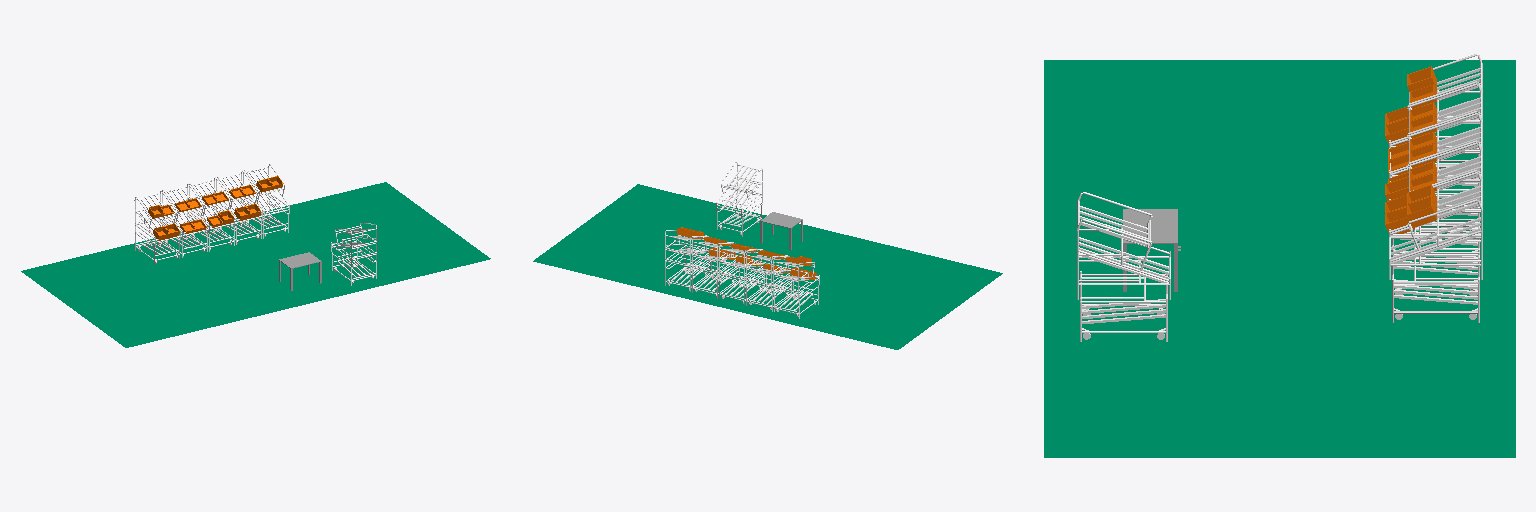
--- What the picture shows (computed from the rendered views, not written in the file) ---
3 views of the same robot in one strip: view 1: azimuth 30°, elevation 25°; view 2: azimuth 150°, elevation 25°; view 3: azimuth 270°, elevation 25° (orthographic).
Model nedo3_demo with 282 links and 281 joints (12 revolute, 269 fixed), rooted at world, posed all joints at 0.
Visible links, largest first — view 1: demo_floor_link, rack_t5, rack_t4, rack_t0; view 2: demo_floor_link, rack_t5, rack_t0; view 3: demo_floor_link, rack_t5, rack_t4, rack_b4, rack_b5, arm_table_top, rack_t3, rack_t1, rack_t2, rack_t0, rack_b3.
Link boxes in pixels (box(x1,y1,x2,y2)): demo_floor_link: box(21, 182, 490, 347); rack_t5: box(331, 223, 376, 266); rack_t4: box(243, 164, 289, 219); rack_t0: box(134, 190, 180, 246); demo_floor_link: box(533, 184, 1002, 349); rack_t5: box(716, 162, 762, 217); rack_t0: box(773, 256, 819, 299); demo_floor_link: box(1044, 60, 1515, 457); rack_t5: box(1077, 192, 1170, 299); rack_t4: box(1389, 172, 1482, 279); rack_b4: box(1392, 252, 1479, 322); rack_b5: box(1080, 271, 1167, 341); arm_table_top: box(1123, 209, 1177, 243); rack_t3: box(1389, 142, 1482, 235); rack_t1: box(1389, 83, 1482, 176); rack_t2: box(1389, 113, 1482, 200); rack_t0: box(1389, 54, 1482, 147); rack_b3: box(1392, 222, 1479, 289).
Bounding box of the posed robot: 12 × 6 × 1.73 m (x, y, z).
Meshes: 15 distinct files referenced, 12 mesh visuals loaded (2 binary STL); not drawn: 17 (reference not matched to a file when rendering).

URDF robot description (nedo3_demo):
<?xml version="1.0" ?>
<!-- =================================================================================== -->
<!-- |    This document was autogenerated by xacro from /root/noetic/catkin_ws/src/nedo3_demo/nedo3_description/urdf/nedo3_demo.urdf.xacro | -->
<!-- |    EDITING THIS FILE BY HAND IS NOT RECOMMENDED                                 | -->
<!-- =================================================================================== -->
<robot name="nedo3_demo">
    <!-- Root frame -->
    <link name="world" />
    <!-- Main workspace -->
    <link name="ground" />
    <joint name="world_ground_joint" type="fixed">
        <parent link="world" />
        <child link="ground" />
        <origin rpy="0 0 0" xyz="-4 0 0" />
    </joint>
    <joint name="demo_floor_joint" type="fixed">
        <parent link="world" />
        <child link="demo_floor_link" />
        <origin rpy="0 0 0" xyz="0 0 -0.001" />
    </joint>
    <link name="demo_floor_link">
        <visual>
            <origin rpy="0 0 0" xyz="0 0 0.0" />
            <geometry>
                <box size="12.0 6.0 0" />
            </geometry>
            <material name="demo_floor">
                <texture filename="package://nedo3_description/media/materials/textures/demo_floor.png" />
            </material>
        </visual>
        <collision>
            <origin rpy="0 0 0" xyz="0 0 0.0" />
            <geometry>
                <box size="12.0 6.0 0" />
            </geometry>
        </collision>
        <!-- <inertial> -->
        <!-- 	<mass value="1.0"/> -->
        <!-- 	<inertia ixx="1.0" ixy="0.0" ixz="0.0" iyy="1.0" iyz="0.0" izz="1.0"/> -->
        <!-- </inertial> -->
        <inertial>
            <mass value="0.1" />
            <origin xyz="0 0 0" rpy="0 0 0" />
            <inertia ixx="0.03" iyy="0.03" izz="0.03" ixy="0.0" ixz="0.0" iyz="0.0" />
        </inertial>
    </link>
    <!-- For Gazebo, material of AR marker is defined in -->
    <!--      aist_gazebo/media/material. You also need to export -->
    <!--      gazebo_media_path in package.xml. -->
    <!-- <gazebo reference="floor_link"> -->
    <!--   <material>Showcase/floor</material> -->
    <!-- </gazebo> -->
    <link name="rack_b0">
        <visual>
            <origin rpy="0 0 0" xyz="0 0.050 0" />
            <geometry>
                <mesh filename="package://nedo3_description/meshes/visual/rack_b.stl" scale="0.001 0.001 0.001" />
            </geometry>
            <material name="white">
                <color rgba="1 1 1 1" />
            </material>
        </visual>
        <collision>
            <origin rpy="0 0 0" xyz="0 0.050 0" />
            <geometry>
                <mesh filename="package://nedo3_description/meshes/collision/rack_b.stl" scale="0.001 0.001 0.001" />
            </geometry>
        </collision>
        <!-- Required for Gazebo -->
        <inertial>
            <mass value="20.0" />
            <origin rpy="0 0 0" xyz="0.425 0.75 0.25" />
            <inertia ixx="0.0" ixy="0.0" ixz="0.0" iyy="0.0" iyz="0.0" izz="0.0" />
        </inertial>
    </link>
    <joint name="rack_b0_joint" type="fixed">
        <parent link="ground" />
        <child link="rack_b0" />
        <origin rpy="0 0 0" xyz="1.5 1.435 0" />
    </joint>
    <link name="rack_b0_lower" />
    <joint name="rack_b0_lower_joint" type="fixed">
        <parent link="rack_b0" />
        <child link="rack_b0_lower" />
        <origin rpy="-0.08726646259971647 0 0" xyz="0.020 0.020 0.294" />
    </joint>
    <gazebo reference="rack_b0">
        <material>Gazebo/White</material>
        <selfCollide>True</selfCollide>
        <plugin name="gazebo_ros_control" filename="libgazebo_ros_control.so">
            <robotNamespace>/</robotNamespace>
        </plugin>
    </gazebo>
    <link name="rack_t0">
        <visual>
            <origin rpy="0 0 0" xyz="0 0 0" />
            <geometry>
                <mesh filename="package://nedo3_description/meshes/visual/rack_t.stl" scale="0.001 0.001 0.001" />
            </geometry>
            <material name="white">
                <color rgba="1 1 1 1" />
            </material>
        </visual>
        <collision>
            <origin rpy="0 0 0" xyz="0 0 0" />
            <geometry>
                <mesh filename="package://nedo3_description/meshes/collision/rack_t.stl" scale="0.001 0.001 0.001" />
            </geometry>
        </collision>
        <!-- Required for Gazebo -->
        <inertial>
            <mass value="20.0" />
            <origin rpy="0 0 0" xyz="0.425 0.75 0.4" />
            <inertia ixx="0.0" ixy="0.0" ixz="0.0" iyy="0.0" iyz="0.0" izz="0.0" />
        </inertial>
    </link>
    <joint name="rack_t0_joint" type="fixed">
        <parent link="rack_b0" />
        <child link="rack_t0" />
        <origin rpy="0 0 0" xyz="0 -0.05 0.595" />
    </joint>
    <link name="rack_t0_lower" />
    <joint name="rack_t0_lower_joint" type="fixed">
        <parent link="rack_t0" />
        <child link="rack_t0_lower" />
        <origin rpy="0.3490658503988659 0 0" xyz="0.020 0.020 0.150" />
    </joint>
    <link name="rack_t0_upper" />
    <joint name="rack_t0_upper_joint" type="fixed">
        <parent link="rack_t0" />
        <child link="rack_t0_upper" />
        <origin rpy="0.3490658503988659 0 0" xyz="0.020 0.300 0.700" />
    </joint>
    <gazebo reference="rack_t0">
        <material>Gazebo/White</material>
        <selfCollide>True</selfCollide>
    </gazebo>
    <link name="rack_b1">
        <visual>
            <origin rpy="0 0 0" xyz="0 0.050 0" />
            <geometry>
                <mesh filename="package://nedo3_description/meshes/visual/rack_b.stl" scale="0.001 0.001 0.001" />
            </geometry>
            <material name="white">
                <color rgba="1 1 1 1" />
            </material>
        </visual>
        <collision>
            <origin rpy="0 0 0" xyz="0 0.050 0" />
            <geometry>
                <mesh filename="package://nedo3_description/meshes/collision/rack_b.stl" scale="0.001 0.001 0.001" />
            </geometry>
        </collision>
        <!-- Required for Gazebo -->
        <inertial>
            <mass value="20.0" />
            <origin rpy="0 0 0" xyz="0.425 0.75 0.25" />
            <inertia ixx="0.0" ixy="0.0" ixz="0.0" iyy="0.0" iyz="0.0" izz="0.0" />
        </inertial>
    </link>
    <joint name="rack_b1_joint" type="fixed">
        <parent link="rack_b0" />
        <child link="rack_b1" />
        <origin rpy="0 0 0" xyz="0.89 0 0" />
    </joint>
    <link name="rack_b1_lower" />
    <joint name="rack_b1_lower_joint" type="fixed">
        <parent link="rack_b1" />
        <child link="rack_b1_lower" />
        <origin rpy="-0.08726646259971647 0 0" xyz="0.020 0.020 0.294" />
    </joint>
    <gazebo reference="rack_b1">
        <material>Gazebo/White</material>
        <selfCollide>True</selfCollide>
    </gazebo>
    <link name="rack_t1">
        <visual>
            <origin rpy="0 0 0" xyz="0 0 0" />
            <geometry>
                <mesh filename="package://nedo3_description/meshes/visual/rack_t.stl" scale="0.001 0.001 0.001" />
            </geometry>
            <material name="white">
                <color rgba="1 1 1 1" />
            </material>
        </visual>
        <collision>
            <origin rpy="0 0 0" xyz="0 0 0" />
            <geometry>
                <mesh filename="package://nedo3_description/meshes/collision/rack_t.stl" scale="0.001 0.001 0.001" />
            </geometry>
        </collision>
        <!-- Required for Gazebo -->
        <inertial>
            <mass value="20.0" />
            <origin rpy="0 0 0" xyz="0.425 0.75 0.4" />
            <inertia ixx="0.0" ixy="0.0" ixz="0.0" iyy="0.0" iyz="0.0" izz="0.0" />
        </inertial>
    </link>
    <joint name="rack_t1_joint" type="fixed">
        <parent link="rack_b1" />
        <child link="rack_t1" />
        <origin rpy="0 0 0" xyz="0 -0.05 0.595" />
    </joint>
    <link name="rack_t1_lower" />
    <joint name="rack_t1_lower_joint" type="fixed">
        <parent link="rack_t1" />
        <child link="rack_t1_lower" />
        <origin rpy="0.3490658503988659 0 0" xyz="0.020 0.020 0.150" />
    </joint>
    <link name="rack_t1_upper" />
    <joint name="rack_t1_upper_joint" type="fixed">
        <parent link="rack_t1" />
        <child link="rack_t1_upper" />
        <origin rpy="0.3490658503988659 0 0" xyz="0.020 0.300 0.700" />
    </joint>
    <gazebo reference="rack_t1">
        <material>Gazebo/White</material>
        <selfCollide>True</selfCollide>
    </gazebo>
    <link name="rack_b2">
        <visual>
            <origin rpy="0 0 0" xyz="0 0.050 0" />
            <geometry>
                <mesh filename="package://nedo3_description/meshes/visual/rack_b.stl" scale="0.001 0.001 0.001" />
            </geometry>
            <material name="white">
                <color rgba="1 1 1 1" />
            </material>
        </visual>
        <collision>
            <origin rpy="0 0 0" xyz="0 0.050 0" />
            <geometry>
                <mesh filename="package://nedo3_description/meshes/collision/rack_b.stl" scale="0.001 0.001 0.001" />
            </geometry>
        </collision>
        <!-- Required for Gazebo -->
        <inertial>
            <mass value="20.0" />
            <origin rpy="0 0 0" xyz="0.425 0.75 0.25" />
            <inertia ixx="0.0" ixy="0.0" ixz="0.0" iyy="0.0" iyz="0.0" izz="0.0" />
        </inertial>
    </link>
    <joint name="rack_b2_joint" type="fixed">
        <parent link="rack_b1" />
        <child link="rack_b2" />
        <origin rpy="0 0 0" xyz="0.89 0 0" />
    </joint>
    <link name="rack_b2_lower" />
    <joint name="rack_b2_lower_joint" type="fixed">
        <parent link="rack_b2" />
        <child link="rack_b2_lower" />
        <origin rpy="-0.08726646259971647 0 0" xyz="0.020 0.020 0.294" />
    </joint>
    <gazebo reference="rack_b2">
        <material>Gazebo/White</material>
        <selfCollide>True</selfCollide>
    </gazebo>
    <link name="rack_t2">
        <visual>
            <origin rpy="0 0 0" xyz="0 0 0" />
            <geometry>
                <mesh filename="package://nedo3_description/meshes/visual/rack_t.stl" scale="0.001 0.001 0.001" />
            </geometry>
            <material name="white">
                <color rgba="1 1 1 1" />
            </material>
        </visual>
        <collision>
            <origin rpy="0 0 0" xyz="0 0 0" />
            <geometry>
                <mesh filename="package://nedo3_description/meshes/collision/rack_t.stl" scale="0.001 0.001 0.001" />
            </geometry>
        </collision>
        <!-- Required for Gazebo -->
        <inertial>
            <mass value="20.0" />
            <origin rpy="0 0 0" xyz="0.425 0.75 0.4" />
            <inertia ixx="0.0" ixy="0.0" ixz="0.0" iyy="0.0" iyz="0.0" izz="0.0" />
        </inertial>
    </link>
    <joint name="rack_t2_joint" type="fixed">
        <parent link="rack_b2" />
        <child link="rack_t2" />
        <origin rpy="0 0 0" xyz="0 -0.05 0.595" />
    </joint>
    <link name="rack_t2_lower" />
    <joint name="rack_t2_lower_joint" type="fixed">
        <parent link="rack_t2" />
        <child link="rack_t2_lower" />
        <origin rpy="0.3490658503988659 0 0" xyz="0.020 0.020 0.150" />
    </joint>
    <link name="rack_t2_upper" />
    <joint name="rack_t2_upper_joint" type="fixed">
        <parent link="rack_t2" />
        <child link="rack_t2_upper" />
        <origin rpy="0.3490658503988659 0 0" xyz="0.020 0.300 0.700" />
    </joint>
    <gazebo reference="rack_t2">
        <material>Gazebo/White</material>
        <selfCollide>True</selfCollide>
    </gazebo>
    <link name="rack_b3">
        <visual>
            <origin rpy="0 0 0" xyz="0 0.050 0" />
            <geometry>
                <mesh filename="package://nedo3_description/meshes/visual/rack_b.stl" scale="0.001 0.001 0.001" />
            </geometry>
            <material name="white">
                <color rgba="1 1 1 1" />
            </material>
        </visual>
        <collision>
            <origin rpy="0 0 0" xyz="0 0.050 0" />
            <geometry>
                <mesh filename="package://nedo3_description/meshes/collision/rack_b.stl" scale="0.001 0.001 0.001" />
            </geometry>
        </collision>
        <!-- Required for Gazebo -->
        <inertial>
            <mass value="20.0" />
            <origin rpy="0 0 0" xyz="0.425 0.75 0.25" />
            <inertia ixx="0.0" ixy="0.0" ixz="0.0" iyy="0.0" iyz="0.0" izz="0.0" />
        </inertial>
    </link>
    <joint name="rack_b3_joint" type="fixed">
        <parent link="rack_b2" />
        <child link="rack_b3" />
        <origin rpy="0 0 0" xyz="0.89 0 0" />
    </joint>
    <link name="rack_b3_lower" />
    <joint name="rack_b3_lower_joint" type="fixed">
        <parent link="rack_b3" />
        <child link="rack_b3_lower" />
        <origin rpy="-0.08726646259971647 0 0" xyz="0.020 0.020 0.294" />
    </joint>
    <gazebo reference="rack_b3">
        <material>Gazebo/White</material>
        <selfCollide>True</selfCollide>
    </gazebo>
    <link name="rack_t3">
        <visual>
            <origin rpy="0 0 0" xyz="0 0 0" />
            <geometry>
                <mesh filename="package://nedo3_description/meshes/visual/rack_t.stl" scale="0.001 0.001 0.001" />
            </geometry>
            <material name="white">
                <color rgba="1 1 1 1" />
            </material>
        </visual>
        <collision>
            <origin rpy="0 0 0" xyz="0 0 0" />
            <geometry>
                <mesh filename="package://nedo3_description/meshes/collision/rack_t.stl" scale="0.001 0.001 0.001" />
            </geometry>
        </collision>
        <!-- Required for Gazebo -->
        <inertial>
            <mass value="20.0" />
            <origin rpy="0 0 0" xyz="0.425 0.75 0.4" />
            <inertia ixx="0.0" ixy="0.0" ixz="0.0" iyy="0.0" iyz="0.0" izz="0.0" />
        </inertial>
    </link>
    <joint name="rack_t3_joint" type="fixed">
        <parent link="rack_b3" />
        <child link="rack_t3" />
        <origin rpy="0 0 0" xyz="0 -0.05 0.595" />
    </joint>
    <link name="rack_t3_lower" />
    <joint name="rack_t3_lower_joint" type="fixed">
        <parent link="rack_t3" />
        <child link="rack_t3_lower" />
        <origin rpy="0.3490658503988659 0 0" xyz="0.020 0.020 0.150" />
    </joint>
    <link name="rack_t3_upper" />
    <joint name="rack_t3_upper_joint" type="fixed">
        <parent link="rack_t3" />
        <child link="rack_t3_upper" />
        <origin rpy="0.3490658503988659 0 0" xyz="0.020 0.300 0.700" />
    </joint>
    <gazebo reference="rack_t3">
        <material>Gazebo/White</material>
        <selfCollide>True</selfCollide>
    </gazebo>
    <link name="rack_b4">
        <visual>
            <origin rpy="0 0 0" xyz="0 0.050 0" />
            <geometry>
                <mesh filename="package://nedo3_description/meshes/visual/rack_b.stl" scale="0.001 0.001 0.001" />
            </geometry>
            <material name="white">
                <color rgba="1 1 1 1" />
            </material>
        </visual>
        <collision>
            <origin rpy="0 0 0" xyz="0 0.050 0" />
            <geometry>
                <mesh filename="package://nedo3_description/meshes/collision/rack_b.stl" scale="0.001 0.001 0.001" />
            </geometry>
        </collision>
        <!-- Required for Gazebo -->
        <inertial>
            <mass value="20.0" />
            <origin rpy="0 0 0" xyz="0.425 0.75 0.25" />
            <inertia ixx="0.0" ixy="0.0" ixz="0.0" iyy="0.0" iyz="0.0" izz="0.0" />
        </inertial>
    </link>
    <joint name="rack_b4_joint" type="fixed">
        <parent link="rack_b3" />
        <child link="rack_b4" />
        <origin rpy="0 0 0" xyz="0.89 0 0" />
    </joint>
    <link name="rack_b4_lower" />
    <joint name="rack_b4_lower_joint" type="fixed">
        <parent link="rack_b4" />
        <child link="rack_b4_lower" />
        <origin rpy="-0.08726646259971647 0 0" xyz="0.020 0.020 0.294" />
    </joint>
    <gazebo reference="rack_b4">
        <material>Gazebo/White</material>
        <selfCollide>True</selfCollide>
    </gazebo>
    <link name="rack_t4">
        <visual>
            <origin rpy="0 0 0" xyz="0 0 0" />
            <geometry>
                <mesh filename="package://nedo3_description/meshes/visual/rack_t.stl" scale="0.001 0.001 0.001" />
            </geometry>
            <material name="white">
                <color rgba="1 1 1 1" />
            </material>
        </visual>
        <collision>
            <origin rpy="0 0 0" xyz="0 0 0" />
            <geometry>
                <mesh filename="package://nedo3_description/meshes/collision/rack_t.stl" scale="0.001 0.001 0.001" />
            </geometry>
        </collision>
        <!-- Required for Gazebo -->
        <inertial>
            <mass value="20.0" />
            <origin rpy="0 0 0" xyz="0.425 0.75 0.4" />
            <inertia ixx="0.0" ixy="0.0" ixz="0.0" iyy="0.0" iyz="0.0" izz="0.0" />
        </inertial>
    </link>
    <joint name="rack_t4_joint" type="fixed">
        <parent link="rack_b4" />
        <child link="rack_t4" />
        <origin rpy="0 0 0" xyz="0 -0.05 0.595" />
    </joint>
    <link name="rack_t4_lower" />
    <joint name="rack_t4_lower_joint" type="fixed">
        <parent link="rack_t4" />
        <child link="rack_t4_lower" />
        <origin rpy="0.3490658503988659 0 0" xyz="0.020 0.020 0.150" />
    </joint>
    <link name="rack_t4_upper" />
    <joint name="rack_t4_upper_joint" type="fixed">
        <parent link="rack_t4" />
        <child link="rack_t4_upper" />
        <origin rpy="0.3490658503988659 0 0" xyz="0.020 0.300 0.700" />
    </joint>
    <gazebo reference="rack_t4">
        <material>Gazebo/White</material>
        <selfCollide>True</selfCollide>
    </gazebo>
    <link name="rack_b5">
        <visual>
            <origin rpy="0 0 0" xyz="0 0.050 0" />
            <geometry>
                <mesh filename="package://nedo3_description/meshes/visual/rack_b.stl" scale="0.001 0.001 0.001" />
            </geometry>
            <material name="white">
                <color rgba="1 1 1 1" />
            </material>
        </visual>
        <collision>
            <origin rpy="0 0 0" xyz="0 0.050 0" />
            <geometry>
                <mesh filename="package://nedo3_description/meshes/collision/rack_b.stl" scale="0.001 0.001 0.001" />
            </geometry>
        </collision>
        <!-- Required for Gazebo -->
        <inertial>
            <mass value="20.0" />
            <origin rpy="0 0 0" xyz="0.425 0.75 0.25" />
            <inertia ixx="0.0" ixy="0.0" ixz="0.0" iyy="0.0" iyz="0.0" izz="0.0" />
        </inertial>
    </link>
    <joint name="rack_b5_joint" type="fixed">
        <parent link="ground" />
        <child link="rack_b5" />
        <origin rpy="0 0 3.141592653589793" xyz="6.5 -1.435 0" />
    </joint>
    <link name="rack_b5_lower" />
    <joint name="rack_b5_lower_joint" type="fixed">
        <parent link="rack_b5" />
        <child link="rack_b5_lower" />
        <origin rpy="-0.08726646259971647 0 0" xyz="0.020 0.020 0.294" />
    </joint>
    <gazebo reference="rack_b5">
        <material>Gazebo/White</material>
        <selfCollide>True</selfCollide>
    </gazebo>
    <link name="rack_t5">
        <visual>
            <origin rpy="0 0 0" xyz="0 0 0" />
            <geometry>
                <mesh filename="package://nedo3_description/meshes/visual/rack_t.stl" scale="0.001 0.001 0.001" />
            </geometry>
            <material name="white">
                <color rgba="1 1 1 1" />
            </material>
        </visual>
        <collision>
            <origin rpy="0 0 0" xyz="0 0 0" />
            <geometry>
                <mesh filename="package://nedo3_description/meshes/collision/rack_t.stl" scale="0.001 0.001 0.001" />
            </geometry>
        </collision>
        <!-- Required for Gazebo -->
        <inertial>
            <mass value="20.0" />
            <origin rpy="0 0 0" xyz="0.425 0.75 0.4" />
            <inertia ixx="0.0" ixy="0.0" ixz="0.0" iyy="0.0" iyz="0.0" izz="0.0" />
        </inertial>
    </link>
    <joint name="rack_t5_joint" type="fixed">
        <parent link="rack_b5" />
        <child link="rack_t5" />
        <origin rpy="0 0 0" xyz="0 -0.05 0.595" />
    </joint>
    <link name="rack_t5_lower" />
    <joint name="rack_t5_lower_joint" type="fixed">
        <parent link="rack_t5" />
        <child link="rack_t5_lower" />
        <origin rpy="0.3490658503988659 0 0" xyz="0.020 0.020 0.150" />
    </joint>
    <link name="rack_t5_upper" />
    <joint name="rack_t5_upper_joint" type="fixed">
        <parent link="rack_t5" />
        <child link="rack_t5_upper" />
        <origin rpy="0.3490658503988659 0 0" xyz="0.020 0.300 0.700" />
    </joint>
    <gazebo reference="rack_t5">
        <material>Gazebo/White</material>
        <selfCollide>True</selfCollide>
    </gazebo>
    <link name="box_20">
        <!-- w is in x, l is in y, h is in z -->
        <visual>
            <origin rpy="0 0 0" xyz="0.1675 0.1675 0.0065" />
            <geometry>
                <box size="0.335 0.335 0.013" />
            </geometry>
            <material name="orange">
                <color rgba="1 0.5088 0.0468 1" />
            </material>
        </visual>
        <collision>
            <origin rpy="0 0 0" xyz="0.1675 0.1675 0.0065" />
            <geometry>
                <box size="0.335 0.335 0.013" />
            </geometry>
        </collision>
        <!-- This is required for Gazebo. -->
        <inertial>
            <mass value="1.0" />
            <origin rpy="0 0 0" xyz="0.1675 0.335 0.0065" />
            <inertia ixx="0.0" ixy="0.0" ixz="0.0" iyy="0.0" iyz="0.0" izz="0.0" />
        </inertial>
    </link>
    <gazebo reference="box_20">
        <material>Gazebo/Orange</material>
    </gazebo>
    <joint name="box_20" type="fixed">
        <parent link="rack_t4_upper" />
        <child link="box_20" />
        <axis xyz="0 0 1" />
        <origin rpy="0 0 0" xyz="0.08499999999999996 0 0" />
    </joint>
    <link name="box_20_frontside">
        <!-- w is in x, l is in y, h is in z -->
        <visual>
            <origin rpy="0 0 0" xyz="0.1675 0.0085 0.091" />
            <geometry>
                <box size="0.335 0.017 0.182" />
            </geometry>
            <material name="orange">
                <color rgba="1 0.5088 0.0468 1" />
            </material>
        </visual>
        <collision>
            <origin rpy="0 0 0" xyz="0.1675 0.0085 0.091" />
            <geometry>
                <box size="0.335 0.017 0.182" />
            </geometry>
        </collision>
        <!-- This is required for Gazebo. -->
        <inertial>
            <mass value="1.0" />
            <origin rpy="0 0 0" xyz="0.1675 0.017 0.091" />
            <inertia ixx="0.0" ixy="0.0" ixz="0.0" iyy="0.0" iyz="0.0" izz="0.0" />
        </inertial>
    </link>
    <gazebo reference="box_20_frontside">
        <material>Gazebo/Orange</material>
    </gazebo>
    <joint name="box_20_frontside" type="fixed">
        <parent link="box_20" />
        <child link="box_20_frontside" />
        <axis xyz="0 0 1" />
        <origin rpy="0 0 0" xyz="0 0 0.013" />
    </joint>
    <link name="box_20_backside">
        <!-- w is in x, l is in y, h is in z -->
        <visual>
            <origin rpy="0 0 0" xyz="0.1675 0.0085 0.091" />
            <geometry>
                <box size="0.335 0.017 0.182" />
            </geometry>
            <material name="orange">
                <color rgba="1 0.5088 0.0468 1" />
            </material>
        </visual>
        <collision>
            <origin rpy="0 0 0" xyz="0.1675 0.0085 0.091" />
            <geometry>
                <box size="0.335 0.017 0.182" />
            </geometry>
        </collision>
        <!-- This is required for Gazebo. -->
        <inertial>
            <mass value="1.0" />
            <origin rpy="0 0 0" xyz="0.1675 0.017 0.091" />
            <inertia ixx="0.0" ixy="0.0" ixz="0.0" iyy="0.0" iyz="0.0" izz="0.0" />
        </inertial>
    </link>
    <gazebo reference="box_20_backside">
        <material>Gazebo/Orange</material>
    </gazebo>
    <joint name="box_20_backside" type="fixed">
        <parent link="box_20" />
        <child link="box_20_backside" />
        <axis xyz="0 0 1" />
        <origin rpy="0 0 0" xyz="0 0.318 0.013" />
    </joint>
    <link name="box_20_leftside">
        <!-- w is in x, l is in y, h is in z -->
        <visual>
            <origin rpy="0 0 0" xyz="0.0085 0.15050000000000002 0.091" />
            <geometry>
                <box size="0.017 0.30100000000000005 0.182" />
            </geometry>
            <material name="orange">
                <color rgba="1 0.5088 0.0468 1" />
            </material>
        </visual>
        <collision>
            <origin rpy="0 0 0" xyz="0.0085 0.15050000000000002 0.091" />
            <geometry>
                <box size="0.017 0.30100000000000005 0.182" />
            </geometry>
        </collision>
        <!-- This is required for Gazebo. -->
        <inertial>
            <mass value="1.0" />
            <origin rpy="0 0 0" xyz="0.0085 0.30100000000000005 0.091" />
            <inertia ixx="0.0" ixy="0.0" ixz="0.0" iyy="0.0" iyz="0.0" izz="0.0" />
        </inertial>
    </link>
    <gazebo reference="box_20_leftside">
        <material>Gazebo/Orange</material>
    </gazebo>
    <joint name="box_20_leftside" type="fixed">
        <parent link="box_20" />
        <child link="box_20_leftside" />
        <axis xyz="0 0 1" />
        <origin rpy="0 0 0" xyz="0 0.017  0.013" />
    </joint>
    <link name="box_20_rightside">
        <!-- w is in x, l is in y, h is in z -->
        <visual>
            <origin rpy="0 0 0" xyz="0.0085 0.15050000000000002 0.091" />
            <geometry>
                <box size="0.017 0.30100000000000005 0.182" />
            </geometry>
            <material name="orange">
                <color rgba="1 0.5088 0.0468 1" />
            </material>
        </visual>
        <collision>
            <origin rpy="0 0 0" xyz="0.0085 0.15050000000000002 0.091" />
            <geometry>
                <box size="0.017 0.30100000000000005 0.182" />
            </geometry>
        </collision>
        <!-- This is required for Gazebo. -->
        <inertial>
            <mass value="1.0" />
            <origin rpy="0 0 0" xyz="0.0085 0.30100000000000005 0.091" />
            <inertia ixx="0.0" ixy="0.0" ixz="0.0" iyy="0.0" iyz="0.0" izz="0.0" />
        </inertial>
    </link>
    <gazebo reference="box_20_rightside">
        <material>Gazebo/Orange</material>
    </gazebo>
    <joint name="box_20_rightside" type="fixed">
        <parent link="box_20" />
        <child link="box_20_rightside" />
        <axis xyz="0 0 1" />
        <origin rpy="0 0 0" xyz="0.318      0.017      0.013" />
    </joint>
    <link name="box_20_bottom" />
    <joint name="box_20_bottom_joint" type="fixed">
        <parent link="box_20" />
        <child link="box_20_bottom" />
        <origin rpy="0 0 0" xyz="0.017 0.017 0.013" />
    </joint>
    <link name="box_20_center_bottom" />
    <joint name="box_20_center_bottom_joint" type="fixed">
        <parent link="box_20" />
        <child link="box_20_center_bottom" />
        <origin rpy="0 0 0" xyz="0.1675 0.1675 0.013" />
    </joint>
    <link name="box_20_lower_left_top" />
    <joint name="box_20_lower_left_top_joint" type="fixed">
        <parent link="box_20" />
        <child link="box_20_lower_left_top" />
        <origin rpy="0 0 0" xyz="0 0 0.195" />
    </joint>
    <link name="box_20_lower_right_top" />
    <joint name="box_20_lower_right_top_joint" type="fixed">
        <parent link="box_20" />
        <child link="box_20_lower_right_top" />
        <origin rpy="0 0 0" xyz="0.335 0 0.195" />
    </joint>
    <link name="box_20_upper_left_top" />
    <joint name="box_20_upper_left_top_joint" type="fixed">
        <parent link="box_20" />
        <child link="box_20_upper_left_top" />
        <origin rpy="0 0 0" xyz="0 0.335 0.195" />
    </joint>
    <link name="box_20_upper_right_top" />
    <joint name="box_20_upper_right_top_joint" type="fixed">
        <parent link="box_20" />
        <child link="box_20_upper_right_top" />
        <origin rpy="0 0 0" xyz="0.335 0.335 0.195" />
    </joint>
    <link name="box_20_center_top" />
    <joint name="box_20_center_top_joint" type="fixed">
        <parent link="box_20" />
        <child link="box_20_center_top" />
        <origin rpy="0 0 0" xyz="0.1675 0.1675 0.225" />
    </joint>
    <link name="box_21">
        <!-- w is in x, l is in y, h is in z -->
        <visual>
            <origin rpy="0 0 0" xyz="0.1675 0.1675 0.0065" />
            <geometry>
                <box size="0.335 0.335 0.013" />
            </geometry>
            <material name="orange">
                <color rgba="1 0.5088 0.0468 1" />
            </material>
        </visual>
        <collision>
            <origin rpy="0 0 0" xyz="0.1675 0.1675 0.0065" />
            <geometry>
                <box size="0.335 0.335 0.013" />
            </geometry>
        </collision>
        <!-- This is required for Gazebo. -->
        <inertial>
            <mass value="1.0" />
            <origin rpy="0 0 0" xyz="0.1675 0.335 0.0065" />
            <inertia ixx="0.0" ixy="0.0" ixz="0.0" iyy="0.0" iyz="0.0" izz="0.0" />
        </inertial>
    </link>
    <gazebo reference="box_21">
        <material>Gazebo/Orange</material>
    </gazebo>
    <joint name="box_21" type="fixed">
        <parent link="rack_t4_upper" />
        <child link="box_21" />
        <axis xyz="0 0 1" />
        <origin rpy="0 0 0" xyz="0.43 0 0" />
    </joint>
    <link name="box_21_frontside">
        <!-- w is in x, l is in y, h is in z -->
        <visual>
            <origin rpy="0 0 0" xyz="0.1675 0.0085 0.091" />
            <geometry>
                <box size="0.335 0.017 0.182" />
            </geometry>
            <material name="orange">
                <color rgba="1 0.5088 0.0468 1" />
            </material>
        </visual>
        <collision>
            <origin rpy="0 0 0" xyz="0.1675 0.0085 0.091" />
            <geometry>
                <box size="0.335 0.017 0.182" />
            </geometry>
        </collision>
        <!-- This is required for Gazebo. -->
        <inertial>
            <mass value="1.0" />
            <origin rpy="0 0 0" xyz="0.1675 0.017 0.091" />
            <inertia ixx="0.0" ixy="0.0" ixz="0.0" iyy="0.0" iyz="0.0" izz="0.0" />
        </inertial>
    </link>
    <gazebo reference="box_21_frontside">
        <material>Gazebo/Orange</material>
    </gazebo>
    <joint name="box_21_frontside" type="fixed">
        <parent link="box_21" />
        <child link="box_21_frontside" />
        <axis xyz="0 0 1" />
        <origin rpy="0 0 0" xyz="0 0 0.013" />
    </joint>
    <link name="box_21_backside">
        <!-- w is in x, l is in y, h is in z -->
        <visual>
            <origin rpy="0 0 0" xyz="0.1675 0.0085 0.091" />
            <geometry>
                <box size="0.335 0.017 0.182" />
            </geometry>
            <material name="orange">
                <color rgba="1 0.5088 0.0468 1" />
            </material>
        </visual>
        <collision>
            <origin rpy="0 0 0" xyz="0.1675 0.0085 0.091" />
            <geometry>
                <box size="0.335 0.017 0.182" />
            </geometry>
        </collision>
        <!-- This is required for Gazebo. -->
        <inertial>
            <mass value="1.0" />
            <origin rpy="0 0 0" xyz="0.1675 0.017 0.091" />
            <inertia ixx="0.0" ixy="0.0" ixz="0.0" iyy="0.0" iyz="0.0" izz="0.0" />
        </inertial>
    </link>
    <gazebo reference="box_21_backside">
        <material>Gazebo/Orange</material>
    </gazebo>
    <joint name="box_21_backside" type="fixed">
        <parent link="box_21" />
        <child link="box_21_backside" />
        <axis xyz="0 0 1" />
        <origin rpy="0 0 0" xyz="0 0.318 0.013" />
    </joint>
    <link name="box_21_leftside">
        <!-- w is in x, l is in y, h is in z -->
        <visual>
            <origin rpy="0 0 0" xyz="0.0085 0.15050000000000002 0.091" />
            <geometry>
                <box size="0.017 0.30100000000000005 0.182" />
            </geometry>
            <material name="orange">
                <color rgba="1 0.5088 0.0468 1" />
            </material>
        </visual>
        <collision>
            <origin rpy="0 0 0" xyz="0.0085 0.15050000000000002 0.091" />
            <geometry>
                <box size="0.017 0.30100000000000005 0.182" />
            </geometry>
        </collision>
        <!-- This is required for Gazebo. -->
        <inertial>
            <mass value="1.0" />
            <origin rpy="0 0 0" xyz="0.0085 0.30100000000000005 0.091" />
            <inertia ixx="0.0" ixy="0.0" ixz="0.0" iyy="0.0" iyz="0.0" izz="0.0" />
        </inertial>
    </link>
    <gazebo reference="box_21_leftside">
        <material>Gazebo/Orange</material>
    </gazebo>
    <joint name="box_21_leftside" type="fixed">
        <parent link="box_21" />
        <child link="box_21_leftside" />
        <axis xyz="0 0 1" />
        <origin rpy="0 0 0" xyz="0 0.017  0.013" />
    </joint>
    <link name="box_21_rightside">
        <!-- w is in x, l is in y, h is in z -->
        <visual>
            <origin rpy="0 0 0" xyz="0.0085 0.15050000000000002 0.091" />
            <geometry>
                <box size="0.017 0.30100000000000005 0.182" />
            </geometry>
            <material name="orange">
                <color rgba="1 0.5088 0.0468 1" />
            </material>
        </visual>
        <collision>
            <origin rpy="0 0 0" xyz="0.0085 0.15050000000000002 0.091" />
            <geometry>
                <box size="0.017 0.30100000000000005 0.182" />
            </geometry>
        </collision>
        <!-- This is required for Gazebo. -->
        <inertial>
            <mass value="1.0" />
            <origin rpy="0 0 0" xyz="0.0085 0.30100000000000005 0.091" />
            <inertia ixx="0.0" ixy="0.0" ixz="0.0" iyy="0.0" iyz="0.0" izz="0.0" />
        </inertial>
    </link>
    <gazebo reference="box_21_rightside">
        <material>Gazebo/Orange</material>
    </gazebo>
    <joint name="box_21_rightside" type="fixed">
        <parent link="box_21" />
        <child link="box_21_rightside" />
        <axis xyz="0 0 1" />
        <origin rpy="0 0 0" xyz="0.318      0.017      0.013" />
    </joint>
    <link name="box_21_bottom" />
    <joint name="box_21_bottom_joint" type="fixed">
        <parent link="box_21" />
        <child link="box_21_bottom" />
        <origin rpy="0 0 0" xyz="0.017 0.017 0.013" />
    </joint>
    <link name="box_21_center_bottom" />
    <joint name="box_21_center_bottom_joint" type="fixed">
        <parent link="box_21" />
        <child link="box_21_center_bottom" />
        <origin rpy="0 0 0" xyz="0.1675 0.1675 0.013" />
    </joint>
    <link name="box_21_lower_left_top" />
    <joint name="box_21_lower_left_top_joint" type="fixed">
        <parent link="box_21" />
        <child link="box_21_lower_left_top" />
        <origin rpy="0 0 0" xyz="0 0 0.195" />
    </joint>
    <link name="box_21_lower_right_top" />
    <joint name="box_21_lower_right_top_joint" type="fixed">
        <parent link="box_21" />
        <child link="box_21_lower_right_top" />
        <origin rpy="0 0 0" xyz="0.335 0 0.195" />
    </joint>
    <link name="box_21_upper_left_top" />
    <joint name="box_21_upper_left_top_joint" type="fixed">
        <parent link="box_21" />
        <child link="box_21_upper_left_top" />
        <origin rpy="0 0 0" xyz="0 0.335 0.195" />
    </joint>
    <link name="box_21_upper_right_top" />
    <joint name="box_21_upper_right_top_joint" type="fixed">
        <parent link="box_21" />
        <child link="box_21_upper_right_top" />
        <origin rpy="0 0 0" xyz="0.335 0.335 0.195" />
    </joint>
    <link name="box_21_center_top" />
    <joint name="box_21_center_top_joint" type="fixed">
        <parent link="box_21" />
        <child link="box_21_center_top" />
        <origin rpy="0 0 0" xyz="0.1675 0.1675 0.225" />
    </joint>
    <link name="box_18">
        <!-- w is in x, l is in y, h is in z -->
        <visual>
            <origin rpy="0 0 0" xyz="0.1675 0.1675 0.0065" />
            <geometry>
                <box size="0.335 0.335 0.013" />
            </geometry>
            <material name="orange">
                <color rgba="1 0.5088 0.0468 1" />
            </material>
        </visual>
        <collision>
            <origin rpy="0 0 0" xyz="0.1675 0.1675 0.0065" />
            <geometry>
                <box size="0.335 0.335 0.013" />
            </geometry>
        </collision>
        <!-- This is required for Gazebo. -->
        <inertial>
            <mass value="1.0" />
            <origin rpy="0 0 0" xyz="0.1675 0.335 0.0065" />
            <inertia ixx="0.0" ixy="0.0" ixz="0.0" iyy="0.0" iyz="0.0" izz="0.0" />
        </inertial>
    </link>
    <gazebo reference="box_18">
        <material>Gazebo/Orange</material>
    </gazebo>
    <joint name="box_18" type="fixed">
        <parent link="rack_t3_upper" />
        <child link="box_18" />
        <axis xyz="0 0 1" />
        <origin rpy="0 0 0" xyz="0.08499999999999996 0 0" />
    </joint>
    <link name="box_18_frontside">
        <!-- w is in x, l is in y, h is in z -->
        <visual>
            <origin rpy="0 0 0" xyz="0.1675 0.0085 0.045" />
            <geometry>
                <box size="0.335 0.017 0.09" />
            </geometry>
            <material name="orange">
                <color rgba="1 0.5088 0.0468 1" />
            </material>
        </visual>
        <collision>
            <origin rpy="0 0 0" xyz="0.1675 0.0085 0.045" />
            <geometry>
                <box size="0.335 0.017 0.09" />
            </geometry>
        </collision>
        <!-- This is required for Gazebo. -->
        <inertial>
            <mass value="1.0" />
            <origin rpy="0 0 0" xyz="0.1675 0.017 0.045" />
            <inertia ixx="0.0" ixy="0.0" ixz="0.0" iyy="0.0" iyz="0.0" izz="0.0" />
        </inertial>
    </link>
    <gazebo reference="box_18_frontside">
        <material>Gazebo/Orange</material>
    </gazebo>
    <joint name="box_18_frontside" type="fixed">
        <parent link="box_18" />
        <child link="box_18_frontside" />
        <axis xyz="0 0 1" />
        <origin rpy="0 0 0" xyz="0 0 0.013" />
    </joint>
    <link name="box_18_backside">
        <!-- w is in x, l is in y, h is in z -->
        <visual>
            <origin rpy="0 0 0" xyz="0.1675 0.0085 0.045" />
            <geometry>
                <box size="0.335 0.017 0.09" />
            </geometry>
            <material name="orange">
                <color rgba="1 0.5088 0.0468 1" />
            </material>
        </visual>
        <collision>
            <origin rpy="0 0 0" xyz="0.1675 0.0085 0.045" />
            <geometry>
                <box size="0.335 0.017 0.09" />
            </geometry>
        </collision>
        <!-- This is required for Gazebo. -->
        <inertial>
            <mass value="1.0" />
            <origin rpy="0 0 0" xyz="0.1675 0.017 0.045" />
            <inertia ixx="0.0" ixy="0.0" ixz="0.0" iyy="0.0" iyz="0.0" izz="0.0" />
        </inertial>
    </link>
    <gazebo reference="box_18_backside">
        <material>Gazebo/Orange</material>
    </gazebo>
    <joint name="box_18_backside" type="fixed">
        <parent link="box_18" />
        <child link="box_18_backside" />
        <axis xyz="0 0 1" />
        <origin rpy="0 0 0" xyz="0 0.318 0.013" />
    </joint>
    <link name="box_18_leftside">
        <!-- w is in x, l is in y, h is in z -->
        <visual>
            <origin rpy="0 0 0" xyz="0.0085 0.15050000000000002 0.045" />
            <geometry>
                <box size="0.017 0.30100000000000005 0.09" />
            </geometry>
            <material name="orange">
                <color rgba="1 0.5088 0.0468 1" />
            </material>
        </visual>
        <collision>
            <origin rpy="0 0 0" xyz="0.0085 0.15050000000000002 0.045" />
            <geometry>
                <box size="0.017 0.30100000000000005 0.09" />
            </geometry>
        </collision>
        <!-- This is required for Gazebo. -->
        <inertial>
            <mass value="1.0" />
            <origin rpy="0 0 0" xyz="0.0085 0.30100000000000005 0.045" />
            <inertia ixx="0.0" ixy="0.0" ixz="0.0" iyy="0.0" iyz="0.0" izz="0.0" />
        </inertial>
    </link>
    <gazebo reference="box_18_leftside">
        <material>Gazebo/Orange</material>
    </gazebo>
    <joint name="box_18_leftside" type="fixed">
        <parent link="box_18" />
        <child link="box_18_leftside" />
        <axis xyz="0 0 1" />
        <origin rpy="0 0 0" xyz="0 0.017  0.013" />
    </joint>
    <link name="box_18_rightside">
        <!-- w is in x, l is in y, h is in z -->
        <visual>
            <origin rpy="0 0 0" xyz="0.0085 0.15050000000000002 0.045" />
            <geometry>
                <box size="0.017 0.30100000000000005 0.09" />
            </geometry>
            <material name="orange">
                <color rgba="1 0.5088 0.0468 1" />
            </material>
        </visual>
        <collision>
            <origin rpy="0 0 0" xyz="0.0085 0.15050000000000002 0.045" />
            <geometry>
                <box size="0.017 0.30100000000000005 0.09" />
            </geometry>
        </collision>
        <!-- This is required for Gazebo. -->
        <inertial>
            <mass value="1.0" />
            <origin rpy="0 0 0" xyz="0.0085 0.30100000000000005 0.045" />
            <inertia ixx="0.0" ixy="0.0" ixz="0.0" iyy="0.0" iyz="0.0" izz="0.0" />
        </inertial>
    </link>
    <gazebo reference="box_18_rightside">
        <material>Gazebo/Orange</material>
    </gazebo>
    <joint name="box_18_rightside" type="fixed">
        <parent link="box_18" />
        <child link="box_18_rightside" />
        <axis xyz="0 0 1" />
        <origin rpy="0 0 0" xyz="0.318      0.017      0.013" />
    </joint>
    <link name="box_18_bottom" />
    <joint name="box_18_bottom_joint" type="fixed">
        <parent link="box_18" />
        <child link="box_18_bottom" />
        <origin rpy="0 0 0" xyz="0.017 0.017 0.013" />
    </joint>
    <link name="box_18_center_bottom" />
    <joint name="box_18_center_bottom_joint" type="fixed">
        <parent link="box_18" />
        <child link="box_18_center_bottom" />
        <origin rpy="0 0 0" xyz="0.1675 0.1675 0.013" />
    </joint>
    <link name="box_18_lower_left_top" />
    <joint name="box_18_lower_left_top_joint" type="fixed">
        <parent link="box_18" />
        <child link="box_18_lower_left_top" />
        <origin rpy="0 0 0" xyz="0 0 0.103" />
    </joint>
    <link name="box_18_lower_right_top" />
    <joint name="box_18_lower_right_top_joint" type="fixed">
        <parent link="box_18" />
        <child link="box_18_lower_right_top" />
        <origin rpy="0 0 0" xyz="0.335 0 0.103" />
    </joint>
    <link name="box_18_upper_left_top" />
    <joint name="box_18_upper_left_top_joint" type="fixed">
        <parent link="box_18" />
        <child link="box_18_upper_left_top" />
        <origin rpy="0 0 0" xyz="0 0.335 0.103" />
    </joint>
    <link name="box_18_upper_right_top" />
    <joint name="box_18_upper_right_top_joint" type="fixed">
        <parent link="box_18" />
        <child link="box_18_upper_right_top" />
        <origin rpy="0 0 0" xyz="0.335 0.335 0.103" />
    </joint>
    <link name="box_18_center_top" />
    <joint name="box_18_center_top_joint" type="fixed">
        <parent link="box_18" />
        <child link="box_18_center_top" />
        <origin rpy="0 0 0" xyz="0.1675 0.1675 0.133" />
    </joint>
    <link name="box_19">
        <!-- w is in x, l is in y, h is in z -->
        <visual>
            <origin rpy="0 0 0" xyz="0.1675 0.1675 0.0065" />
            <geometry>
                <box size="0.335 0.335 0.013" />
            </geometry>
            <material name="orange">
                <color rgba="1 0.5088 0.0468 1" />
            </material>
        </visual>
        <collision>
            <origin rpy="0 0 0" xyz="0.1675 0.1675 0.0065" />
            <geometry>
                <box size="0.335 0.335 0.013" />
            </geometry>
        </collision>
        <!-- This is required for Gazebo. -->
        <inertial>
            <mass value="1.0" />
            <origin rpy="0 0 0" xyz="0.1675 0.335 0.0065" />
            <inertia ixx="0.0" ixy="0.0" ixz="0.0" iyy="0.0" iyz="0.0" izz="0.0" />
        </inertial>
    </link>
    <gazebo reference="box_19">
        <material>Gazebo/Orange</material>
    </gazebo>
    <joint name="box_19" type="fixed">
        <parent link="rack_t3_upper" />
        <child link="box_19" />
        <axis xyz="0 0 1" />
        <origin rpy="0 0 0" xyz="0.43 0 0" />
    </joint>
    <link name="box_19_frontside">
        <!-- w is in x, l is in y, h is in z -->
        <visual>
            <origin rpy="0 0 0" xyz="0.1675 0.0085 0.045" />
            <geometry>
                <box size="0.335 0.017 0.09" />
            </geometry>
            <material name="orange">
                <color rgba="1 0.5088 0.0468 1" />
            </material>
        </visual>
        <collision>
            <origin rpy="0 0 0" xyz="0.1675 0.0085 0.045" />
            <geometry>
                <box size="0.335 0.017 0.09" />
            </geometry>
        </collision>
        <!-- This is required for Gazebo. -->
        <inertial>
            <mass value="1.0" />
            <origin rpy="0 0 0" xyz="0.1675 0.017 0.045" />
            <inertia ixx="0.0" ixy="0.0" ixz="0.0" iyy="0.0" iyz="0.0" izz="0.0" />
        </inertial>
    </link>
    <gazebo reference="box_19_frontside">
        <material>Gazebo/Orange</material>
    </gazebo>
    <joint name="box_19_frontside" type="fixed">
        <parent link="box_19" />
        <child link="box_19_frontside" />
        <axis xyz="0 0 1" />
        <origin rpy="0 0 0" xyz="0 0 0.013" />
    </joint>
    <link name="box_19_backside">
        <!-- w is in x, l is in y, h is in z -->
        <visual>
            <origin rpy="0 0 0" xyz="0.1675 0.0085 0.045" />
            <geometry>
                <box size="0.335 0.017 0.09" />
            </geometry>
            <material name="orange">
                <color rgba="1 0.5088 0.0468 1" />
            </material>
        </visual>
        <collision>
            <origin rpy="0 0 0" xyz="0.1675 0.0085 0.045" />
            <geometry>
                <box size="0.335 0.017 0.09" />
            </geometry>
        </collision>
        <!-- This is required for Gazebo. -->
        <inertial>
            <mass value="1.0" />
            <origin rpy="0 0 0" xyz="0.1675 0.017 0.045" />
            <inertia ixx="0.0" ixy="0.0" ixz="0.0" iyy="0.0" iyz="0.0" izz="0.0" />
        </inertial>
    </link>
    <gazebo reference="box_19_backside">
        <material>Gazebo/Orange</material>
    </gazebo>
    <joint name="box_19_backside" type="fixed">
        <parent link="box_19" />
        <child link="box_19_backside" />
        <axis xyz="0 0 1" />
        <origin rpy="0 0 0" xyz="0 0.318 0.013" />
    </joint>
    <link name="box_19_leftside">
        <!-- w is in x, l is in y, h is in z -->
        <visual>
            <origin rpy="0 0 0" xyz="0.0085 0.15050000000000002 0.045" />
            <geometry>
                <box size="0.017 0.30100000000000005 0.09" />
            </geometry>
            <material name="orange">
                <color rgba="1 0.5088 0.0468 1" />
            </material>
        </visual>
        <collision>
            <origin rpy="0 0 0" xyz="0.0085 0.15050000000000002 0.045" />
            <geometry>
                <box size="0.017 0.30100000000000005 0.09" />
            </geometry>
        </collision>
        <!-- This is required for Gazebo. -->
        <inertial>
            <mass value="1.0" />
            <origin rpy="0 0 0" xyz="0.0085 0.30100000000000005 0.045" />
            <inertia ixx="0.0" ixy="0.0" ixz="0.0" iyy="0.0" iyz="0.0" izz="0.0" />
        </inertial>
    </link>
    <gazebo reference="box_19_leftside">
        <material>Gazebo/Orange</material>
    </gazebo>
    <joint name="box_19_leftside" type="fixed">
        <parent link="box_19" />
        <child link="box_19_leftside" />
        <axis xyz="0 0 1" />
        <origin rpy="0 0 0" xyz="0 0.017  0.013" />
    </joint>
    <link name="box_19_rightside">
        <!-- w is in x, l is in y, h is in z -->
        <visual>
            <origin rpy="0 0 0" xyz="0.0085 0.15050000000000002 0.045" />
            <geometry>
                <box size="0.017 0.30100000000000005 0.09" />
            </geometry>
            <material name="orange">
                <color rgba="1 0.5088 0.0468 1" />
            </material>
        </visual>
        <collision>
            <origin rpy="0 0 0" xyz="0.0085 0.15050000000000002 0.045" />
            <geometry>
                <box size="0.017 0.30100000000000005 0.09" />
            </geometry>
        </collision>
        <!-- This is required for Gazebo. -->
        <inertial>
            <mass value="1.0" />
            <origin rpy="0 0 0" xyz="0.0085 0.30100000000000005 0.045" />
            <inertia ixx="0.0" ixy="0.0" ixz="0.0" iyy="0.0" iyz="0.0" izz="0.0" />
        </inertial>
    </link>
    <gazebo reference="box_19_rightside">
        <material>Gazebo/Orange</material>
    </gazebo>
    <joint name="box_19_rightside" type="fixed">
        <parent link="box_19" />
        <child link="box_19_rightside" />
        <axis xyz="0 0 1" />
        <origin rpy="0 0 0" xyz="0.318      0.017      0.013" />
    </joint>
    <link name="box_19_bottom" />
    <joint name="box_19_bottom_joint" type="fixed">
        <parent link="box_19" />
        <child link="box_19_bottom" />
        <origin rpy="0 0 0" xyz="0.017 0.017 0.013" />
    </joint>
    <link name="box_19_center_bottom" />
    <joint name="box_19_center_bottom_joint" type="fixed">
        <parent link="box_19" />
        <child link="box_19_center_bottom" />
        <origin rpy="0 0 0" xyz="0.1675 0.1675 0.013" />
    </joint>
    <link name="box_19_lower_left_top" />
    <joint name="box_19_lower_left_top_joint" type="fixed">
        <parent link="box_19" />
        <child link="box_19_lower_left_top" />
        <origin rpy="0 0 0" xyz="0 0 0.103" />
    </joint>
    <link name="box_19_lower_right_top" />
    <joint name="box_19_lower_right_top_joint" type="fixed">
        <parent link="box_19" />
        <child link="box_19_lower_right_top" />
        <origin rpy="0 0 0" xyz="0.335 0 0.103" />
    </joint>
    <link name="box_19_upper_left_top" />
    <joint name="box_19_upper_left_top_joint" type="fixed">
        <parent link="box_19" />
        <child link="box_19_upper_left_top" />
        <origin rpy="0 0 0" xyz="0 0.335 0.103" />
    </joint>
    <link name="box_19_upper_right_top" />
    <joint name="box_19_upper_right_top_joint" type="fixed">
        <parent link="box_19" />
        <child link="box_19_upper_right_top" />
        <origin rpy="0 0 0" xyz="0.335 0.335 0.103" />
    </joint>
    <link name="box_19_center_top" />
    <joint name="box_19_center_top_joint" type="fixed">
        <parent link="box_19" />
        <child link="box_19_center_top" />
        <origin rpy="0 0 0" xyz="0.1675 0.1675 0.133" />
    </joint>
    <link name="box_23">
        <!-- w is in x, l is in y, h is in z -->
        <visual>
            <origin rpy="0 0 0" xyz="0.1675 0.1675 0.0065" />
            <geometry>
                <box size="0.335 0.335 0.013" />
            </geometry>
            <material name="orange">
                <color rgba="1 0.5088 0.0468 1" />
            </material>
        </visual>
        <collision>
            <origin rpy="0 0 0" xyz="0.1675 0.1675 0.0065" />
            <geometry>
                <box size="0.335 0.335 0.013" />
            </geometry>
        </collision>
        <!-- This is required for Gazebo. -->
        <inertial>
            <mass value="1.0" />
            <origin rpy="0 0 0" xyz="0.1675 0.335 0.0065" />
            <inertia ixx="0.0" ixy="0.0" ixz="0.0" iyy="0.0" iyz="0.0" izz="0.0" />
        </inertial>
    </link>
    <gazebo reference="box_23">
        <material>Gazebo/Orange</material>
    </gazebo>
    <joint name="box_23" type="fixed">
        <parent link="rack_t3_lower" />
        <child link="box_23" />
        <axis xyz="0 0 1" />
        <origin rpy="0 0 0" xyz="0.08499999999999996 0 0" />
    </joint>
    <link name="box_23_frontside">
        <!-- w is in x, l is in y, h is in z -->
        <visual>
            <origin rpy="0 0 0" xyz="0.1675 0.0085 0.091" />
            <geometry>
                <box size="0.335 0.017 0.182" />
            </geometry>
            <material name="orange">
                <color rgba="1 0.5088 0.0468 1" />
            </material>
        </visual>
        <collision>
            <origin rpy="0 0 0" xyz="0.1675 0.0085 0.091" />
            <geometry>
                <box size="0.335 0.017 0.182" />
            </geometry>
        </collision>
        <!-- This is required for Gazebo. -->
        <inertial>
            <mass value="1.0" />
            <origin rpy="0 0 0" xyz="0.1675 0.017 0.091" />
            <inertia ixx="0.0" ixy="0.0" ixz="0.0" iyy="0.0" iyz="0.0" izz="0.0" />
        </inertial>
    </link>
    <gazebo reference="box_23_frontside">
        <material>Gazebo/Orange</material>
    </gazebo>
    <joint name="box_23_frontside" type="fixed">
        <parent link="box_23" />
        <child link="box_23_frontside" />
        <axis xyz="0 0 1" />
        <origin rpy="0 0 0" xyz="0 0 0.013" />
    </joint>
    <link name="box_23_backside">
        <!-- w is in x, l is in y, h is in z -->
        <visual>
            <origin rpy="0 0 0" xyz="0.1675 0.0085 0.091" />
            <geometry>
                <box size="0.335 0.017 0.182" />
            </geometry>
            <material name="orange">
                <color rgba="1 0.5088 0.0468 1" />
            </material>
        </visual>
        <collision>
            <origin rpy="0 0 0" xyz="0.1675 0.0085 0.091" />
            <geometry>
                <box size="0.335 0.017 0.182" />
            </geometry>
        </collision>
        <!-- This is required for Gazebo. -->
        <inertial>
            <mass value="1.0" />
            <origin rpy="0 0 0" xyz="0.1675 0.017 0.091" />
            <inertia ixx="0.0" ixy="0.0" ixz="0.0" iyy="0.0" iyz="0.0" izz="0.0" />
        </inertial>
    </link>
    <gazebo reference="box_23_backside">
        <material>Gazebo/Orange</material>
    </gazebo>
    <joint name="box_23_backside" type="fixed">
        <parent link="box_23" />
        <child link="box_23_backside" />
        <axis xyz="0 0 1" />
        <origin rpy="0 0 0" xyz="0 0.318 0.013" />
    </joint>
    <link name="box_23_leftside">
        <!-- w is in x, l is in y, h is in z -->
        <visual>
            <origin rpy="0 0 0" xyz="0.0085 0.15050000000000002 0.091" />
            <geometry>
                <box size="0.017 0.30100000000000005 0.182" />
            </geometry>
            <material name="orange">
                <color rgba="1 0.5088 0.0468 1" />
            </material>
        </visual>
        <collision>
            <origin rpy="0 0 0" xyz="0.0085 0.15050000000000002 0.091" />
            <geometry>
                <box size="0.017 0.30100000000000005 0.182" />
            </geometry>
        </collision>
        <!-- This is required for Gazebo. -->
        <inertial>
            <mass value="1.0" />
            <origin rpy="0 0 0" xyz="0.0085 0.30100000000000005 0.091" />
            <inertia ixx="0.0" ixy="0.0" ixz="0.0" iyy="0.0" iyz="0.0" izz="0.0" />
        </inertial>
    </link>
    <gazebo reference="box_23_leftside">
        <material>Gazebo/Orange</material>
    </gazebo>
    <joint name="box_23_leftside" type="fixed">
        <parent link="box_23" />
        <child link="box_23_leftside" />
        <axis xyz="0 0 1" />
        <origin rpy="0 0 0" xyz="0 0.017  0.013" />
    </joint>
    <link name="box_23_rightside">
        <!-- w is in x, l is in y, h is in z -->
        <visual>
            <origin rpy="0 0 0" xyz="0.0085 0.15050000000000002 0.091" />
            <geometry>
                <box size="0.017 0.30100000000000005 0.182" />
            </geometry>
            <material name="orange">
                <color rgba="1 0.5088 0.0468 1" />
            </material>
        </visual>
        <collision>
            <origin rpy="0 0 0" xyz="0.0085 0.15050000000000002 0.091" />
            <geometry>
                <box size="0.017 0.30100000000000005 0.182" />
            </geometry>
        </collision>
        <!-- This is required for Gazebo. -->
        <inertial>
            <mass value="1.0" />
            <origin rpy="0 0 0" xyz="0.0085 0.30100000000000005 0.091" />
            <inertia ixx="0.0" ixy="0.0" ixz="0.0" iyy="0.0" iyz="0.0" izz="0.0" />
        </inertial>
    </link>
    <gazebo reference="box_23_rightside">
        <material>Gazebo/Orange</material>
    </gazebo>
    <joint name="box_23_rightside" type="fixed">
        <parent link="box_23" />
        <child link="box_23_rightside" />
        <axis xyz="0 0 1" />
        <origin rpy="0 0 0" xyz="0.318      0.017      0.013" />
    </joint>
    <link name="box_23_bottom" />
    <joint name="box_23_bottom_joint" type="fixed">
        <parent link="box_23" />
        <child link="box_23_bottom" />
        <origin rpy="0 0 0" xyz="0.017 0.017 0.013" />
    </joint>
    <link name="box_23_center_bottom" />
    <joint name="box_23_center_bottom_joint" type="fixed">
        <parent link="box_23" />
        <child link="box_23_center_bottom" />
        <origin rpy="0 0 0" xyz="0.1675 0.1675 0.013" />
    </joint>
    <link name="box_23_lower_left_top" />
    <joint name="box_23_lower_left_top_joint" type="fixed">
        <parent link="box_23" />
        <child link="box_23_lower_left_top" />
        <origin rpy="0 0 0" xyz="0 0 0.195" />
    </joint>
    <link name="box_23_lower_right_top" />
    <joint name="box_23_lower_right_top_joint" type="fixed">
        <parent link="box_23" />
        <child link="box_23_lower_right_top" />
        <origin rpy="0 0 0" xyz="0.335 0 0.195" />
    </joint>
    <link name="box_23_upper_left_top" />
    <joint name="box_23_upper_left_top_joint" type="fixed">
        <parent link="box_23" />
        <child link="box_23_upper_left_top" />
        <origin rpy="0 0 0" xyz="0 0.335 0.195" />
    </joint>
    <link name="box_23_upper_right_top" />
    <joint name="box_23_upper_right_top_joint" type="fixed">
        <parent link="box_23" />
        <child link="box_23_upper_right_top" />
        <origin rpy="0 0 0" xyz="0.335 0.335 0.195" />
    </joint>
    <link name="box_23_center_top" />
    <joint name="box_23_center_top_joint" type="fixed">
        <parent link="box_23" />
        <child link="box_23_center_top" />
        <origin rpy="0 0 0" xyz="0.1675 0.1675 0.225" />
    </joint>
    <link name="box_26">
        <!-- w is in x, l is in y, h is in z -->
        <visual>
            <origin rpy="0 0 0" xyz="0.1675 0.1675 0.0065" />
            <geometry>
                <box size="0.335 0.335 0.013" />
            </geometry>
            <material name="orange">
                <color rgba="1 0.5088 0.0468 1" />
            </material>
        </visual>
        <collision>
            <origin rpy="0 0 0" xyz="0.1675 0.1675 0.0065" />
            <geometry>
                <box size="0.335 0.335 0.013" />
            </geometry>
        </collision>
        <!-- This is required for Gazebo. -->
        <inertial>
            <mass value="1.0" />
            <origin rpy="0 0 0" xyz="0.1675 0.335 0.0065" />
            <inertia ixx="0.0" ixy="0.0" ixz="0.0" iyy="0.0" iyz="0.0" izz="0.0" />
        </inertial>
    </link>
    <gazebo reference="box_26">
        <material>Gazebo/Orange</material>
    </gazebo>
    <joint name="box_26" type="fixed">
        <parent link="rack_t3_lower" />
        <child link="box_26" />
        <axis xyz="0 0 1" />
        <origin rpy="0 0 0" xyz="0.43 0 0" />
    </joint>
    <link name="box_26_frontside">
        <!-- w is in x, l is in y, h is in z -->
        <visual>
            <origin rpy="0 0 0" xyz="0.1675 0.0085 0.091" />
            <geometry>
                <box size="0.335 0.017 0.182" />
            </geometry>
            <material name="orange">
                <color rgba="1 0.5088 0.0468 1" />
            </material>
        </visual>
        <collision>
            <origin rpy="0 0 0" xyz="0.1675 0.0085 0.091" />
            <geometry>
                <box size="0.335 0.017 0.182" />
            </geometry>
        </collision>
        <!-- This is required for Gazebo. -->
        <inertial>
            <mass value="1.0" />
            <origin rpy="0 0 0" xyz="0.1675 0.017 0.091" />
            <inertia ixx="0.0" ixy="0.0" ixz="0.0" iyy="0.0" iyz="0.0" izz="0.0" />
        </inertial>
    </link>
    <gazebo reference="box_26_frontside">
        <material>Gazebo/Orange</material>
    </gazebo>
    <joint name="box_26_frontside" type="fixed">
        <parent link="box_26" />
        <child link="box_26_frontside" />
        <axis xyz="0 0 1" />
        <origin rpy="0 0 0" xyz="0 0 0.013" />
    </joint>
    <link name="box_26_backside">
        <!-- w is in x, l is in y, h is in z -->
        <visual>
            <origin rpy="0 0 0" xyz="0.1675 0.0085 0.091" />
            <geometry>
                <box size="0.335 0.017 0.182" />
            </geometry>
            <material name="orange">
                <color rgba="1 0.5088 0.0468 1" />
            </material>
        </visual>
        <collision>
            <origin rpy="0 0 0" xyz="0.1675 0.0085 0.091" />
            <geometry>
                <box size="0.335 0.017 0.182" />
            </geometry>
        </collision>
        <!-- This is required for Gazebo. -->
        <inertial>
            <mass value="1.0" />
            <origin rpy="0 0 0" xyz="0.1675 0.017 0.091" />
            <inertia ixx="0.0" ixy="0.0" ixz="0.0" iyy="0.0" iyz="0.0" izz="0.0" />
        </inertial>
    </link>
    <gazebo reference="box_26_backside">
        <material>Gazebo/Orange</material>
    </gazebo>
    <joint name="box_26_backside" type="fixed">
        <parent link="box_26" />
        <child link="box_26_backside" />
        <axis xyz="0 0 1" />
        <origin rpy="0 0 0" xyz="0 0.318 0.013" />
    </joint>
    <link name="box_26_leftside">
        <!-- w is in x, l is in y, h is in z -->
        <visual>
            <origin rpy="0 0 0" xyz="0.0085 0.15050000000000002 0.091" />
            <geometry>
                <box size="0.017 0.30100000000000005 0.182" />
            </geometry>
            <material name="orange">
                <color rgba="1 0.5088 0.0468 1" />
            </material>
        </visual>
        <collision>
            <origin rpy="0 0 0" xyz="0.0085 0.15050000000000002 0.091" />
            <geometry>
                <box size="0.017 0.30100000000000005 0.182" />
            </geometry>
        </collision>
        <!-- This is required for Gazebo. -->
        <inertial>
            <mass value="1.0" />
            <origin rpy="0 0 0" xyz="0.0085 0.30100000000000005 0.091" />
            <inertia ixx="0.0" ixy="0.0" ixz="0.0" iyy="0.0" iyz="0.0" izz="0.0" />
        </inertial>
    </link>
    <gazebo reference="box_26_leftside">
        <material>Gazebo/Orange</material>
    </gazebo>
    <joint name="box_26_leftside" type="fixed">
        <parent link="box_26" />
        <child link="box_26_leftside" />
        <axis xyz="0 0 1" />
        <origin rpy="0 0 0" xyz="0 0.017  0.013" />
    </joint>
    <link name="box_26_rightside">
        <!-- w is in x, l is in y, h is in z -->
        <visual>
            <origin rpy="0 0 0" xyz="0.0085 0.15050000000000002 0.091" />
            <geometry>
                <box size="0.017 0.30100000000000005 0.182" />
            </geometry>
            <material name="orange">
                <color rgba="1 0.5088 0.0468 1" />
            </material>
        </visual>
        <collision>
            <origin rpy="0 0 0" xyz="0.0085 0.15050000000000002 0.091" />
            <geometry>
                <box size="0.017 0.30100000000000005 0.182" />
            </geometry>
        </collision>
        <!-- This is required for Gazebo. -->
        <inertial>
            <mass value="1.0" />
            <origin rpy="0 0 0" xyz="0.0085 0.30100000000000005 0.091" />
            <inertia ixx="0.0" ixy="0.0" ixz="0.0" iyy="0.0" iyz="0.0" izz="0.0" />
        </inertial>
    </link>
    <gazebo reference="box_26_rightside">
        <material>Gazebo/Orange</material>
    </gazebo>
    <joint name="box_26_rightside" type="fixed">
        <parent link="box_26" />
        <child link="box_26_rightside" />
        <axis xyz="0 0 1" />
        <origin rpy="0 0 0" xyz="0.318      0.017      0.013" />
    </joint>
    <link name="box_26_bottom" />
    <joint name="box_26_bottom_joint" type="fixed">
        <parent link="box_26" />
        <child link="box_26_bottom" />
        <origin rpy="0 0 0" xyz="0.017 0.017 0.013" />
    </joint>
    <link name="box_26_center_bottom" />
    <joint name="box_26_center_bottom_joint" type="fixed">
        <parent link="box_26" />
        <child link="box_26_center_bottom" />
        <origin rpy="0 0 0" xyz="0.1675 0.1675 0.013" />
    </joint>
    <link name="box_26_lower_left_top" />
    <joint name="box_26_lower_left_top_joint" type="fixed">
        <parent link="box_26" />
        <child link="box_26_lower_left_top" />
        <origin rpy="0 0 0" xyz="0 0 0.195" />
    </joint>
    <link name="box_26_lower_right_top" />
    <joint name="box_26_lower_right_top_joint" type="fixed">
        <parent link="box_26" />
        <child link="box_26_lower_right_top" />
        <origin rpy="0 0 0" xyz="0.335 0 0.195" />
    </joint>
    <link name="box_26_upper_left_top" />
    <joint name="box_26_upper_left_top_joint" type="fixed">
        <parent link="box_26" />
        <child link="box_26_upper_left_top" />
        <origin rpy="0 0 0" xyz="0 0.335 0.195" />
    </joint>
    <link name="box_26_upper_right_top" />
    <joint name="box_26_upper_right_top_joint" type="fixed">
        <parent link="box_26" />
        <child link="box_26_upper_right_top" />
        <origin rpy="0 0 0" xyz="0.335 0.335 0.195" />
    </joint>
    <link name="box_26_center_top" />
    <joint name="box_26_center_top_joint" type="fixed">
        <parent link="box_26" />
        <child link="box_26_center_top" />
        <origin rpy="0 0 0" xyz="0.1675 0.1675 0.225" />
    </joint>
    <link name="box_42">
        <!-- w is in x, l is in y, h is in z -->
        <visual>
            <origin rpy="0 0 0" xyz="0.1675 0.1675 0.0065" />
            <geometry>
                <box size="0.335 0.335 0.013" />
            </geometry>
            <material name="orange">
                <color rgba="1 0.5088 0.0468 1" />
            </material>
        </visual>
        <collision>
            <origin rpy="0 0 0" xyz="0.1675 0.1675 0.0065" />
            <geometry>
                <box size="0.335 0.335 0.013" />
            </geometry>
        </collision>
        <!-- This is required for Gazebo. -->
        <inertial>
            <mass value="1.0" />
            <origin rpy="0 0 0" xyz="0.1675 0.335 0.0065" />
            <inertia ixx="0.0" ixy="0.0" ixz="0.0" iyy="0.0" iyz="0.0" izz="0.0" />
        </inertial>
    </link>
    <gazebo reference="box_42">
        <material>Gazebo/Orange</material>
    </gazebo>
    <joint name="box_42" type="fixed">
        <parent link="rack_t2_upper" />
        <child link="box_42" />
        <axis xyz="0 0 1" />
        <origin rpy="0 0 0" xyz="0.08499999999999996 0 0" />
    </joint>
    <link name="box_42_frontside">
        <!-- w is in x, l is in y, h is in z -->
        <visual>
            <origin rpy="0 0 0" xyz="0.1675 0.0085 0.045" />
            <geometry>
                <box size="0.335 0.017 0.09" />
            </geometry>
            <material name="orange">
                <color rgba="1 0.5088 0.0468 1" />
            </material>
        </visual>
        <collision>
            <origin rpy="0 0 0" xyz="0.1675 0.0085 0.045" />
            <geometry>
                <box size="0.335 0.017 0.09" />
            </geometry>
        </collision>
        <!-- This is required for Gazebo. -->
        <inertial>
            <mass value="1.0" />
            <origin rpy="0 0 0" xyz="0.1675 0.017 0.045" />
            <inertia ixx="0.0" ixy="0.0" ixz="0.0" iyy="0.0" iyz="0.0" izz="0.0" />
        </inertial>
    </link>
    <gazebo reference="box_42_frontside">
        <material>Gazebo/Orange</material>
    </gazebo>
    <joint name="box_42_frontside" type="fixed">
        <parent link="box_42" />
        <child link="box_42_frontside" />
        <axis xyz="0 0 1" />
        <origin rpy="0 0 0" xyz="0 0 0.013" />
    </joint>
    <link name="box_42_backside">
        <!-- w is in x, l is in y, h is in z -->
        <visual>
            <origin rpy="0 0 0" xyz="0.1675 0.0085 0.045" />
            <geometry>
                <box size="0.335 0.017 0.09" />
            </geometry>
            <material name="orange">
                <color rgba="1 0.5088 0.0468 1" />
            </material>
        </visual>
        <collision>
            <origin rpy="0 0 0" xyz="0.1675 0.0085 0.045" />
            <geometry>
                <box size="0.335 0.017 0.09" />
            </geometry>
        </collision>
        <!-- This is required for Gazebo. -->
        <inertial>
            <mass value="1.0" />
            <origin rpy="0 0 0" xyz="0.1675 0.017 0.045" />
            <inertia ixx="0.0" ixy="0.0" ixz="0.0" iyy="0.0" iyz="0.0" izz="0.0" />
        </inertial>
    </link>
    <gazebo reference="box_42_backside">
        <material>Gazebo/Orange</material>
    </gazebo>
    <joint name="box_42_backside" type="fixed">
        <parent link="box_42" />
        <child link="box_42_backside" />
        <axis xyz="0 0 1" />
        <origin rpy="0 0 0" xyz="0 0.318 0.013" />
    </joint>
    <link name="box_42_leftside">
        <!-- w is in x, l is in y, h is in z -->
        <visual>
            <origin rpy="0 0 0" xyz="0.0085 0.15050000000000002 0.045" />
            <geometry>
                <box size="0.017 0.30100000000000005 0.09" />
            </geometry>
            <material name="orange">
                <color rgba="1 0.5088 0.0468 1" />
            </material>
        </visual>
        <collision>
            <origin rpy="0 0 0" xyz="0.0085 0.15050000000000002 0.045" />
            <geometry>
                <box size="0.017 0.30100000000000005 0.09" />
            </geometry>
        </collision>
        <!-- This is required for Gazebo. -->
        <inertial>
            <mass value="1.0" />
            <origin rpy="0 0 0" xyz="0.0085 0.30100000000000005 0.045" />
            <inertia ixx="0.0" ixy="0.0" ixz="0.0" iyy="0.0" iyz="0.0" izz="0.0" />
        </inertial>
    </link>
    <gazebo reference="box_42_leftside">
        <material>Gazebo/Orange</material>
    </gazebo>
    <joint name="box_42_leftside" type="fixed">
        <parent link="box_42" />
        <child link="box_42_leftside" />
        <axis xyz="0 0 1" />
        <origin rpy="0 0 0" xyz="0 0.017  0.013" />
    </joint>
    <link name="box_42_rightside">
        <!-- w is in x, l is in y, h is in z -->
        <visual>
            <origin rpy="0 0 0" xyz="0.0085 0.15050000000000002 0.045" />
            <geometry>
                <box size="0.017 0.30100000000000005 0.09" />
            </geometry>
            <material name="orange">
                <color rgba="1 0.5088 0.0468 1" />
            </material>
        </visual>
        <collision>
            <origin rpy="0 0 0" xyz="0.0085 0.15050000000000002 0.045" />
            <geometry>
                <box size="0.017 0.30100000000000005 0.09" />
            </geometry>
        </collision>
        <!-- This is required for Gazebo. -->
        <inertial>
            <mass value="1.0" />
            <origin rpy="0 0 0" xyz="0.0085 0.30100000000000005 0.045" />
            <inertia ixx="0.0" ixy="0.0" ixz="0.0" iyy="0.0" iyz="0.0" izz="0.0" />
        </inertial>
    </link>
    <gazebo reference="box_42_rightside">
        <material>Gazebo/Orange</material>
    </gazebo>
    <joint name="box_42_rightside" type="fixed">
        <parent link="box_42" />
        <child link="box_42_rightside" />
        <axis xyz="0 0 1" />
        <origin rpy="0 0 0" xyz="0.318      0.017      0.013" />
    </joint>
    <link name="box_42_bottom" />
    <joint name="box_42_bottom_joint" type="fixed">
        <parent link="box_42" />
        <child link="box_42_bottom" />
        <origin rpy="0 0 0" xyz="0.017 0.017 0.013" />
    </joint>
    <link name="box_42_center_bottom" />
    <joint name="box_42_center_bottom_joint" type="fixed">
        <parent link="box_42" />
        <child link="box_42_center_bottom" />
        <origin rpy="0 0 0" xyz="0.1675 0.1675 0.013" />
    </joint>
    <link name="box_42_lower_left_top" />
    <joint name="box_42_lower_left_top_joint" type="fixed">
        <parent link="box_42" />
        <child link="box_42_lower_left_top" />
        <origin rpy="0 0 0" xyz="0 0 0.103" />
    </joint>
    <link name="box_42_lower_right_top" />
    <joint name="box_42_lower_right_top_joint" type="fixed">
        <parent link="box_42" />
        <child link="box_42_lower_right_top" />
        <origin rpy="0 0 0" xyz="0.335 0 0.103" />
    </joint>
    <link name="box_42_upper_left_top" />
    <joint name="box_42_upper_left_top_joint" type="fixed">
        <parent link="box_42" />
        <child link="box_42_upper_left_top" />
        <origin rpy="0 0 0" xyz="0 0.335 0.103" />
    </joint>
    <link name="box_42_upper_right_top" />
    <joint name="box_42_upper_right_top_joint" type="fixed">
        <parent link="box_42" />
        <child link="box_42_upper_right_top" />
        <origin rpy="0 0 0" xyz="0.335 0.335 0.103" />
    </joint>
    <link name="box_42_center_top" />
    <joint name="box_42_center_top_joint" type="fixed">
        <parent link="box_42" />
        <child link="box_42_center_top" />
        <origin rpy="0 0 0" xyz="0.1675 0.1675 0.133" />
    </joint>
    <link name="box_41">
        <!-- w is in x, l is in y, h is in z -->
        <visual>
            <origin rpy="0 0 0" xyz="0.1675 0.1675 0.0065" />
            <geometry>
                <box size="0.335 0.335 0.013" />
            </geometry>
            <material name="orange">
                <color rgba="1 0.5088 0.0468 1" />
            </material>
        </visual>
        <collision>
            <origin rpy="0 0 0" xyz="0.1675 0.1675 0.0065" />
            <geometry>
                <box size="0.335 0.335 0.013" />
            </geometry>
        </collision>
        <!-- This is required for Gazebo. -->
        <inertial>
            <mass value="1.0" />
            <origin rpy="0 0 0" xyz="0.1675 0.335 0.0065" />
            <inertia ixx="0.0" ixy="0.0" ixz="0.0" iyy="0.0" iyz="0.0" izz="0.0" />
        </inertial>
    </link>
    <gazebo reference="box_41">
        <material>Gazebo/Orange</material>
    </gazebo>
    <joint name="box_41" type="fixed">
        <parent link="rack_t2_upper" />
        <child link="box_41" />
        <axis xyz="0 0 1" />
        <origin rpy="0 0 0" xyz="0.43 0 0" />
    </joint>
    <link name="box_41_frontside">
        <!-- w is in x, l is in y, h is in z -->
        <visual>
            <origin rpy="0 0 0" xyz="0.1675 0.0085 0.045" />
            <geometry>
                <box size="0.335 0.017 0.09" />
            </geometry>
            <material name="orange">
                <color rgba="1 0.5088 0.0468 1" />
            </material>
        </visual>
        <collision>
            <origin rpy="0 0 0" xyz="0.1675 0.0085 0.045" />
            <geometry>
                <box size="0.335 0.017 0.09" />
            </geometry>
        </collision>
        <!-- This is required for Gazebo. -->
        <inertial>
            <mass value="1.0" />
            <origin rpy="0 0 0" xyz="0.1675 0.017 0.045" />
            <inertia ixx="0.0" ixy="0.0" ixz="0.0" iyy="0.0" iyz="0.0" izz="0.0" />
        </inertial>
    </link>
    <gazebo reference="box_41_frontside">
        <material>Gazebo/Orange</material>
    </gazebo>
    <joint name="box_41_frontside" type="fixed">
        <parent link="box_41" />
        <child link="box_41_frontside" />
        <axis xyz="0 0 1" />
        <origin rpy="0 0 0" xyz="0 0 0.013" />
    </joint>
    <link name="box_41_backside">
        <!-- w is in x, l is in y, h is in z -->
        <visual>
            <origin rpy="0 0 0" xyz="0.1675 0.0085 0.045" />
            <geometry>
                <box size="0.335 0.017 0.09" />
            </geometry>
            <material name="orange">
                <color rgba="1 0.5088 0.0468 1" />
            </material>
        </visual>
        <collision>
            <origin rpy="0 0 0" xyz="0.1675 0.0085 0.045" />
            <geometry>
                <box size="0.335 0.017 0.09" />
            </geometry>
        </collision>
        <!-- This is required for Gazebo. -->
        <inertial>
            <mass value="1.0" />
            <origin rpy="0 0 0" xyz="0.1675 0.017 0.045" />
            <inertia ixx="0.0" ixy="0.0" ixz="0.0" iyy="0.0" iyz="0.0" izz="0.0" />
        </inertial>
    </link>
    <gazebo reference="box_41_backside">
        <material>Gazebo/Orange</material>
    </gazebo>
    <joint name="box_41_backside" type="fixed">
        <parent link="box_41" />
        <child link="box_41_backside" />
        <axis xyz="0 0 1" />
        <origin rpy="0 0 0" xyz="0 0.318 0.013" />
    </joint>
    <link name="box_41_leftside">
        <!-- w is in x, l is in y, h is in z -->
        <visual>
            <origin rpy="0 0 0" xyz="0.0085 0.15050000000000002 0.045" />
            <geometry>
                <box size="0.017 0.30100000000000005 0.09" />
            </geometry>
            <material name="orange">
                <color rgba="1 0.5088 0.0468 1" />
            </material>
        </visual>
        <collision>
            <origin rpy="0 0 0" xyz="0.0085 0.15050000000000002 0.045" />
            <geometry>
                <box size="0.017 0.30100000000000005 0.09" />
            </geometry>
        </collision>
        <!-- This is required for Gazebo. -->
        <inertial>
            <mass value="1.0" />
            <origin rpy="0 0 0" xyz="0.0085 0.30100000000000005 0.045" />
            <inertia ixx="0.0" ixy="0.0" ixz="0.0" iyy="0.0" iyz="0.0" izz="0.0" />
        </inertial>
    </link>
    <gazebo reference="box_41_leftside">
        <material>Gazebo/Orange</material>
    </gazebo>
    <joint name="box_41_leftside" type="fixed">
        <parent link="box_41" />
        <child link="box_41_leftside" />
        <axis xyz="0 0 1" />
        <origin rpy="0 0 0" xyz="0 0.017  0.013" />
    </joint>
    <link name="box_41_rightside">
        <!-- w is in x, l is in y, h is in z -->
        <visual>
            <origin rpy="0 0 0" xyz="0.0085 0.15050000000000002 0.045" />
            <geometry>
                <box size="0.017 0.30100000000000005 0.09" />
            </geometry>
            <material name="orange">
                <color rgba="1 0.5088 0.0468 1" />
            </material>
        </visual>
        <collision>
            <origin rpy="0 0 0" xyz="0.0085 0.15050000000000002 0.045" />
            <geometry>
                <box size="0.017 0.30100000000000005 0.09" />
            </geometry>
        </collision>
        <!-- This is required for Gazebo. -->
        <inertial>
            <mass value="1.0" />
            <origin rpy="0 0 0" xyz="0.0085 0.30100000000000005 0.045" />
            <inertia ixx="0.0" ixy="0.0" ixz="0.0" iyy="0.0" iyz="0.0" izz="0.0" />
        </inertial>
    </link>
    <gazebo reference="box_41_rightside">
        <material>Gazebo/Orange</material>
    </gazebo>
    <joint name="box_41_rightside" type="fixed">
        <parent link="box_41" />
        <child link="box_41_rightside" />
        <axis xyz="0 0 1" />
        <origin rpy="0 0 0" xyz="0.318      0.017      0.013" />
    </joint>
    <link name="box_41_bottom" />
    <joint name="box_41_bottom_joint" type="fixed">
        <parent link="box_41" />
        <child link="box_41_bottom" />
        <origin rpy="0 0 0" xyz="0.017 0.017 0.013" />
    </joint>
    <link name="box_41_center_bottom" />
    <joint name="box_41_center_bottom_joint" type="fixed">
        <parent link="box_41" />
        <child link="box_41_center_bottom" />
        <origin rpy="0 0 0" xyz="0.1675 0.1675 0.013" />
    </joint>
    <link name="box_41_lower_left_top" />
    <joint name="box_41_lower_left_top_joint" type="fixed">
        <parent link="box_41" />
        <child link="box_41_lower_left_top" />
        <origin rpy="0 0 0" xyz="0 0 0.103" />
    </joint>
    <link name="box_41_lower_right_top" />
    <joint name="box_41_lower_right_top_joint" type="fixed">
        <parent link="box_41" />
        <child link="box_41_lower_right_top" />
        <origin rpy="0 0 0" xyz="0.335 0 0.103" />
    </joint>
    <link name="box_41_upper_left_top" />
    <joint name="box_41_upper_left_top_joint" type="fixed">
        <parent link="box_41" />
        <child link="box_41_upper_left_top" />
        <origin rpy="0 0 0" xyz="0 0.335 0.103" />
    </joint>
    <link name="box_41_upper_right_top" />
    <joint name="box_41_upper_right_top_joint" type="fixed">
        <parent link="box_41" />
        <child link="box_41_upper_right_top" />
        <origin rpy="0 0 0" xyz="0.335 0.335 0.103" />
    </joint>
    <link name="box_41_center_top" />
    <joint name="box_41_center_top_joint" type="fixed">
        <parent link="box_41" />
        <child link="box_41_center_top" />
        <origin rpy="0 0 0" xyz="0.1675 0.1675 0.133" />
    </joint>
    <link name="box_5">
        <!-- w is in x, l is in y, h is in z -->
        <visual>
            <origin rpy="0 0 0" xyz="0.1675 0.1675 0.0065" />
            <geometry>
                <box size="0.335 0.335 0.013" />
            </geometry>
            <material name="orange">
                <color rgba="1 0.5088 0.0468 1" />
            </material>
        </visual>
        <collision>
            <origin rpy="0 0 0" xyz="0.1675 0.1675 0.0065" />
            <geometry>
                <box size="0.335 0.335 0.013" />
            </geometry>
        </collision>
        <!-- This is required for Gazebo. -->
        <inertial>
            <mass value="1.0" />
            <origin rpy="0 0 0" xyz="0.1675 0.335 0.0065" />
            <inertia ixx="0.0" ixy="0.0" ixz="0.0" iyy="0.0" iyz="0.0" izz="0.0" />
        </inertial>
    </link>
    <gazebo reference="box_5">
        <material>Gazebo/Orange</material>
    </gazebo>
    <joint name="box_5" type="fixed">
        <parent link="rack_t2_lower" />
        <child link="box_5" />
        <axis xyz="0 0 1" />
        <origin rpy="0 0 0" xyz="0.08499999999999996 0 0" />
    </joint>
    <link name="box_5_frontside">
        <!-- w is in x, l is in y, h is in z -->
        <visual>
            <origin rpy="0 0 0" xyz="0.1675 0.0085 0.045" />
            <geometry>
                <box size="0.335 0.017 0.09" />
            </geometry>
            <material name="orange">
                <color rgba="1 0.5088 0.0468 1" />
            </material>
        </visual>
        <collision>
            <origin rpy="0 0 0" xyz="0.1675 0.0085 0.045" />
            <geometry>
                <box size="0.335 0.017 0.09" />
            </geometry>
        </collision>
        <!-- This is required for Gazebo. -->
        <inertial>
            <mass value="1.0" />
            <origin rpy="0 0 0" xyz="0.1675 0.017 0.045" />
            <inertia ixx="0.0" ixy="0.0" ixz="0.0" iyy="0.0" iyz="0.0" izz="0.0" />
        </inertial>
    </link>
    <gazebo reference="box_5_frontside">
        <material>Gazebo/Orange</material>
    </gazebo>
    <joint name="box_5_frontside" type="fixed">
        <parent link="box_5" />
        <child link="box_5_frontside" />
        <axis xyz="0 0 1" />
        <origin rpy="0 0 0" xyz="0 0 0.013" />
    </joint>
    <link name="box_5_backside">
        <!-- w is in x, l is in y, h is in z -->
        <visual>
            <origin rpy="0 0 0" xyz="0.1675 0.0085 0.045" />
            <geometry>
                <box size="0.335 0.017 0.09" />
            </geometry>
            <material name="orange">
                <color rgba="1 0.5088 0.0468 1" />
            </material>
        </visual>
        <collision>
            <origin rpy="0 0 0" xyz="0.1675 0.0085 0.045" />
            <geometry>
                <box size="0.335 0.017 0.09" />
            </geometry>
        </collision>
        <!-- This is required for Gazebo. -->
        <inertial>
            <mass value="1.0" />
            <origin rpy="0 0 0" xyz="0.1675 0.017 0.045" />
            <inertia ixx="0.0" ixy="0.0" ixz="0.0" iyy="0.0" iyz="0.0" izz="0.0" />
        </inertial>
    </link>
    <gazebo reference="box_5_backside">
        <material>Gazebo/Orange</material>
    </gazebo>
    <joint name="box_5_backside" type="fixed">
        <parent link="box_5" />
        <child link="box_5_backside" />
        <axis xyz="0 0 1" />
        <origin rpy="0 0 0" xyz="0 0.318 0.013" />
    </joint>
    <link name="box_5_leftside">
        <!-- w is in x, l is in y, h is in z -->
        <visual>
            <origin rpy="0 0 0" xyz="0.0085 0.15050000000000002 0.045" />
            <geometry>
                <box size="0.017 0.30100000000000005 0.09" />
            </geometry>
            <material name="orange">
                <color rgba="1 0.5088 0.0468 1" />
            </material>
        </visual>
        <collision>
            <origin rpy="0 0 0" xyz="0.0085 0.15050000000000002 0.045" />
            <geometry>
                <box size="0.017 0.30100000000000005 0.09" />
            </geometry>
        </collision>
        <!-- This is required for Gazebo. -->
        <inertial>
            <mass value="1.0" />
            <origin rpy="0 0 0" xyz="0.0085 0.30100000000000005 0.045" />
            <inertia ixx="0.0" ixy="0.0" ixz="0.0" iyy="0.0" iyz="0.0" izz="0.0" />
        </inertial>
    </link>
    <gazebo reference="box_5_leftside">
        <material>Gazebo/Orange</material>
    </gazebo>
    <joint name="box_5_leftside" type="fixed">
        <parent link="box_5" />
        <child link="box_5_leftside" />
        <axis xyz="0 0 1" />
        <origin rpy="0 0 0" xyz="0 0.017  0.013" />
    </joint>
    <link name="box_5_rightside">
        <!-- w is in x, l is in y, h is in z -->
        <visual>
            <origin rpy="0 0 0" xyz="0.0085 0.15050000000000002 0.045" />
            <geometry>
                <box size="0.017 0.30100000000000005 0.09" />
            </geometry>
            <material name="orange">
                <color rgba="1 0.5088 0.0468 1" />
            </material>
        </visual>
        <collision>
            <origin rpy="0 0 0" xyz="0.0085 0.15050000000000002 0.045" />
            <geometry>
                <box size="0.017 0.30100000000000005 0.09" />
            </geometry>
        </collision>
        <!-- This is required for Gazebo. -->
        <inertial>
            <mass value="1.0" />
            <origin rpy="0 0 0" xyz="0.0085 0.30100000000000005 0.045" />
            <inertia ixx="0.0" ixy="0.0" ixz="0.0" iyy="0.0" iyz="0.0" izz="0.0" />
        </inertial>
    </link>
    <gazebo reference="box_5_rightside">
        <material>Gazebo/Orange</material>
    </gazebo>
    <joint name="box_5_rightside" type="fixed">
        <parent link="box_5" />
        <child link="box_5_rightside" />
        <axis xyz="0 0 1" />
        <origin rpy="0 0 0" xyz="0.318      0.017      0.013" />
    </joint>
    <link name="box_5_bottom" />
    <joint name="box_5_bottom_joint" type="fixed">
        <parent link="box_5" />
        <child link="box_5_bottom" />
        <origin rpy="0 0 0" xyz="0.017 0.017 0.013" />
    </joint>
    <link name="box_5_center_bottom" />
    <joint name="box_5_center_bottom_joint" type="fixed">
        <parent link="box_5" />
        <child link="box_5_center_bottom" />
        <origin rpy="0 0 0" xyz="0.1675 0.1675 0.013" />
    </joint>
    <link name="box_5_lower_left_top" />
    <joint name="box_5_lower_left_top_joint" type="fixed">
        <parent link="box_5" />
        <child link="box_5_lower_left_top" />
        <origin rpy="0 0 0" xyz="0 0 0.103" />
    </joint>
    <link name="box_5_lower_right_top" />
    <joint name="box_5_lower_right_top_joint" type="fixed">
        <parent link="box_5" />
        <child link="box_5_lower_right_top" />
        <origin rpy="0 0 0" xyz="0.335 0 0.103" />
    </joint>
    <link name="box_5_upper_left_top" />
    <joint name="box_5_upper_left_top_joint" type="fixed">
        <parent link="box_5" />
        <child link="box_5_upper_left_top" />
        <origin rpy="0 0 0" xyz="0 0.335 0.103" />
    </joint>
    <link name="box_5_upper_right_top" />
    <joint name="box_5_upper_right_top_joint" type="fixed">
        <parent link="box_5" />
        <child link="box_5_upper_right_top" />
        <origin rpy="0 0 0" xyz="0.335 0.335 0.103" />
    </joint>
    <link name="box_5_center_top" />
    <joint name="box_5_center_top_joint" type="fixed">
        <parent link="box_5" />
        <child link="box_5_center_top" />
        <origin rpy="0 0 0" xyz="0.1675 0.1675 0.133" />
    </joint>
    <link name="box_9">
        <!-- w is in x, l is in y, h is in z -->
        <visual>
            <origin rpy="0 0 0" xyz="0.1675 0.1675 0.0065" />
            <geometry>
                <box size="0.335 0.335 0.013" />
            </geometry>
            <material name="orange">
                <color rgba="1 0.5088 0.0468 1" />
            </material>
        </visual>
        <collision>
            <origin rpy="0 0 0" xyz="0.1675 0.1675 0.0065" />
            <geometry>
                <box size="0.335 0.335 0.013" />
            </geometry>
        </collision>
        <!-- This is required for Gazebo. -->
        <inertial>
            <mass value="1.0" />
            <origin rpy="0 0 0" xyz="0.1675 0.335 0.0065" />
            <inertia ixx="0.0" ixy="0.0" ixz="0.0" iyy="0.0" iyz="0.0" izz="0.0" />
        </inertial>
    </link>
    <gazebo reference="box_9">
        <material>Gazebo/Orange</material>
    </gazebo>
    <joint name="box_9" type="fixed">
        <parent link="rack_t2_lower" />
        <child link="box_9" />
        <axis xyz="0 0 1" />
        <origin rpy="0 0 0" xyz="0.43 0 0" />
    </joint>
    <link name="box_9_frontside">
        <!-- w is in x, l is in y, h is in z -->
        <visual>
            <origin rpy="0 0 0" xyz="0.1675 0.0085 0.091" />
            <geometry>
                <box size="0.335 0.017 0.182" />
            </geometry>
            <material name="orange">
                <color rgba="1 0.5088 0.0468 1" />
            </material>
        </visual>
        <collision>
            <origin rpy="0 0 0" xyz="0.1675 0.0085 0.091" />
            <geometry>
                <box size="0.335 0.017 0.182" />
            </geometry>
        </collision>
        <!-- This is required for Gazebo. -->
        <inertial>
            <mass value="1.0" />
            <origin rpy="0 0 0" xyz="0.1675 0.017 0.091" />
            <inertia ixx="0.0" ixy="0.0" ixz="0.0" iyy="0.0" iyz="0.0" izz="0.0" />
        </inertial>
    </link>
    <gazebo reference="box_9_frontside">
        <material>Gazebo/Orange</material>
    </gazebo>
    <joint name="box_9_frontside" type="fixed">
        <parent link="box_9" />
        <child link="box_9_frontside" />
        <axis xyz="0 0 1" />
        <origin rpy="0 0 0" xyz="0 0 0.013" />
    </joint>
    <link name="box_9_backside">
        <!-- w is in x, l is in y, h is in z -->
        <visual>
            <origin rpy="0 0 0" xyz="0.1675 0.0085 0.091" />
            <geometry>
                <box size="0.335 0.017 0.182" />
            </geometry>
            <material name="orange">
                <color rgba="1 0.5088 0.0468 1" />
            </material>
        </visual>
        <collision>
            <origin rpy="0 0 0" xyz="0.1675 0.0085 0.091" />
            <geometry>
                <box size="0.335 0.017 0.182" />
            </geometry>
        </collision>
        <!-- This is required for Gazebo. -->
        <inertial>
            <mass value="1.0" />
            <origin rpy="0 0 0" xyz="0.1675 0.017 0.091" />
            <inertia ixx="0.0" ixy="0.0" ixz="0.0" iyy="0.0" iyz="0.0" izz="0.0" />
        </inertial>
    </link>
    <gazebo reference="box_9_backside">
        <material>Gazebo/Orange</material>
    </gazebo>
    <joint name="box_9_backside" type="fixed">
        <parent link="box_9" />
        <child link="box_9_backside" />
        <axis xyz="0 0 1" />
        <origin rpy="0 0 0" xyz="0 0.318 0.013" />
    </joint>
    <link name="box_9_leftside">
        <!-- w is in x, l is in y, h is in z -->
        <visual>
            <origin rpy="0 0 0" xyz="0.0085 0.15050000000000002 0.091" />
            <geometry>
                <box size="0.017 0.30100000000000005 0.182" />
            </geometry>
            <material name="orange">
                <color rgba="1 0.5088 0.0468 1" />
            </material>
        </visual>
        <collision>
            <origin rpy="0 0 0" xyz="0.0085 0.15050000000000002 0.091" />
            <geometry>
                <box size="0.017 0.30100000000000005 0.182" />
            </geometry>
        </collision>
        <!-- This is required for Gazebo. -->
        <inertial>
            <mass value="1.0" />
            <origin rpy="0 0 0" xyz="0.0085 0.30100000000000005 0.091" />
            <inertia ixx="0.0" ixy="0.0" ixz="0.0" iyy="0.0" iyz="0.0" izz="0.0" />
        </inertial>
    </link>
    <gazebo reference="box_9_leftside">
        <material>Gazebo/Orange</material>
    </gazebo>
    <joint name="box_9_leftside" type="fixed">
        <parent link="box_9" />
        <child link="box_9_leftside" />
        <axis xyz="0 0 1" />
        <origin rpy="0 0 0" xyz="0 0.017  0.013" />
    </joint>
    <link name="box_9_rightside">
        <!-- w is in x, l is in y, h is in z -->
        <visual>
            <origin rpy="0 0 0" xyz="0.0085 0.15050000000000002 0.091" />
            <geometry>
                <box size="0.017 0.30100000000000005 0.182" />
            </geometry>
            <material name="orange">
                <color rgba="1 0.5088 0.0468 1" />
            </material>
        </visual>
        <collision>
            <origin rpy="0 0 0" xyz="0.0085 0.15050000000000002 0.091" />
            <geometry>
                <box size="0.017 0.30100000000000005 0.182" />
            </geometry>
        </collision>
        <!-- This is required for Gazebo. -->
        <inertial>
            <mass value="1.0" />
            <origin rpy="0 0 0" xyz="0.0085 0.30100000000000005 0.091" />
            <inertia ixx="0.0" ixy="0.0" ixz="0.0" iyy="0.0" iyz="0.0" izz="0.0" />
        </inertial>
    </link>
    <gazebo reference="box_9_rightside">
        <material>Gazebo/Orange</material>
    </gazebo>
    <joint name="box_9_rightside" type="fixed">
        <parent link="box_9" />
        <child link="box_9_rightside" />
        <axis xyz="0 0 1" />
        <origin rpy="0 0 0" xyz="0.318      0.017      0.013" />
    </joint>
    <link name="box_9_bottom" />
    <joint name="box_9_bottom_joint" type="fixed">
        <parent link="box_9" />
        <child link="box_9_bottom" />
        <origin rpy="0 0 0" xyz="0.017 0.017 0.013" />
    </joint>
    <link name="box_9_center_bottom" />
    <joint name="box_9_center_bottom_joint" type="fixed">
        <parent link="box_9" />
        <child link="box_9_center_bottom" />
        <origin rpy="0 0 0" xyz="0.1675 0.1675 0.013" />
    </joint>
    <link name="box_9_lower_left_top" />
    <joint name="box_9_lower_left_top_joint" type="fixed">
        <parent link="box_9" />
        <child link="box_9_lower_left_top" />
        <origin rpy="0 0 0" xyz="0 0 0.195" />
    </joint>
    <link name="box_9_lower_right_top" />
    <joint name="box_9_lower_right_top_joint" type="fixed">
        <parent link="box_9" />
        <child link="box_9_lower_right_top" />
        <origin rpy="0 0 0" xyz="0.335 0 0.195" />
    </joint>
    <link name="box_9_upper_left_top" />
    <joint name="box_9_upper_left_top_joint" type="fixed">
        <parent link="box_9" />
        <child link="box_9_upper_left_top" />
        <origin rpy="0 0 0" xyz="0 0.335 0.195" />
    </joint>
    <link name="box_9_upper_right_top" />
    <joint name="box_9_upper_right_top_joint" type="fixed">
        <parent link="box_9" />
        <child link="box_9_upper_right_top" />
        <origin rpy="0 0 0" xyz="0.335 0.335 0.195" />
    </joint>
    <link name="box_9_center_top" />
    <joint name="box_9_center_top_joint" type="fixed">
        <parent link="box_9" />
        <child link="box_9_center_top" />
        <origin rpy="0 0 0" xyz="0.1675 0.1675 0.225" />
    </joint>
    <link name="box_44">
        <!-- w is in x, l is in y, h is in z -->
        <visual>
            <origin rpy="0 0 0" xyz="0.1675 0.1675 0.0065" />
            <geometry>
                <box size="0.335 0.335 0.013" />
            </geometry>
            <material name="orange">
                <color rgba="1 0.5088 0.0468 1" />
            </material>
        </visual>
        <collision>
            <origin rpy="0 0 0" xyz="0.1675 0.1675 0.0065" />
            <geometry>
                <box size="0.335 0.335 0.013" />
            </geometry>
        </collision>
        <!-- This is required for Gazebo. -->
        <inertial>
            <mass value="1.0" />
            <origin rpy="0 0 0" xyz="0.1675 0.335 0.0065" />
            <inertia ixx="0.0" ixy="0.0" ixz="0.0" iyy="0.0" iyz="0.0" izz="0.0" />
        </inertial>
    </link>
    <gazebo reference="box_44">
        <material>Gazebo/Orange</material>
    </gazebo>
    <joint name="box_44" type="fixed">
        <parent link="rack_t1_upper" />
        <child link="box_44" />
        <axis xyz="0 0 1" />
        <origin rpy="0 0 0" xyz="0.08499999999999996 0 0" />
    </joint>
    <link name="box_44_frontside">
        <!-- w is in x, l is in y, h is in z -->
        <visual>
            <origin rpy="0 0 0" xyz="0.1675 0.0085 0.045" />
            <geometry>
                <box size="0.335 0.017 0.09" />
            </geometry>
            <material name="orange">
                <color rgba="1 0.5088 0.0468 1" />
            </material>
        </visual>
        <collision>
            <origin rpy="0 0 0" xyz="0.1675 0.0085 0.045" />
            <geometry>
                <box size="0.335 0.017 0.09" />
            </geometry>
        </collision>
        <!-- This is required for Gazebo. -->
        <inertial>
            <mass value="1.0" />
            <origin rpy="0 0 0" xyz="0.1675 0.017 0.045" />
            <inertia ixx="0.0" ixy="0.0" ixz="0.0" iyy="0.0" iyz="0.0" izz="0.0" />
        </inertial>
    </link>
    <gazebo reference="box_44_frontside">
        <material>Gazebo/Orange</material>
    </gazebo>
    <joint name="box_44_frontside" type="fixed">
        <parent link="box_44" />
        <child link="box_44_frontside" />
        <axis xyz="0 0 1" />
        <origin rpy="0 0 0" xyz="0 0 0.013" />
    </joint>
    <link name="box_44_backside">
        <!-- w is in x, l is in y, h is in z -->
        <visual>
            <origin rpy="0 0 0" xyz="0.1675 0.0085 0.045" />
            <geometry>
                <box size="0.335 0.017 0.09" />
            </geometry>
            <material name="orange">
                <color rgba="1 0.5088 0.0468 1" />
            </material>
        </visual>
        <collision>
            <origin rpy="0 0 0" xyz="0.1675 0.0085 0.045" />
            <geometry>
                <box size="0.335 0.017 0.09" />
            </geometry>
        </collision>
        <!-- This is required for Gazebo. -->
        <inertial>
            <mass value="1.0" />
            <origin rpy="0 0 0" xyz="0.1675 0.017 0.045" />
            <inertia ixx="0.0" ixy="0.0" ixz="0.0" iyy="0.0" iyz="0.0" izz="0.0" />
        </inertial>
    </link>
    <gazebo reference="box_44_backside">
        <material>Gazebo/Orange</material>
    </gazebo>
    <joint name="box_44_backside" type="fixed">
        <parent link="box_44" />
        <child link="box_44_backside" />
        <axis xyz="0 0 1" />
        <origin rpy="0 0 0" xyz="0 0.318 0.013" />
    </joint>
    <link name="box_44_leftside">
        <!-- w is in x, l is in y, h is in z -->
        <visual>
            <origin rpy="0 0 0" xyz="0.0085 0.15050000000000002 0.045" />
            <geometry>
                <box size="0.017 0.30100000000000005 0.09" />
            </geometry>
            <material name="orange">
                <color rgba="1 0.5088 0.0468 1" />
            </material>
        </visual>
        <collision>
            <origin rpy="0 0 0" xyz="0.0085 0.15050000000000002 0.045" />
            <geometry>
                <box size="0.017 0.30100000000000005 0.09" />
            </geometry>
        </collision>
        <!-- This is required for Gazebo. -->
        <inertial>
            <mass value="1.0" />
            <origin rpy="0 0 0" xyz="0.0085 0.30100000000000005 0.045" />
            <inertia ixx="0.0" ixy="0.0" ixz="0.0" iyy="0.0" iyz="0.0" izz="0.0" />
        </inertial>
    </link>
    <gazebo reference="box_44_leftside">
        <material>Gazebo/Orange</material>
    </gazebo>
    <joint name="box_44_leftside" type="fixed">
        <parent link="box_44" />
        <child link="box_44_leftside" />
        <axis xyz="0 0 1" />
        <origin rpy="0 0 0" xyz="0 0.017  0.013" />
    </joint>
    <link name="box_44_rightside">
        <!-- w is in x, l is in y, h is in z -->
        <visual>
            <origin rpy="0 0 0" xyz="0.0085 0.15050000000000002 0.045" />
            <geometry>
                <box size="0.017 0.30100000000000005 0.09" />
            </geometry>
            <material name="orange">
                <color rgba="1 0.5088 0.0468 1" />
            </material>
        </visual>
        <collision>
            <origin rpy="0 0 0" xyz="0.0085 0.15050000000000002 0.045" />
            <geometry>
                <box size="0.017 0.30100000000000005 0.09" />
            </geometry>
        </collision>
        <!-- This is required for Gazebo. -->
        <inertial>
            <mass value="1.0" />
            <origin rpy="0 0 0" xyz="0.0085 0.30100000000000005 0.045" />
            <inertia ixx="0.0" ixy="0.0" ixz="0.0" iyy="0.0" iyz="0.0" izz="0.0" />
        </inertial>
    </link>
    <gazebo reference="box_44_rightside">
        <material>Gazebo/Orange</material>
    </gazebo>
    <joint name="box_44_rightside" type="fixed">
        <parent link="box_44" />
        <child link="box_44_rightside" />
        <axis xyz="0 0 1" />
        <origin rpy="0 0 0" xyz="0.318      0.017      0.013" />
    </joint>
    <link name="box_44_bottom" />
    <joint name="box_44_bottom_joint" type="fixed">
        <parent link="box_44" />
        <child link="box_44_bottom" />
        <origin rpy="0 0 0" xyz="0.017 0.017 0.013" />
    </joint>
    <link name="box_44_center_bottom" />
    <joint name="box_44_center_bottom_joint" type="fixed">
        <parent link="box_44" />
        <child link="box_44_center_bottom" />
        <origin rpy="0 0 0" xyz="0.1675 0.1675 0.013" />
    </joint>
    <link name="box_44_lower_left_top" />
    <joint name="box_44_lower_left_top_joint" type="fixed">
        <parent link="box_44" />
        <child link="box_44_lower_left_top" />
        <origin rpy="0 0 0" xyz="0 0 0.103" />
    </joint>
    <link name="box_44_lower_right_top" />
    <joint name="box_44_lower_right_top_joint" type="fixed">
        <parent link="box_44" />
        <child link="box_44_lower_right_top" />
        <origin rpy="0 0 0" xyz="0.335 0 0.103" />
    </joint>
    <link name="box_44_upper_left_top" />
    <joint name="box_44_upper_left_top_joint" type="fixed">
        <parent link="box_44" />
        <child link="box_44_upper_left_top" />
        <origin rpy="0 0 0" xyz="0 0.335 0.103" />
    </joint>
    <link name="box_44_upper_right_top" />
    <joint name="box_44_upper_right_top_joint" type="fixed">
        <parent link="box_44" />
        <child link="box_44_upper_right_top" />
        <origin rpy="0 0 0" xyz="0.335 0.335 0.103" />
    </joint>
    <link name="box_44_center_top" />
    <joint name="box_44_center_top_joint" type="fixed">
        <parent link="box_44" />
        <child link="box_44_center_top" />
        <origin rpy="0 0 0" xyz="0.1675 0.1675 0.133" />
    </joint>
    <link name="box_43">
        <!-- w is in x, l is in y, h is in z -->
        <visual>
            <origin rpy="0 0 0" xyz="0.1675 0.1675 0.0065" />
            <geometry>
                <box size="0.335 0.335 0.013" />
            </geometry>
            <material name="orange">
                <color rgba="1 0.5088 0.0468 1" />
            </material>
        </visual>
        <collision>
            <origin rpy="0 0 0" xyz="0.1675 0.1675 0.0065" />
            <geometry>
                <box size="0.335 0.335 0.013" />
            </geometry>
        </collision>
        <!-- This is required for Gazebo. -->
        <inertial>
            <mass value="1.0" />
            <origin rpy="0 0 0" xyz="0.1675 0.335 0.0065" />
            <inertia ixx="0.0" ixy="0.0" ixz="0.0" iyy="0.0" iyz="0.0" izz="0.0" />
        </inertial>
    </link>
    <gazebo reference="box_43">
        <material>Gazebo/Orange</material>
    </gazebo>
    <joint name="box_43" type="fixed">
        <parent link="rack_t1_upper" />
        <child link="box_43" />
        <axis xyz="0 0 1" />
        <origin rpy="0 0 0" xyz="0.43 0 0" />
    </joint>
    <link name="box_43_frontside">
        <!-- w is in x, l is in y, h is in z -->
        <visual>
            <origin rpy="0 0 0" xyz="0.1675 0.0085 0.045" />
            <geometry>
                <box size="0.335 0.017 0.09" />
            </geometry>
            <material name="orange">
                <color rgba="1 0.5088 0.0468 1" />
            </material>
        </visual>
        <collision>
            <origin rpy="0 0 0" xyz="0.1675 0.0085 0.045" />
            <geometry>
                <box size="0.335 0.017 0.09" />
            </geometry>
        </collision>
        <!-- This is required for Gazebo. -->
        <inertial>
            <mass value="1.0" />
            <origin rpy="0 0 0" xyz="0.1675 0.017 0.045" />
            <inertia ixx="0.0" ixy="0.0" ixz="0.0" iyy="0.0" iyz="0.0" izz="0.0" />
        </inertial>
    </link>
    <gazebo reference="box_43_frontside">
        <material>Gazebo/Orange</material>
    </gazebo>
    <joint name="box_43_frontside" type="fixed">
        <parent link="box_43" />
        <child link="box_43_frontside" />
        <axis xyz="0 0 1" />
        <origin rpy="0 0 0" xyz="0 0 0.013" />
    </joint>
    <link name="box_43_backside">
        <!-- w is in x, l is in y, h is in z -->
        <visual>
            <origin rpy="0 0 0" xyz="0.1675 0.0085 0.045" />
            <geometry>
                <box size="0.335 0.017 0.09" />
            </geometry>
            <material name="orange">
                <color rgba="1 0.5088 0.0468 1" />
            </material>
        </visual>
        <collision>
            <origin rpy="0 0 0" xyz="0.1675 0.0085 0.045" />
            <geometry>
                <box size="0.335 0.017 0.09" />
            </geometry>
        </collision>
        <!-- This is required for Gazebo. -->
        <inertial>
            <mass value="1.0" />
            <origin rpy="0 0 0" xyz="0.1675 0.017 0.045" />
            <inertia ixx="0.0" ixy="0.0" ixz="0.0" iyy="0.0" iyz="0.0" izz="0.0" />
        </inertial>
    </link>
    <gazebo reference="box_43_backside">
        <material>Gazebo/Orange</material>
    </gazebo>
    <joint name="box_43_backside" type="fixed">
        <parent link="box_43" />
        <child link="box_43_backside" />
        <axis xyz="0 0 1" />
        <origin rpy="0 0 0" xyz="0 0.318 0.013" />
    </joint>
    <link name="box_43_leftside">
        <!-- w is in x, l is in y, h is in z -->
        <visual>
            <origin rpy="0 0 0" xyz="0.0085 0.15050000000000002 0.045" />
            <geometry>
                <box size="0.017 0.30100000000000005 0.09" />
            </geometry>
            <material name="orange">
                <color rgba="1 0.5088 0.0468 1" />
            </material>
        </visual>
        <collision>
            <origin rpy="0 0 0" xyz="0.0085 0.15050000000000002 0.045" />
            <geometry>
                <box size="0.017 0.30100000000000005 0.09" />
            </geometry>
        </collision>
        <!-- This is required for Gazebo. -->
        <inertial>
            <mass value="1.0" />
            <origin rpy="0 0 0" xyz="0.0085 0.30100000000000005 0.045" />
            <inertia ixx="0.0" ixy="0.0" ixz="0.0" iyy="0.0" iyz="0.0" izz="0.0" />
        </inertial>
    </link>
    <gazebo reference="box_43_leftside">
        <material>Gazebo/Orange</material>
    </gazebo>
    <joint name="box_43_leftside" type="fixed">
        <parent link="box_43" />
        <child link="box_43_leftside" />
        <axis xyz="0 0 1" />
        <origin rpy="0 0 0" xyz="0 0.017  0.013" />
    </joint>
    <link name="box_43_rightside">
        <!-- w is in x, l is in y, h is in z -->
        <visual>
            <origin rpy="0 0 0" xyz="0.0085 0.15050000000000002 0.045" />
            <geometry>
                <box size="0.017 0.30100000000000005 0.09" />
            </geometry>
            <material name="orange">
                <color rgba="1 0.5088 0.0468 1" />
            </material>
        </visual>
        <collision>
            <origin rpy="0 0 0" xyz="0.0085 0.15050000000000002 0.045" />
            <geometry>
                <box size="0.017 0.30100000000000005 0.09" />
            </geometry>
        </collision>
        <!-- This is required for Gazebo. -->
        <inertial>
            <mass value="1.0" />
            <origin rpy="0 0 0" xyz="0.0085 0.30100000000000005 0.045" />
            <inertia ixx="0.0" ixy="0.0" ixz="0.0" iyy="0.0" iyz="0.0" izz="0.0" />
        </inertial>
    </link>
    <gazebo reference="box_43_rightside">
        <material>Gazebo/Orange</material>
    </gazebo>
    <joint name="box_43_rightside" type="fixed">
        <parent link="box_43" />
        <child link="box_43_rightside" />
        <axis xyz="0 0 1" />
        <origin rpy="0 0 0" xyz="0.318      0.017      0.013" />
    </joint>
    <link name="box_43_bottom" />
    <joint name="box_43_bottom_joint" type="fixed">
        <parent link="box_43" />
        <child link="box_43_bottom" />
        <origin rpy="0 0 0" xyz="0.017 0.017 0.013" />
    </joint>
    <link name="box_43_center_bottom" />
    <joint name="box_43_center_bottom_joint" type="fixed">
        <parent link="box_43" />
        <child link="box_43_center_bottom" />
        <origin rpy="0 0 0" xyz="0.1675 0.1675 0.013" />
    </joint>
    <link name="box_43_lower_left_top" />
    <joint name="box_43_lower_left_top_joint" type="fixed">
        <parent link="box_43" />
        <child link="box_43_lower_left_top" />
        <origin rpy="0 0 0" xyz="0 0 0.103" />
    </joint>
    <link name="box_43_lower_right_top" />
    <joint name="box_43_lower_right_top_joint" type="fixed">
        <parent link="box_43" />
        <child link="box_43_lower_right_top" />
        <origin rpy="0 0 0" xyz="0.335 0 0.103" />
    </joint>
    <link name="box_43_upper_left_top" />
    <joint name="box_43_upper_left_top_joint" type="fixed">
        <parent link="box_43" />
        <child link="box_43_upper_left_top" />
        <origin rpy="0 0 0" xyz="0 0.335 0.103" />
    </joint>
    <link name="box_43_upper_right_top" />
    <joint name="box_43_upper_right_top_joint" type="fixed">
        <parent link="box_43" />
        <child link="box_43_upper_right_top" />
        <origin rpy="0 0 0" xyz="0.335 0.335 0.103" />
    </joint>
    <link name="box_43_center_top" />
    <joint name="box_43_center_top_joint" type="fixed">
        <parent link="box_43" />
        <child link="box_43_center_top" />
        <origin rpy="0 0 0" xyz="0.1675 0.1675 0.133" />
    </joint>
    <link name="box_3">
        <!-- w is in x, l is in y, h is in z -->
        <visual>
            <origin rpy="0 0 0" xyz="0.1675 0.1675 0.0065" />
            <geometry>
                <box size="0.335 0.335 0.013" />
            </geometry>
            <material name="orange">
                <color rgba="1 0.5088 0.0468 1" />
            </material>
        </visual>
        <collision>
            <origin rpy="0 0 0" xyz="0.1675 0.1675 0.0065" />
            <geometry>
                <box size="0.335 0.335 0.013" />
            </geometry>
        </collision>
        <!-- This is required for Gazebo. -->
        <inertial>
            <mass value="1.0" />
            <origin rpy="0 0 0" xyz="0.1675 0.335 0.0065" />
            <inertia ixx="0.0" ixy="0.0" ixz="0.0" iyy="0.0" iyz="0.0" izz="0.0" />
        </inertial>
    </link>
    <gazebo reference="box_3">
        <material>Gazebo/Orange</material>
    </gazebo>
    <joint name="box_3" type="fixed">
        <parent link="rack_t1_lower" />
        <child link="box_3" />
        <axis xyz="0 0 1" />
        <origin rpy="0 0 0" xyz="0.08499999999999996 0 0" />
    </joint>
    <link name="box_3_frontside">
        <!-- w is in x, l is in y, h is in z -->
        <visual>
            <origin rpy="0 0 0" xyz="0.1675 0.0085 0.045" />
            <geometry>
                <box size="0.335 0.017 0.09" />
            </geometry>
            <material name="orange">
                <color rgba="1 0.5088 0.0468 1" />
            </material>
        </visual>
        <collision>
            <origin rpy="0 0 0" xyz="0.1675 0.0085 0.045" />
            <geometry>
                <box size="0.335 0.017 0.09" />
            </geometry>
        </collision>
        <!-- This is required for Gazebo. -->
        <inertial>
            <mass value="1.0" />
            <origin rpy="0 0 0" xyz="0.1675 0.017 0.045" />
            <inertia ixx="0.0" ixy="0.0" ixz="0.0" iyy="0.0" iyz="0.0" izz="0.0" />
        </inertial>
    </link>
    <gazebo reference="box_3_frontside">
        <material>Gazebo/Orange</material>
    </gazebo>
    <joint name="box_3_frontside" type="fixed">
        <parent link="box_3" />
        <child link="box_3_frontside" />
        <axis xyz="0 0 1" />
        <origin rpy="0 0 0" xyz="0 0 0.013" />
    </joint>
    <link name="box_3_backside">
        <!-- w is in x, l is in y, h is in z -->
        <visual>
            <origin rpy="0 0 0" xyz="0.1675 0.0085 0.045" />
            <geometry>
                <box size="0.335 0.017 0.09" />
            </geometry>
            <material name="orange">
                <color rgba="1 0.5088 0.0468 1" />
            </material>
        </visual>
        <collision>
            <origin rpy="0 0 0" xyz="0.1675 0.0085 0.045" />
            <geometry>
                <box size="0.335 0.017 0.09" />
            </geometry>
        </collision>
        <!-- This is required for Gazebo. -->
        <inertial>
            <mass value="1.0" />
            <origin rpy="0 0 0" xyz="0.1675 0.017 0.045" />
            <inertia ixx="0.0" ixy="0.0" ixz="0.0" iyy="0.0" iyz="0.0" izz="0.0" />
        </inertial>
    </link>
    <gazebo reference="box_3_backside">
        <material>Gazebo/Orange</material>
    </gazebo>
    <joint name="box_3_backside" type="fixed">
        <parent link="box_3" />
        <child link="box_3_backside" />
        <axis xyz="0 0 1" />
        <origin rpy="0 0 0" xyz="0 0.318 0.013" />
    </joint>
    <link name="box_3_leftside">
        <!-- w is in x, l is in y, h is in z -->
        <visual>
            <origin rpy="0 0 0" xyz="0.0085 0.15050000000000002 0.045" />
            <geometry>
                <box size="0.017 0.30100000000000005 0.09" />
            </geometry>
            <material name="orange">
                <color rgba="1 0.5088 0.0468 1" />
            </material>
        </visual>
        <collision>
            <origin rpy="0 0 0" xyz="0.0085 0.15050000000000002 0.045" />
            <geometry>
                <box size="0.017 0.30100000000000005 0.09" />
            </geometry>
        </collision>
        <!-- This is required for Gazebo. -->
        <inertial>
            <mass value="1.0" />
            <origin rpy="0 0 0" xyz="0.0085 0.30100000000000005 0.045" />
            <inertia ixx="0.0" ixy="0.0" ixz="0.0" iyy="0.0" iyz="0.0" izz="0.0" />
        </inertial>
    </link>
    <gazebo reference="box_3_leftside">
        <material>Gazebo/Orange</material>
    </gazebo>
    <joint name="box_3_leftside" type="fixed">
        <parent link="box_3" />
        <child link="box_3_leftside" />
        <axis xyz="0 0 1" />
        <origin rpy="0 0 0" xyz="0 0.017  0.013" />
    </joint>
    <link name="box_3_rightside">
        <!-- w is in x, l is in y, h is in z -->
        <visual>
            <origin rpy="0 0 0" xyz="0.0085 0.15050000000000002 0.045" />
            <geometry>
                <box size="0.017 0.30100000000000005 0.09" />
            </geometry>
            <material name="orange">
                <color rgba="1 0.5088 0.0468 1" />
            </material>
        </visual>
        <collision>
            <origin rpy="0 0 0" xyz="0.0085 0.15050000000000002 0.045" />
            <geometry>
                <box size="0.017 0.30100000000000005 0.09" />
            </geometry>
        </collision>
        <!-- This is required for Gazebo. -->
        <inertial>
            <mass value="1.0" />
            <origin rpy="0 0 0" xyz="0.0085 0.30100000000000005 0.045" />
            <inertia ixx="0.0" ixy="0.0" ixz="0.0" iyy="0.0" iyz="0.0" izz="0.0" />
        </inertial>
    </link>
    <gazebo reference="box_3_rightside">
        <material>Gazebo/Orange</material>
    </gazebo>
    <joint name="box_3_rightside" type="fixed">
        <parent link="box_3" />
        <child link="box_3_rightside" />
        <axis xyz="0 0 1" />
        <origin rpy="0 0 0" xyz="0.318      0.017      0.013" />
    </joint>
    <link name="box_3_bottom" />
    <joint name="box_3_bottom_joint" type="fixed">
        <parent link="box_3" />
        <child link="box_3_bottom" />
        <origin rpy="0 0 0" xyz="0.017 0.017 0.013" />
    </joint>
    <link name="box_3_center_bottom" />
    <joint name="box_3_center_bottom_joint" type="fixed">
        <parent link="box_3" />
        <child link="box_3_center_bottom" />
        <origin rpy="0 0 0" xyz="0.1675 0.1675 0.013" />
    </joint>
    <link name="box_3_lower_left_top" />
    <joint name="box_3_lower_left_top_joint" type="fixed">
        <parent link="box_3" />
        <child link="box_3_lower_left_top" />
        <origin rpy="0 0 0" xyz="0 0 0.103" />
    </joint>
    <link name="box_3_lower_right_top" />
    <joint name="box_3_lower_right_top_joint" type="fixed">
        <parent link="box_3" />
        <child link="box_3_lower_right_top" />
        <origin rpy="0 0 0" xyz="0.335 0 0.103" />
    </joint>
    <link name="box_3_upper_left_top" />
    <joint name="box_3_upper_left_top_joint" type="fixed">
        <parent link="box_3" />
        <child link="box_3_upper_left_top" />
        <origin rpy="0 0 0" xyz="0 0.335 0.103" />
    </joint>
    <link name="box_3_upper_right_top" />
    <joint name="box_3_upper_right_top_joint" type="fixed">
        <parent link="box_3" />
        <child link="box_3_upper_right_top" />
        <origin rpy="0 0 0" xyz="0.335 0.335 0.103" />
    </joint>
    <link name="box_3_center_top" />
    <joint name="box_3_center_top_joint" type="fixed">
        <parent link="box_3" />
        <child link="box_3_center_top" />
        <origin rpy="0 0 0" xyz="0.1675 0.1675 0.133" />
    </joint>
    <link name="box_4">
        <!-- w is in x, l is in y, h is in z -->
        <visual>
            <origin rpy="0 0 0" xyz="0.1675 0.1675 0.0065" />
            <geometry>
                <box size="0.335 0.335 0.013" />
            </geometry>
            <material name="orange">
                <color rgba="1 0.5088 0.0468 1" />
            </material>
        </visual>
        <collision>
            <origin rpy="0 0 0" xyz="0.1675 0.1675 0.0065" />
            <geometry>
                <box size="0.335 0.335 0.013" />
            </geometry>
        </collision>
        <!-- This is required for Gazebo. -->
        <inertial>
            <mass value="1.0" />
            <origin rpy="0 0 0" xyz="0.1675 0.335 0.0065" />
            <inertia ixx="0.0" ixy="0.0" ixz="0.0" iyy="0.0" iyz="0.0" izz="0.0" />
        </inertial>
    </link>
    <gazebo reference="box_4">
        <material>Gazebo/Orange</material>
    </gazebo>
    <joint name="box_4" type="fixed">
        <parent link="rack_t1_lower" />
        <child link="box_4" />
        <axis xyz="0 0 1" />
        <origin rpy="0 0 0" xyz="0.43 0 0" />
    </joint>
    <link name="box_4_frontside">
        <!-- w is in x, l is in y, h is in z -->
        <visual>
            <origin rpy="0 0 0" xyz="0.1675 0.0085 0.045" />
            <geometry>
                <box size="0.335 0.017 0.09" />
            </geometry>
            <material name="orange">
                <color rgba="1 0.5088 0.0468 1" />
            </material>
        </visual>
        <collision>
            <origin rpy="0 0 0" xyz="0.1675 0.0085 0.045" />
            <geometry>
                <box size="0.335 0.017 0.09" />
            </geometry>
        </collision>
        <!-- This is required for Gazebo. -->
        <inertial>
            <mass value="1.0" />
            <origin rpy="0 0 0" xyz="0.1675 0.017 0.045" />
            <inertia ixx="0.0" ixy="0.0" ixz="0.0" iyy="0.0" iyz="0.0" izz="0.0" />
        </inertial>
    </link>
    <gazebo reference="box_4_frontside">
        <material>Gazebo/Orange</material>
    </gazebo>
    <joint name="box_4_frontside" type="fixed">
        <parent link="box_4" />
        <child link="box_4_frontside" />
        <axis xyz="0 0 1" />
        <origin rpy="0 0 0" xyz="0 0 0.013" />
    </joint>
    <link name="box_4_backside">
        <!-- w is in x, l is in y, h is in z -->
        <visual>
            <origin rpy="0 0 0" xyz="0.1675 0.0085 0.045" />
            <geometry>
                <box size="0.335 0.017 0.09" />
            </geometry>
            <material name="orange">
                <color rgba="1 0.5088 0.0468 1" />
            </material>
        </visual>
        <collision>
            <origin rpy="0 0 0" xyz="0.1675 0.0085 0.045" />
            <geometry>
                <box size="0.335 0.017 0.09" />
            </geometry>
        </collision>
        <!-- This is required for Gazebo. -->
        <inertial>
            <mass value="1.0" />
            <origin rpy="0 0 0" xyz="0.1675 0.017 0.045" />
            <inertia ixx="0.0" ixy="0.0" ixz="0.0" iyy="0.0" iyz="0.0" izz="0.0" />
        </inertial>
    </link>
    <gazebo reference="box_4_backside">
        <material>Gazebo/Orange</material>
    </gazebo>
    <joint name="box_4_backside" type="fixed">
        <parent link="box_4" />
        <child link="box_4_backside" />
        <axis xyz="0 0 1" />
        <origin rpy="0 0 0" xyz="0 0.318 0.013" />
    </joint>
    <link name="box_4_leftside">
        <!-- w is in x, l is in y, h is in z -->
        <visual>
            <origin rpy="0 0 0" xyz="0.0085 0.15050000000000002 0.045" />
            <geometry>
                <box size="0.017 0.30100000000000005 0.09" />
            </geometry>
            <material name="orange">
                <color rgba="1 0.5088 0.0468 1" />
            </material>
        </visual>
        <collision>
            <origin rpy="0 0 0" xyz="0.0085 0.15050000000000002 0.045" />
            <geometry>
                <box size="0.017 0.30100000000000005 0.09" />
            </geometry>
        </collision>
        <!-- This is required for Gazebo. -->
        <inertial>
            <mass value="1.0" />
            <origin rpy="0 0 0" xyz="0.0085 0.30100000000000005 0.045" />
            <inertia ixx="0.0" ixy="0.0" ixz="0.0" iyy="0.0" iyz="0.0" izz="0.0" />
        </inertial>
    </link>
    <gazebo reference="box_4_leftside">
        <material>Gazebo/Orange</material>
    </gazebo>
    <joint name="box_4_leftside" type="fixed">
        <parent link="box_4" />
        <child link="box_4_leftside" />
        <axis xyz="0 0 1" />
        <origin rpy="0 0 0" xyz="0 0.017  0.013" />
    </joint>
    <link name="box_4_rightside">
        <!-- w is in x, l is in y, h is in z -->
        <visual>
            <origin rpy="0 0 0" xyz="0.0085 0.15050000000000002 0.045" />
            <geometry>
                <box size="0.017 0.30100000000000005 0.09" />
            </geometry>
            <material name="orange">
                <color rgba="1 0.5088 0.0468 1" />
            </material>
        </visual>
        <collision>
            <origin rpy="0 0 0" xyz="0.0085 0.15050000000000002 0.045" />
            <geometry>
                <box size="0.017 0.30100000000000005 0.09" />
            </geometry>
        </collision>
        <!-- This is required for Gazebo. -->
        <inertial>
            <mass value="1.0" />
            <origin rpy="0 0 0" xyz="0.0085 0.30100000000000005 0.045" />
            <inertia ixx="0.0" ixy="0.0" ixz="0.0" iyy="0.0" iyz="0.0" izz="0.0" />
        </inertial>
    </link>
    <gazebo reference="box_4_rightside">
        <material>Gazebo/Orange</material>
    </gazebo>
    <joint name="box_4_rightside" type="fixed">
        <parent link="box_4" />
        <child link="box_4_rightside" />
        <axis xyz="0 0 1" />
        <origin rpy="0 0 0" xyz="0.318      0.017      0.013" />
    </joint>
    <link name="box_4_bottom" />
    <joint name="box_4_bottom_joint" type="fixed">
        <parent link="box_4" />
        <child link="box_4_bottom" />
        <origin rpy="0 0 0" xyz="0.017 0.017 0.013" />
    </joint>
    <link name="box_4_center_bottom" />
    <joint name="box_4_center_bottom_joint" type="fixed">
        <parent link="box_4" />
        <child link="box_4_center_bottom" />
        <origin rpy="0 0 0" xyz="0.1675 0.1675 0.013" />
    </joint>
    <link name="box_4_lower_left_top" />
    <joint name="box_4_lower_left_top_joint" type="fixed">
        <parent link="box_4" />
        <child link="box_4_lower_left_top" />
        <origin rpy="0 0 0" xyz="0 0 0.103" />
    </joint>
    <link name="box_4_lower_right_top" />
    <joint name="box_4_lower_right_top_joint" type="fixed">
        <parent link="box_4" />
        <child link="box_4_lower_right_top" />
        <origin rpy="0 0 0" xyz="0.335 0 0.103" />
    </joint>
    <link name="box_4_upper_left_top" />
    <joint name="box_4_upper_left_top_joint" type="fixed">
        <parent link="box_4" />
        <child link="box_4_upper_left_top" />
        <origin rpy="0 0 0" xyz="0 0.335 0.103" />
    </joint>
    <link name="box_4_upper_right_top" />
    <joint name="box_4_upper_right_top_joint" type="fixed">
        <parent link="box_4" />
        <child link="box_4_upper_right_top" />
        <origin rpy="0 0 0" xyz="0.335 0.335 0.103" />
    </joint>
    <link name="box_4_center_top" />
    <joint name="box_4_center_top_joint" type="fixed">
        <parent link="box_4" />
        <child link="box_4_center_top" />
        <origin rpy="0 0 0" xyz="0.1675 0.1675 0.133" />
    </joint>
    <link name="box_22">
        <!-- w is in x, l is in y, h is in z -->
        <visual>
            <origin rpy="0 0 0" xyz="0.1675 0.1675 0.0065" />
            <geometry>
                <box size="0.335 0.335 0.013" />
            </geometry>
            <material name="orange">
                <color rgba="1 0.5088 0.0468 1" />
            </material>
        </visual>
        <collision>
            <origin rpy="0 0 0" xyz="0.1675 0.1675 0.0065" />
            <geometry>
                <box size="0.335 0.335 0.013" />
            </geometry>
        </collision>
        <!-- This is required for Gazebo. -->
        <inertial>
            <mass value="1.0" />
            <origin rpy="0 0 0" xyz="0.1675 0.335 0.0065" />
            <inertia ixx="0.0" ixy="0.0" ixz="0.0" iyy="0.0" iyz="0.0" izz="0.0" />
        </inertial>
    </link>
    <gazebo reference="box_22">
        <material>Gazebo/Orange</material>
    </gazebo>
    <joint name="box_22" type="fixed">
        <parent link="rack_t0_upper" />
        <child link="box_22" />
        <axis xyz="0 0 1" />
        <origin rpy="0 0 0" xyz="0.08499999999999996 0 0" />
    </joint>
    <link name="box_22_frontside">
        <!-- w is in x, l is in y, h is in z -->
        <visual>
            <origin rpy="0 0 0" xyz="0.1675 0.0085 0.091" />
            <geometry>
                <box size="0.335 0.017 0.182" />
            </geometry>
            <material name="orange">
                <color rgba="1 0.5088 0.0468 1" />
            </material>
        </visual>
        <collision>
            <origin rpy="0 0 0" xyz="0.1675 0.0085 0.091" />
            <geometry>
                <box size="0.335 0.017 0.182" />
            </geometry>
        </collision>
        <!-- This is required for Gazebo. -->
        <inertial>
            <mass value="1.0" />
            <origin rpy="0 0 0" xyz="0.1675 0.017 0.091" />
            <inertia ixx="0.0" ixy="0.0" ixz="0.0" iyy="0.0" iyz="0.0" izz="0.0" />
        </inertial>
    </link>
    <gazebo reference="box_22_frontside">
        <material>Gazebo/Orange</material>
    </gazebo>
    <joint name="box_22_frontside" type="fixed">
        <parent link="box_22" />
        <child link="box_22_frontside" />
        <axis xyz="0 0 1" />
        <origin rpy="0 0 0" xyz="0 0 0.013" />
    </joint>
    <link name="box_22_backside">
        <!-- w is in x, l is in y, h is in z -->
        <visual>
            <origin rpy="0 0 0" xyz="0.1675 0.0085 0.091" />
            <geometry>
                <box size="0.335 0.017 0.182" />
            </geometry>
            <material name="orange">
                <color rgba="1 0.5088 0.0468 1" />
            </material>
        </visual>
        <collision>
            <origin rpy="0 0 0" xyz="0.1675 0.0085 0.091" />
            <geometry>
                <box size="0.335 0.017 0.182" />
            </geometry>
        </collision>
        <!-- This is required for Gazebo. -->
        <inertial>
            <mass value="1.0" />
            <origin rpy="0 0 0" xyz="0.1675 0.017 0.091" />
            <inertia ixx="0.0" ixy="0.0" ixz="0.0" iyy="0.0" iyz="0.0" izz="0.0" />
        </inertial>
    </link>
    <gazebo reference="box_22_backside">
        <material>Gazebo/Orange</material>
    </gazebo>
    <joint name="box_22_backside" type="fixed">
        <parent link="box_22" />
        <child link="box_22_backside" />
        <axis xyz="0 0 1" />
        <origin rpy="0 0 0" xyz="0 0.318 0.013" />
    </joint>
    <link name="box_22_leftside">
        <!-- w is in x, l is in y, h is in z -->
        <visual>
            <origin rpy="0 0 0" xyz="0.0085 0.15050000000000002 0.091" />
            <geometry>
                <box size="0.017 0.30100000000000005 0.182" />
            </geometry>
            <material name="orange">
                <color rgba="1 0.5088 0.0468 1" />
            </material>
        </visual>
        <collision>
            <origin rpy="0 0 0" xyz="0.0085 0.15050000000000002 0.091" />
            <geometry>
                <box size="0.017 0.30100000000000005 0.182" />
            </geometry>
        </collision>
        <!-- This is required for Gazebo. -->
        <inertial>
            <mass value="1.0" />
            <origin rpy="0 0 0" xyz="0.0085 0.30100000000000005 0.091" />
            <inertia ixx="0.0" ixy="0.0" ixz="0.0" iyy="0.0" iyz="0.0" izz="0.0" />
        </inertial>
    </link>
    <gazebo reference="box_22_leftside">
        <material>Gazebo/Orange</material>
    </gazebo>
    <joint name="box_22_leftside" type="fixed">
        <parent link="box_22" />
        <child link="box_22_leftside" />
        <axis xyz="0 0 1" />
        <origin rpy="0 0 0" xyz="0 0.017  0.013" />
    </joint>
    <link name="box_22_rightside">
        <!-- w is in x, l is in y, h is in z -->
        <visual>
            <origin rpy="0 0 0" xyz="0.0085 0.15050000000000002 0.091" />
            <geometry>
                <box size="0.017 0.30100000000000005 0.182" />
            </geometry>
            <material name="orange">
                <color rgba="1 0.5088 0.0468 1" />
            </material>
        </visual>
        <collision>
            <origin rpy="0 0 0" xyz="0.0085 0.15050000000000002 0.091" />
            <geometry>
                <box size="0.017 0.30100000000000005 0.182" />
            </geometry>
        </collision>
        <!-- This is required for Gazebo. -->
        <inertial>
            <mass value="1.0" />
            <origin rpy="0 0 0" xyz="0.0085 0.30100000000000005 0.091" />
            <inertia ixx="0.0" ixy="0.0" ixz="0.0" iyy="0.0" iyz="0.0" izz="0.0" />
        </inertial>
    </link>
    <gazebo reference="box_22_rightside">
        <material>Gazebo/Orange</material>
    </gazebo>
    <joint name="box_22_rightside" type="fixed">
        <parent link="box_22" />
        <child link="box_22_rightside" />
        <axis xyz="0 0 1" />
        <origin rpy="0 0 0" xyz="0.318      0.017      0.013" />
    </joint>
    <link name="box_22_bottom" />
    <joint name="box_22_bottom_joint" type="fixed">
        <parent link="box_22" />
        <child link="box_22_bottom" />
        <origin rpy="0 0 0" xyz="0.017 0.017 0.013" />
    </joint>
    <link name="box_22_center_bottom" />
    <joint name="box_22_center_bottom_joint" type="fixed">
        <parent link="box_22" />
        <child link="box_22_center_bottom" />
        <origin rpy="0 0 0" xyz="0.1675 0.1675 0.013" />
    </joint>
    <link name="box_22_lower_left_top" />
    <joint name="box_22_lower_left_top_joint" type="fixed">
        <parent link="box_22" />
        <child link="box_22_lower_left_top" />
        <origin rpy="0 0 0" xyz="0 0 0.195" />
    </joint>
    <link name="box_22_lower_right_top" />
    <joint name="box_22_lower_right_top_joint" type="fixed">
        <parent link="box_22" />
        <child link="box_22_lower_right_top" />
        <origin rpy="0 0 0" xyz="0.335 0 0.195" />
    </joint>
    <link name="box_22_upper_left_top" />
    <joint name="box_22_upper_left_top_joint" type="fixed">
        <parent link="box_22" />
        <child link="box_22_upper_left_top" />
        <origin rpy="0 0 0" xyz="0 0.335 0.195" />
    </joint>
    <link name="box_22_upper_right_top" />
    <joint name="box_22_upper_right_top_joint" type="fixed">
        <parent link="box_22" />
        <child link="box_22_upper_right_top" />
        <origin rpy="0 0 0" xyz="0.335 0.335 0.195" />
    </joint>
    <link name="box_22_center_top" />
    <joint name="box_22_center_top_joint" type="fixed">
        <parent link="box_22" />
        <child link="box_22_center_top" />
        <origin rpy="0 0 0" xyz="0.1675 0.1675 0.225" />
    </joint>
    <link name="box_8">
        <!-- w is in x, l is in y, h is in z -->
        <visual>
            <origin rpy="0 0 0" xyz="0.1675 0.1675 0.0065" />
            <geometry>
                <box size="0.335 0.335 0.013" />
            </geometry>
            <material name="orange">
                <color rgba="1 0.5088 0.0468 1" />
            </material>
        </visual>
        <collision>
            <origin rpy="0 0 0" xyz="0.1675 0.1675 0.0065" />
            <geometry>
                <box size="0.335 0.335 0.013" />
            </geometry>
        </collision>
        <!-- This is required for Gazebo. -->
        <inertial>
            <mass value="1.0" />
            <origin rpy="0 0 0" xyz="0.1675 0.335 0.0065" />
            <inertia ixx="0.0" ixy="0.0" ixz="0.0" iyy="0.0" iyz="0.0" izz="0.0" />
        </inertial>
    </link>
    <gazebo reference="box_8">
        <material>Gazebo/Orange</material>
    </gazebo>
    <joint name="box_8" type="fixed">
        <parent link="rack_t0_upper" />
        <child link="box_8" />
        <axis xyz="0 0 1" />
        <origin rpy="0 0 0" xyz="0.43 0 0" />
    </joint>
    <link name="box_8_frontside">
        <!-- w is in x, l is in y, h is in z -->
        <visual>
            <origin rpy="0 0 0" xyz="0.1675 0.0085 0.045" />
            <geometry>
                <box size="0.335 0.017 0.09" />
            </geometry>
            <material name="orange">
                <color rgba="1 0.5088 0.0468 1" />
            </material>
        </visual>
        <collision>
            <origin rpy="0 0 0" xyz="0.1675 0.0085 0.045" />
            <geometry>
                <box size="0.335 0.017 0.09" />
            </geometry>
        </collision>
        <!-- This is required for Gazebo. -->
        <inertial>
            <mass value="1.0" />
            <origin rpy="0 0 0" xyz="0.1675 0.017 0.045" />
            <inertia ixx="0.0" ixy="0.0" ixz="0.0" iyy="0.0" iyz="0.0" izz="0.0" />
        </inertial>
    </link>
    <gazebo reference="box_8_frontside">
        <material>Gazebo/Orange</material>
    </gazebo>
    <joint name="box_8_frontside" type="fixed">
        <parent link="box_8" />
        <child link="box_8_frontside" />
        <axis xyz="0 0 1" />
        <origin rpy="0 0 0" xyz="0 0 0.013" />
    </joint>
    <link name="box_8_backside">
        <!-- w is in x, l is in y, h is in z -->
        <visual>
            <origin rpy="0 0 0" xyz="0.1675 0.0085 0.045" />
            <geometry>
                <box size="0.335 0.017 0.09" />
            </geometry>
            <material name="orange">
                <color rgba="1 0.5088 0.0468 1" />
            </material>
        </visual>
        <collision>
            <origin rpy="0 0 0" xyz="0.1675 0.0085 0.045" />
            <geometry>
                <box size="0.335 0.017 0.09" />
            </geometry>
        </collision>
        <!-- This is required for Gazebo. -->
        <inertial>
            <mass value="1.0" />
            <origin rpy="0 0 0" xyz="0.1675 0.017 0.045" />
            <inertia ixx="0.0" ixy="0.0" ixz="0.0" iyy="0.0" iyz="0.0" izz="0.0" />
        </inertial>
    </link>
    <gazebo reference="box_8_backside">
        <material>Gazebo/Orange</material>
    </gazebo>
    <joint name="box_8_backside" type="fixed">
        <parent link="box_8" />
        <child link="box_8_backside" />
        <axis xyz="0 0 1" />
        <origin rpy="0 0 0" xyz="0 0.318 0.013" />
    </joint>
    <link name="box_8_leftside">
        <!-- w is in x, l is in y, h is in z -->
        <visual>
            <origin rpy="0 0 0" xyz="0.0085 0.15050000000000002 0.045" />
            <geometry>
                <box size="0.017 0.30100000000000005 0.09" />
            </geometry>
            <material name="orange">
                <color rgba="1 0.5088 0.0468 1" />
            </material>
        </visual>
        <collision>
            <origin rpy="0 0 0" xyz="0.0085 0.15050000000000002 0.045" />
            <geometry>
                <box size="0.017 0.30100000000000005 0.09" />
            </geometry>
        </collision>
        <!-- This is required for Gazebo. -->
        <inertial>
            <mass value="1.0" />
            <origin rpy="0 0 0" xyz="0.0085 0.30100000000000005 0.045" />
            <inertia ixx="0.0" ixy="0.0" ixz="0.0" iyy="0.0" iyz="0.0" izz="0.0" />
        </inertial>
    </link>
    <gazebo reference="box_8_leftside">
        <material>Gazebo/Orange</material>
    </gazebo>
    <joint name="box_8_leftside" type="fixed">
        <parent link="box_8" />
        <child link="box_8_leftside" />
        <axis xyz="0 0 1" />
        <origin rpy="0 0 0" xyz="0 0.017  0.013" />
    </joint>
    <link name="box_8_rightside">
        <!-- w is in x, l is in y, h is in z -->
        <visual>
            <origin rpy="0 0 0" xyz="0.0085 0.15050000000000002 0.045" />
            <geometry>
                <box size="0.017 0.30100000000000005 0.09" />
            </geometry>
            <material name="orange">
                <color rgba="1 0.5088 0.0468 1" />
            </material>
        </visual>
        <collision>
            <origin rpy="0 0 0" xyz="0.0085 0.15050000000000002 0.045" />
            <geometry>
                <box size="0.017 0.30100000000000005 0.09" />
            </geometry>
        </collision>
        <!-- This is required for Gazebo. -->
        <inertial>
            <mass value="1.0" />
            <origin rpy="0 0 0" xyz="0.0085 0.30100000000000005 0.045" />
            <inertia ixx="0.0" ixy="0.0" ixz="0.0" iyy="0.0" iyz="0.0" izz="0.0" />
        </inertial>
    </link>
    <gazebo reference="box_8_rightside">
        <material>Gazebo/Orange</material>
    </gazebo>
    <joint name="box_8_rightside" type="fixed">
        <parent link="box_8" />
        <child link="box_8_rightside" />
        <axis xyz="0 0 1" />
        <origin rpy="0 0 0" xyz="0.318      0.017      0.013" />
    </joint>
    <link name="box_8_bottom" />
    <joint name="box_8_bottom_joint" type="fixed">
        <parent link="box_8" />
        <child link="box_8_bottom" />
        <origin rpy="0 0 0" xyz="0.017 0.017 0.013" />
    </joint>
    <link name="box_8_center_bottom" />
    <joint name="box_8_center_bottom_joint" type="fixed">
        <parent link="box_8" />
        <child link="box_8_center_bottom" />
        <origin rpy="0 0 0" xyz="0.1675 0.1675 0.013" />
    </joint>
    <link name="box_8_lower_left_top" />
    <joint name="box_8_lower_left_top_joint" type="fixed">
        <parent link="box_8" />
        <child link="box_8_lower_left_top" />
        <origin rpy="0 0 0" xyz="0 0 0.103" />
    </joint>
    <link name="box_8_lower_right_top" />
    <joint name="box_8_lower_right_top_joint" type="fixed">
        <parent link="box_8" />
        <child link="box_8_lower_right_top" />
        <origin rpy="0 0 0" xyz="0.335 0 0.103" />
    </joint>
    <link name="box_8_upper_left_top" />
    <joint name="box_8_upper_left_top_joint" type="fixed">
        <parent link="box_8" />
        <child link="box_8_upper_left_top" />
        <origin rpy="0 0 0" xyz="0 0.335 0.103" />
    </joint>
    <link name="box_8_upper_right_top" />
    <joint name="box_8_upper_right_top_joint" type="fixed">
        <parent link="box_8" />
        <child link="box_8_upper_right_top" />
        <origin rpy="0 0 0" xyz="0.335 0.335 0.103" />
    </joint>
    <link name="box_8_center_top" />
    <joint name="box_8_center_top_joint" type="fixed">
        <parent link="box_8" />
        <child link="box_8_center_top" />
        <origin rpy="0 0 0" xyz="0.1675 0.1675 0.133" />
    </joint>
    <link name="box_1">
        <!-- w is in x, l is in y, h is in z -->
        <visual>
            <origin rpy="0 0 0" xyz="0.1675 0.1675 0.0065" />
            <geometry>
                <box size="0.335 0.335 0.013" />
            </geometry>
            <material name="orange">
                <color rgba="1 0.5088 0.0468 1" />
            </material>
        </visual>
        <collision>
            <origin rpy="0 0 0" xyz="0.1675 0.1675 0.0065" />
            <geometry>
                <box size="0.335 0.335 0.013" />
            </geometry>
        </collision>
        <!-- This is required for Gazebo. -->
        <inertial>
            <mass value="1.0" />
            <origin rpy="0 0 0" xyz="0.1675 0.335 0.0065" />
            <inertia ixx="0.0" ixy="0.0" ixz="0.0" iyy="0.0" iyz="0.0" izz="0.0" />
        </inertial>
    </link>
    <gazebo reference="box_1">
        <material>Gazebo/Orange</material>
    </gazebo>
    <joint name="box_1" type="fixed">
        <parent link="rack_t0_lower" />
        <child link="box_1" />
        <axis xyz="0 0 1" />
        <origin rpy="0 0 0" xyz="0.08499999999999996 0 0" />
    </joint>
    <link name="box_1_frontside">
        <!-- w is in x, l is in y, h is in z -->
        <visual>
            <origin rpy="0 0 0" xyz="0.1675 0.0085 0.091" />
            <geometry>
                <box size="0.335 0.017 0.182" />
            </geometry>
            <material name="orange">
                <color rgba="1 0.5088 0.0468 1" />
            </material>
        </visual>
        <collision>
            <origin rpy="0 0 0" xyz="0.1675 0.0085 0.091" />
            <geometry>
                <box size="0.335 0.017 0.182" />
            </geometry>
        </collision>
        <!-- This is required for Gazebo. -->
        <inertial>
            <mass value="1.0" />
            <origin rpy="0 0 0" xyz="0.1675 0.017 0.091" />
            <inertia ixx="0.0" ixy="0.0" ixz="0.0" iyy="0.0" iyz="0.0" izz="0.0" />
        </inertial>
    </link>
    <gazebo reference="box_1_frontside">
        <material>Gazebo/Orange</material>
    </gazebo>
    <joint name="box_1_frontside" type="fixed">
        <parent link="box_1" />
        <child link="box_1_frontside" />
        <axis xyz="0 0 1" />
        <origin rpy="0 0 0" xyz="0 0 0.013" />
    </joint>
    <link name="box_1_backside">
        <!-- w is in x, l is in y, h is in z -->
        <visual>
            <origin rpy="0 0 0" xyz="0.1675 0.0085 0.091" />
            <geometry>
                <box size="0.335 0.017 0.182" />
            </geometry>
            <material name="orange">
                <color rgba="1 0.5088 0.0468 1" />
            </material>
        </visual>
        <collision>
            <origin rpy="0 0 0" xyz="0.1675 0.0085 0.091" />
            <geometry>
                <box size="0.335 0.017 0.182" />
            </geometry>
        </collision>
        <!-- This is required for Gazebo. -->
        <inertial>
            <mass value="1.0" />
            <origin rpy="0 0 0" xyz="0.1675 0.017 0.091" />
            <inertia ixx="0.0" ixy="0.0" ixz="0.0" iyy="0.0" iyz="0.0" izz="0.0" />
        </inertial>
    </link>
    <gazebo reference="box_1_backside">
        <material>Gazebo/Orange</material>
    </gazebo>
    <joint name="box_1_backside" type="fixed">
        <parent link="box_1" />
        <child link="box_1_backside" />
        <axis xyz="0 0 1" />
        <origin rpy="0 0 0" xyz="0 0.318 0.013" />
    </joint>
    <link name="box_1_leftside">
        <!-- w is in x, l is in y, h is in z -->
        <visual>
            <origin rpy="0 0 0" xyz="0.0085 0.15050000000000002 0.091" />
            <geometry>
                <box size="0.017 0.30100000000000005 0.182" />
            </geometry>
            <material name="orange">
                <color rgba="1 0.5088 0.0468 1" />
            </material>
        </visual>
        <collision>
            <origin rpy="0 0 0" xyz="0.0085 0.15050000000000002 0.091" />
            <geometry>
                <box size="0.017 0.30100000000000005 0.182" />
            </geometry>
        </collision>
        <!-- This is required for Gazebo. -->
        <inertial>
            <mass value="1.0" />
            <origin rpy="0 0 0" xyz="0.0085 0.30100000000000005 0.091" />
            <inertia ixx="0.0" ixy="0.0" ixz="0.0" iyy="0.0" iyz="0.0" izz="0.0" />
        </inertial>
    </link>
    <gazebo reference="box_1_leftside">
        <material>Gazebo/Orange</material>
    </gazebo>
    <joint name="box_1_leftside" type="fixed">
        <parent link="box_1" />
        <child link="box_1_leftside" />
        <axis xyz="0 0 1" />
        <origin rpy="0 0 0" xyz="0 0.017  0.013" />
    </joint>
    <link name="box_1_rightside">
        <!-- w is in x, l is in y, h is in z -->
        <visual>
            <origin rpy="0 0 0" xyz="0.0085 0.15050000000000002 0.091" />
            <geometry>
                <box size="0.017 0.30100000000000005 0.182" />
            </geometry>
            <material name="orange">
                <color rgba="1 0.5088 0.0468 1" />
            </material>
        </visual>
        <collision>
            <origin rpy="0 0 0" xyz="0.0085 0.15050000000000002 0.091" />
            <geometry>
                <box size="0.017 0.30100000000000005 0.182" />
            </geometry>
        </collision>
        <!-- This is required for Gazebo. -->
        <inertial>
            <mass value="1.0" />
            <origin rpy="0 0 0" xyz="0.0085 0.30100000000000005 0.091" />
            <inertia ixx="0.0" ixy="0.0" ixz="0.0" iyy="0.0" iyz="0.0" izz="0.0" />
        </inertial>
    </link>
    <gazebo reference="box_1_rightside">
        <material>Gazebo/Orange</material>
    </gazebo>
    <joint name="box_1_rightside" type="fixed">
        <parent link="box_1" />
        <child link="box_1_rightside" />
        <axis xyz="0 0 1" />
        <origin rpy="0 0 0" xyz="0.318      0.017      0.013" />
    </joint>
    <link name="box_1_bottom" />
    <joint name="box_1_bottom_joint" type="fixed">
        <parent link="box_1" />
        <child link="box_1_bottom" />
        <origin rpy="0 0 0" xyz="0.017 0.017 0.013" />
    </joint>
    <link name="box_1_center_bottom" />
    <joint name="box_1_center_bottom_joint" type="fixed">
        <parent link="box_1" />
        <child link="box_1_center_bottom" />
        <origin rpy="0 0 0" xyz="0.1675 0.1675 0.013" />
    </joint>
    <link name="box_1_lower_left_top" />
    <joint name="box_1_lower_left_top_joint" type="fixed">
        <parent link="box_1" />
        <child link="box_1_lower_left_top" />
        <origin rpy="0 0 0" xyz="0 0 0.195" />
    </joint>
    <link name="box_1_lower_right_top" />
    <joint name="box_1_lower_right_top_joint" type="fixed">
        <parent link="box_1" />
        <child link="box_1_lower_right_top" />
        <origin rpy="0 0 0" xyz="0.335 0 0.195" />
    </joint>
    <link name="box_1_upper_left_top" />
    <joint name="box_1_upper_left_top_joint" type="fixed">
        <parent link="box_1" />
        <child link="box_1_upper_left_top" />
        <origin rpy="0 0 0" xyz="0 0.335 0.195" />
    </joint>
    <link name="box_1_upper_right_top" />
    <joint name="box_1_upper_right_top_joint" type="fixed">
        <parent link="box_1" />
        <child link="box_1_upper_right_top" />
        <origin rpy="0 0 0" xyz="0.335 0.335 0.195" />
    </joint>
    <link name="box_1_center_top" />
    <joint name="box_1_center_top_joint" type="fixed">
        <parent link="box_1" />
        <child link="box_1_center_top" />
        <origin rpy="0 0 0" xyz="0.1675 0.1675 0.225" />
    </joint>
    <link name="box_2">
        <!-- w is in x, l is in y, h is in z -->
        <visual>
            <origin rpy="0 0 0" xyz="0.1675 0.1675 0.0065" />
            <geometry>
                <box size="0.335 0.335 0.013" />
            </geometry>
            <material name="orange">
                <color rgba="1 0.5088 0.0468 1" />
            </material>
        </visual>
        <collision>
            <origin rpy="0 0 0" xyz="0.1675 0.1675 0.0065" />
            <geometry>
                <box size="0.335 0.335 0.013" />
            </geometry>
        </collision>
        <!-- This is required for Gazebo. -->
        <inertial>
            <mass value="1.0" />
            <origin rpy="0 0 0" xyz="0.1675 0.335 0.0065" />
            <inertia ixx="0.0" ixy="0.0" ixz="0.0" iyy="0.0" iyz="0.0" izz="0.0" />
        </inertial>
    </link>
    <gazebo reference="box_2">
        <material>Gazebo/Orange</material>
    </gazebo>
    <joint name="box_2" type="fixed">
        <parent link="rack_t0_lower" />
        <child link="box_2" />
        <axis xyz="0 0 1" />
        <origin rpy="0 0 0" xyz="0.43 0 0" />
    </joint>
    <link name="box_2_frontside">
        <!-- w is in x, l is in y, h is in z -->
        <visual>
            <origin rpy="0 0 0" xyz="0.1675 0.0085 0.091" />
            <geometry>
                <box size="0.335 0.017 0.182" />
            </geometry>
            <material name="orange">
                <color rgba="1 0.5088 0.0468 1" />
            </material>
        </visual>
        <collision>
            <origin rpy="0 0 0" xyz="0.1675 0.0085 0.091" />
            <geometry>
                <box size="0.335 0.017 0.182" />
            </geometry>
        </collision>
        <!-- This is required for Gazebo. -->
        <inertial>
            <mass value="1.0" />
            <origin rpy="0 0 0" xyz="0.1675 0.017 0.091" />
            <inertia ixx="0.0" ixy="0.0" ixz="0.0" iyy="0.0" iyz="0.0" izz="0.0" />
        </inertial>
    </link>
    <gazebo reference="box_2_frontside">
        <material>Gazebo/Orange</material>
    </gazebo>
    <joint name="box_2_frontside" type="fixed">
        <parent link="box_2" />
        <child link="box_2_frontside" />
        <axis xyz="0 0 1" />
        <origin rpy="0 0 0" xyz="0 0 0.013" />
    </joint>
    <link name="box_2_backside">
        <!-- w is in x, l is in y, h is in z -->
        <visual>
            <origin rpy="0 0 0" xyz="0.1675 0.0085 0.091" />
            <geometry>
                <box size="0.335 0.017 0.182" />
            </geometry>
            <material name="orange">
                <color rgba="1 0.5088 0.0468 1" />
            </material>
        </visual>
        <collision>
            <origin rpy="0 0 0" xyz="0.1675 0.0085 0.091" />
            <geometry>
                <box size="0.335 0.017 0.182" />
            </geometry>
        </collision>
        <!-- This is required for Gazebo. -->
        <inertial>
            <mass value="1.0" />
            <origin rpy="0 0 0" xyz="0.1675 0.017 0.091" />
            <inertia ixx="0.0" ixy="0.0" ixz="0.0" iyy="0.0" iyz="0.0" izz="0.0" />
        </inertial>
    </link>
    <gazebo reference="box_2_backside">
        <material>Gazebo/Orange</material>
    </gazebo>
    <joint name="box_2_backside" type="fixed">
        <parent link="box_2" />
        <child link="box_2_backside" />
        <axis xyz="0 0 1" />
        <origin rpy="0 0 0" xyz="0 0.318 0.013" />
    </joint>
    <link name="box_2_leftside">
        <!-- w is in x, l is in y, h is in z -->
        <visual>
            <origin rpy="0 0 0" xyz="0.0085 0.15050000000000002 0.091" />
            <geometry>
                <box size="0.017 0.30100000000000005 0.182" />
            </geometry>
            <material name="orange">
                <color rgba="1 0.5088 0.0468 1" />
            </material>
        </visual>
        <collision>
            <origin rpy="0 0 0" xyz="0.0085 0.15050000000000002 0.091" />
            <geometry>
                <box size="0.017 0.30100000000000005 0.182" />
            </geometry>
        </collision>
        <!-- This is required for Gazebo. -->
        <inertial>
            <mass value="1.0" />
            <origin rpy="0 0 0" xyz="0.0085 0.30100000000000005 0.091" />
            <inertia ixx="0.0" ixy="0.0" ixz="0.0" iyy="0.0" iyz="0.0" izz="0.0" />
        </inertial>
    </link>
    <gazebo reference="box_2_leftside">
        <material>Gazebo/Orange</material>
    </gazebo>
    <joint name="box_2_leftside" type="fixed">
        <parent link="box_2" />
        <child link="box_2_leftside" />
        <axis xyz="0 0 1" />
        <origin rpy="0 0 0" xyz="0 0.017  0.013" />
    </joint>
    <link name="box_2_rightside">
        <!-- w is in x, l is in y, h is in z -->
        <visual>
            <origin rpy="0 0 0" xyz="0.0085 0.15050000000000002 0.091" />
            <geometry>
                <box size="0.017 0.30100000000000005 0.182" />
            </geometry>
            <material name="orange">
                <color rgba="1 0.5088 0.0468 1" />
            </material>
        </visual>
        <collision>
            <origin rpy="0 0 0" xyz="0.0085 0.15050000000000002 0.091" />
            <geometry>
                <box size="0.017 0.30100000000000005 0.182" />
            </geometry>
        </collision>
        <!-- This is required for Gazebo. -->
        <inertial>
            <mass value="1.0" />
            <origin rpy="0 0 0" xyz="0.0085 0.30100000000000005 0.091" />
            <inertia ixx="0.0" ixy="0.0" ixz="0.0" iyy="0.0" iyz="0.0" izz="0.0" />
        </inertial>
    </link>
    <gazebo reference="box_2_rightside">
        <material>Gazebo/Orange</material>
    </gazebo>
    <joint name="box_2_rightside" type="fixed">
        <parent link="box_2" />
        <child link="box_2_rightside" />
        <axis xyz="0 0 1" />
        <origin rpy="0 0 0" xyz="0.318      0.017      0.013" />
    </joint>
    <link name="box_2_bottom" />
    <joint name="box_2_bottom_joint" type="fixed">
        <parent link="box_2" />
        <child link="box_2_bottom" />
        <origin rpy="0 0 0" xyz="0.017 0.017 0.013" />
    </joint>
    <link name="box_2_center_bottom" />
    <joint name="box_2_center_bottom_joint" type="fixed">
        <parent link="box_2" />
        <child link="box_2_center_bottom" />
        <origin rpy="0 0 0" xyz="0.1675 0.1675 0.013" />
    </joint>
    <link name="box_2_lower_left_top" />
    <joint name="box_2_lower_left_top_joint" type="fixed">
        <parent link="box_2" />
        <child link="box_2_lower_left_top" />
        <origin rpy="0 0 0" xyz="0 0 0.195" />
    </joint>
    <link name="box_2_lower_right_top" />
    <joint name="box_2_lower_right_top_joint" type="fixed">
        <parent link="box_2" />
        <child link="box_2_lower_right_top" />
        <origin rpy="0 0 0" xyz="0.335 0 0.195" />
    </joint>
    <link name="box_2_upper_left_top" />
    <joint name="box_2_upper_left_top_joint" type="fixed">
        <parent link="box_2" />
        <child link="box_2_upper_left_top" />
        <origin rpy="0 0 0" xyz="0 0.335 0.195" />
    </joint>
    <link name="box_2_upper_right_top" />
    <joint name="box_2_upper_right_top_joint" type="fixed">
        <parent link="box_2" />
        <child link="box_2_upper_right_top" />
        <origin rpy="0 0 0" xyz="0.335 0.335 0.195" />
    </joint>
    <link name="box_2_center_top" />
    <joint name="box_2_center_top_joint" type="fixed">
        <parent link="box_2" />
        <child link="box_2_center_top" />
        <origin rpy="0 0 0" xyz="0.1675 0.1675 0.225" />
    </joint>
    <!-- This creates a box with the origin in the bottom corner, fixed to the world link. -->
    <link name="arm_table_leg0">
        <visual>
            <origin rpy="0 0 0" xyz="0.025 0.025 0.33999999999999997" />
            <geometry>
                <box size="0.05 0.05 0.6799999999999999" />
            </geometry>
            <material name="Grey">
                <color rgba="0.7 0.7 0.7 1" />
            </material>
        </visual>
        <collision>
            <origin rpy="0 0 0" xyz="0.025 0.025 0.33999999999999997" />
            <geometry>
                <box size="0.05 0.05 0.6799999999999999" />
            </geometry>
        </collision>
        <!-- This is required for Gazebo. -->
        <inertial>
            <mass value="1.0" />
            <!-- <origin xyz="${size_x/2} ${size_y} ${size_z/2}" rpy="0 0 0"/> -->
            <inertia ixx="0.0" ixy="0.0" ixz="0.0" iyy="0.0" iyz="0.0" izz="0.0" />
            <origin xyz="0 0 0" rpy="0 0 0" />
        </inertial>
    </link>
    <gazebo reference="arm_table_leg0">
        <material>Gazebo/Grey</material>
    </gazebo>
    <joint name="arm_table_leg0" type="fixed">
        <parent link="ground" />
        <child link="arm_table_leg0" />
        <origin rpy="0 0 0" xyz="4.0 -2.0 0" />
    </joint>
    <!-- This creates a box with the origin in the bottom corner, fixed to the world link. -->
    <link name="arm_table_leg1">
        <visual>
            <origin rpy="0 0 0" xyz="0.025 0.025 0.33999999999999997" />
            <geometry>
                <box size="0.05 0.05 0.6799999999999999" />
            </geometry>
            <material name="Grey">
                <color rgba="0.7 0.7 0.7 1" />
            </material>
        </visual>
        <collision>
            <origin rpy="0 0 0" xyz="0.025 0.025 0.33999999999999997" />
            <geometry>
                <box size="0.05 0.05 0.6799999999999999" />
            </geometry>
        </collision>
        <!-- This is required for Gazebo. -->
        <inertial>
            <mass value="1.0" />
            <!-- <origin xyz="${size_x/2} ${size_y} ${size_z/2}" rpy="0 0 0"/> -->
            <inertia ixx="0.0" ixy="0.0" ixz="0.0" iyy="0.0" iyz="0.0" izz="0.0" />
            <origin xyz="0 0 0" rpy="0 0 0" />
        </inertial>
    </link>
    <gazebo reference="arm_table_leg1">
        <material>Gazebo/Grey</material>
    </gazebo>
    <joint name="arm_table_leg1" type="fixed">
        <parent link="arm_table_leg0" />
        <child link="arm_table_leg1" />
        <origin rpy="0 0 0" xyz="0.95 0 0" />
    </joint>
    <!-- This creates a box with the origin in the bottom corner, fixed to the world link. -->
    <link name="arm_table_leg2">
        <visual>
            <origin rpy="0 0 0" xyz="0.025 0.025 0.33999999999999997" />
            <geometry>
                <box size="0.05 0.05 0.6799999999999999" />
            </geometry>
            <material name="Grey">
                <color rgba="0.7 0.7 0.7 1" />
            </material>
        </visual>
        <collision>
            <origin rpy="0 0 0" xyz="0.025 0.025 0.33999999999999997" />
            <geometry>
                <box size="0.05 0.05 0.6799999999999999" />
            </geometry>
        </collision>
        <!-- This is required for Gazebo. -->
        <inertial>
            <mass value="1.0" />
            <!-- <origin xyz="${size_x/2} ${size_y} ${size_z/2}" rpy="0 0 0"/> -->
            <inertia ixx="0.0" ixy="0.0" ixz="0.0" iyy="0.0" iyz="0.0" izz="0.0" />
            <origin xyz="0 0 0" rpy="0 0 0" />
        </inertial>
    </link>
    <gazebo reference="arm_table_leg2">
        <material>Gazebo/Grey</material>
    </gazebo>
    <joint name="arm_table_leg2" type="fixed">
        <parent link="arm_table_leg0" />
        <child link="arm_table_leg2" />
        <origin rpy="0 0 0" xyz="0 0.6499999999999999 0" />
    </joint>
    <!-- This creates a box with the origin in the bottom corner, fixed to the world link. -->
    <link name="arm_table_leg3">
        <visual>
            <origin rpy="0 0 0" xyz="0.025 0.025 0.33999999999999997" />
            <geometry>
                <box size="0.05 0.05 0.6799999999999999" />
            </geometry>
            <material name="Grey">
                <color rgba="0.7 0.7 0.7 1" />
            </material>
        </visual>
        <collision>
            <origin rpy="0 0 0" xyz="0.025 0.025 0.33999999999999997" />
            <geometry>
                <box size="0.05 0.05 0.6799999999999999" />
            </geometry>
        </collision>
        <!-- This is required for Gazebo. -->
        <inertial>
            <mass value="1.0" />
            <!-- <origin xyz="${size_x/2} ${size_y} ${size_z/2}" rpy="0 0 0"/> -->
            <inertia ixx="0.0" ixy="0.0" ixz="0.0" iyy="0.0" iyz="0.0" izz="0.0" />
            <origin xyz="0 0 0" rpy="0 0 0" />
        </inertial>
    </link>
    <gazebo reference="arm_table_leg3">
        <material>Gazebo/Grey</material>
    </gazebo>
    <joint name="arm_table_leg3" type="fixed">
        <parent link="arm_table_leg0" />
        <child link="arm_table_leg3" />
        <origin rpy="0 0 0" xyz="0.95      0.6499999999999999      0" />
    </joint>
    <!-- This creates a box with the origin in the bottom corner, fixed to the world link. -->
    <link name="arm_table_top">
        <visual>
            <origin rpy="0 0 0" xyz="0.5 0.35 0.01" />
            <geometry>
                <box size="1.0 0.7 0.02" />
            </geometry>
            <material name="Grey">
                <color rgba="0.7 0.7 0.7 1" />
            </material>
        </visual>
        <collision>
            <origin rpy="0 0 0" xyz="0.5 0.35 0.01" />
            <geometry>
                <box size="1.0 0.7 0.02" />
            </geometry>
        </collision>
        <!-- This is required for Gazebo. -->
        <inertial>
            <mass value="1.0" />
            <!-- <origin xyz="${size_x/2} ${size_y} ${size_z/2}" rpy="0 0 0"/> -->
            <inertia ixx="0.0" ixy="0.0" ixz="0.0" iyy="0.0" iyz="0.0" izz="0.0" />
            <origin xyz="0 0 0" rpy="0 0 0" />
        </inertial>
    </link>
    <gazebo reference="arm_table_top">
        <material>Gazebo/Grey</material>
    </gazebo>
    <joint name="arm_table_top" type="fixed">
        <parent link="arm_table_leg0" />
        <child link="arm_table_top" />
        <origin rpy="0 0 0" xyz="0 0 0.6799999999999999" />
    </joint>
    <joint name="arm_table_top_origin" type="fixed">
        <parent link="arm_table_top" />
        <child link="arm_table_top_origin" />
        <origin rpy="0 0 0" xyz="0 0 0.02" />
    </joint>
    <link name="arm_table_top_origin" />
    <joint name="arm_table_top_origin_center" type="fixed">
        <parent link="arm_table_top_origin" />
        <child link="arm_table_top_origin_center" />
        <origin rpy="0 0 0" xyz="0.5 0.35 0" />
    </joint>
    <link name="arm_table_top_origin_center" />
    <!--
    Main xacro macro definition of the "Gazebo robot" model.

    This wraps the model of the real robot and adds all elements and parameters
    required by Gazebo.

    It also adds the gazebo_ros_control plugin.

    NOTE: this is NOT a URDF. It cannot directly be loaded by consumers
    expecting a flattened '.urdf' file. See the top-level '.xacro' for that
    (but note: that .xacro must still be processed by the xacro command).

    For use in '.launch' files: use one of the 'load_urX.launch' convenience
    launch files.

    NOTE: this Gazebo model makes use of the same set of parameter files as the
    main xacro macro (in ur_description). It is therefor possible to use the
    kinematic calibration exported from a REAL UR robot. Please refer to the
    ur_macro.xacro in ur_description for more information about this.

    Main author of the migration to yaml configs: Ludovic Delval.

    Contributors to previous versions (in no particular order):

     - Felix Messmer
     - Kelsey Hawkins
     - Shaun Edwards
     - Alexander Bubeck
     - Nadia Hammoudeh Garcia
     - G. vd. Hoorn
     - Dave Niewinski
     - Andy Zelenak
     - Miguel Prada
     - Mathias Luedtke
     - Hans-Joachim Krauch
     - Felix Exner
  -->
    <!--
    Base UR robot series xacro macro.

    NOTE: this is NOT a URDF. It cannot directly be loaded by consumers
    expecting a flattened '.urdf' file. See the top-level '.xacro' for that
    (but note: that .xacro must still be processed by the xacro command).

    For use in '.launch' files: use one of the 'load_urX.launch' convenience
    launch files.

    This file models the base kinematic chain of a UR robot, which then gets
    parameterised by various configuration files to convert it into a UR3(e),
    UR5(e), UR10(e), UR16e, UR20 or UR30.

    NOTE: the default kinematic parameters (ie: link lengths, frame locations,
    offets, etc) do not correspond to any particular robot. They are defaults
    only. There WILL be non-zero offsets between the Forward Kinematics results
    in TF (ie: robot_state_publisher) and the values reported by the Teach
    Pendant.

    For accurate (and robot-specific) transforms, the 'kinematics_parameters_file'
    parameter MUST point to a .yaml file containing the appropriate values for
    the targetted robot.

    If using the UniversalRobots/Universal_Robots_ROS_Driver, follow the steps
    described in the readme of that repository to extract the kinematic
    calibration from the controller and generate the required .yaml file.

    Main author of the migration to yaml configs: Ludovic Delval.

    Contributors to previous versions (in no particular order):

     - Felix Messmer
     - Kelsey Hawkins
     - Wim Meeussen
     - Shaun Edwards
     - Nadia Hammoudeh Garcia
     - Dave Hershberger
     - G. vd. Hoorn
     - Philip Long
     - Dave Coleman
     - Miguel Prada
     - Mathias Luedtke
     - Marcel Schnirring
     - Felix von Drigalski
     - Felix Exner
     - Jimmy Da Silva
     - Ajit Krisshna N L
     - Muhammad Asif Rana
  -->
    <!--
    NOTE: the macro defined in this file is NOT part of the public API of this
          package. Users CANNOT rely on this file being available, or stored in
          this location. Nor can they rely on the existence of the macro.
  -->
    <transmission name="arm_shoulder_pan_trans">
        <type>transmission_interface/SimpleTransmission</type>
        <joint name="arm_shoulder_pan_joint">
            <hardwareInterface>hardware_interface/PositionJointInterface</hardwareInterface>
        </joint>
        <actuator name="arm_shoulder_pan_motor">
            <mechanicalReduction>1</mechanicalReduction>
            <hardwareInterface>hardware_interface/EffortJointInterface</hardwareInterface>
        </actuator>
    </transmission>
    <transmission name="arm_shoulder_lift_trans">
        <type>transmission_interface/SimpleTransmission</type>
        <joint name="arm_shoulder_lift_joint">
            <hardwareInterface>hardware_interface/PositionJointInterface</hardwareInterface>
        </joint>
        <actuator name="arm_shoulder_lift_motor">
            <mechanicalReduction>1</mechanicalReduction>
            <hardwareInterface>hardware_interface/EffortJointInterface</hardwareInterface>
        </actuator>
    </transmission>
    <transmission name="arm_elbow_trans">
        <type>transmission_interface/SimpleTransmission</type>
        <joint name="arm_elbow_joint">
            <hardwareInterface>hardware_interface/PositionJointInterface</hardwareInterface>
        </joint>
        <actuator name="arm_elbow_motor">
            <mechanicalReduction>1</mechanicalReduction>
            <hardwareInterface>hardware_interface/EffortJointInterface</hardwareInterface>
        </actuator>
    </transmission>
    <transmission name="arm_wrist_1_trans">
        <type>transmission_interface/SimpleTransmission</type>
        <joint name="arm_wrist_1_joint">
            <hardwareInterface>hardware_interface/PositionJointInterface</hardwareInterface>
        </joint>
        <actuator name="arm_wrist_1_motor">
            <mechanicalReduction>1</mechanicalReduction>
            <hardwareInterface>hardware_interface/EffortJointInterface</hardwareInterface>
        </actuator>
    </transmission>
    <transmission name="arm_wrist_2_trans">
        <type>transmission_interface/SimpleTransmission</type>
        <joint name="arm_wrist_2_joint">
            <hardwareInterface>hardware_interface/PositionJointInterface</hardwareInterface>
        </joint>
        <actuator name="arm_wrist_2_motor">
            <mechanicalReduction>1</mechanicalReduction>
            <hardwareInterface>hardware_interface/EffortJointInterface</hardwareInterface>
        </actuator>
    </transmission>
    <transmission name="arm_wrist_3_trans">
        <type>transmission_interface/SimpleTransmission</type>
        <joint name="arm_wrist_3_joint">
            <hardwareInterface>hardware_interface/PositionJointInterface</hardwareInterface>
        </joint>
        <actuator name="arm_wrist_3_motor">
            <mechanicalReduction>1</mechanicalReduction>
            <hardwareInterface>hardware_interface/EffortJointInterface</hardwareInterface>
        </actuator>
    </transmission>
    <!-- links: main serial chain -->
    <link name="arm_base_link" />
    <link name="arm_base_link_inertia">
        <visual>
            <origin rpy="0 0 3.141592653589793" xyz="0 0 0" />
            <geometry>
                <mesh filename="package://ur_description/meshes/ur5e/visual/base.dae" />
            </geometry>
            <material name="LightGrey">
                <color rgba="0.7 0.7 0.7 1.0" />
            </material>
        </visual>
        <collision>
            <origin rpy="0 0 3.141592653589793" xyz="0 0 0" />
            <geometry>
                <mesh filename="package://ur_description/meshes/ur5e/collision/base.stl" />
            </geometry>
        </collision>
        <inertial>
            <mass value="4.0" />
            <origin rpy="0 0 0" xyz="0 0 0" />
            <inertia ixx="0.00443333156" ixy="0.0" ixz="0.0" iyy="0.00443333156" iyz="0.0" izz="0.0072" />
        </inertial>
    </link>
    <link name="arm_shoulder_link">
        <visual>
            <origin rpy="0 0 3.141592653589793" xyz="0 0 0" />
            <geometry>
                <mesh filename="package://ur_description/meshes/ur5e/visual/shoulder.dae" />
            </geometry>
            <material name="LightGrey">
                <color rgba="0.7 0.7 0.7 1.0" />
            </material>
        </visual>
        <collision>
            <origin rpy="0 0 3.141592653589793" xyz="0 0 0" />
            <geometry>
                <mesh filename="package://ur_description/meshes/ur5e/collision/shoulder.stl" />
            </geometry>
        </collision>
        <inertial>
            <mass value="3.7" />
            <origin rpy="0 0 0" xyz="0 0 0" />
            <inertia ixx="0.010267495893" ixy="0.0" ixz="0.0" iyy="0.010267495893" iyz="0.0" izz="0.00666" />
        </inertial>
    </link>
    <link name="arm_upper_arm_link">
        <visual>
            <origin rpy="1.5707963267948966 0 -1.5707963267948966" xyz="0 0 0.138" />
            <geometry>
                <mesh filename="package://ur_description/meshes/ur5e/visual/upperarm.dae" />
            </geometry>
            <material name="LightGrey">
                <color rgba="0.7 0.7 0.7 1.0" />
            </material>
        </visual>
        <collision>
            <origin rpy="1.5707963267948966 0 -1.5707963267948966" xyz="0 0 0.138" />
            <geometry>
                <mesh filename="package://ur_description/meshes/ur5e/collision/upperarm.stl" />
            </geometry>
        </collision>
        <inertial>
            <mass value="8.393" />
            <origin rpy="0 1.5707963267948966 0" xyz="-0.2125 0.0 0.138" />
            <inertia ixx="0.1338857818623325" ixy="0.0" ixz="0.0" iyy="0.1338857818623325" iyz="0.0" izz="0.0151074" />
        </inertial>
    </link>
    <link name="arm_forearm_link">
        <visual>
            <origin rpy="1.5707963267948966 0 -1.5707963267948966" xyz="0 0 0.007" />
            <geometry>
                <mesh filename="package://ur_description/meshes/ur5e/visual/forearm.dae" />
            </geometry>
            <material name="LightGrey">
                <color rgba="0.7 0.7 0.7 1.0" />
            </material>
        </visual>
        <collision>
            <origin rpy="1.5707963267948966 0 -1.5707963267948966" xyz="0 0 0.007" />
            <geometry>
                <mesh filename="package://ur_description/meshes/ur5e/collision/forearm.stl" />
            </geometry>
        </collision>
        <inertial>
            <mass value="2.275" />
            <origin rpy="0 1.5707963267948966 0" xyz="-0.1961 0.0 0.007" />
            <inertia ixx="0.031209355099586295" ixy="0.0" ixz="0.0" iyy="0.031209355099586295" iyz="0.0" izz="0.004095" />
        </inertial>
    </link>
    <link name="arm_wrist_1_link">
        <visual>
            <!-- TODO: Move this to a parameter -->
            <origin rpy="1.5707963267948966 0 0" xyz="0 0 -0.127" />
            <geometry>
                <mesh filename="package://ur_description/meshes/ur5e/visual/wrist1.dae" />
            </geometry>
            <material name="LightGrey">
                <color rgba="0.7 0.7 0.7 1.0" />
            </material>
        </visual>
        <collision>
            <origin rpy="1.5707963267948966 0 0" xyz="0 0 -0.127" />
            <geometry>
                <mesh filename="package://ur_description/meshes/ur5e/collision/wrist1.stl" />
            </geometry>
        </collision>
        <inertial>
            <mass value="1.219" />
            <origin rpy="0 0 0" xyz="0 0 0" />
            <inertia ixx="0.0025598989760400002" ixy="0.0" ixz="0.0" iyy="0.0025598989760400002" iyz="0.0" izz="0.0021942" />
        </inertial>
    </link>
    <link name="arm_wrist_2_link">
        <visual>
            <origin rpy="0 0 0" xyz="0 0 -0.0997" />
            <geometry>
                <mesh filename="package://ur_description/meshes/ur5e/visual/wrist2.dae" />
            </geometry>
            <material name="LightGrey">
                <color rgba="0.7 0.7 0.7 1.0" />
            </material>
        </visual>
        <collision>
            <origin rpy="0 0 0" xyz="0 0 -0.0997" />
            <geometry>
                <mesh filename="package://ur_description/meshes/ur5e/collision/wrist2.stl" />
            </geometry>
        </collision>
        <inertial>
            <mass value="1.219" />
            <origin rpy="0 0 0" xyz="0 0 0" />
            <inertia ixx="0.0025598989760400002" ixy="0.0" ixz="0.0" iyy="0.0025598989760400002" iyz="0.0" izz="0.0021942" />
        </inertial>
    </link>
    <link name="arm_wrist_3_link">
        <visual>
            <origin rpy="1.5707963267948966 0 0" xyz="0 0 -0.0989" />
            <geometry>
                <mesh filename="package://ur_description/meshes/ur5e/visual/wrist3.dae" />
            </geometry>
            <material name="LightGrey">
                <color rgba="0.7 0.7 0.7 1.0" />
            </material>
        </visual>
        <collision>
            <origin rpy="1.5707963267948966 0 0" xyz="0 0 -0.0989" />
            <geometry>
                <mesh filename="package://ur_description/meshes/ur5e/collision/wrist3.stl" />
            </geometry>
        </collision>
        <inertial>
            <mass value="0.1879" />
            <origin rpy="0 0 0" xyz="0.0 0.0 -0.0229" />
            <inertia ixx="9.890410052167731e-05" ixy="0.0" ixz="0.0" iyy="9.890410052167731e-05" iyz="0.0" izz="0.0001321171875" />
        </inertial>
    </link>
    <!-- joints: main serial chain -->
    <joint name="arm_base_link-base_link_inertia" type="fixed">
        <parent link="arm_base_link" />
        <child link="arm_base_link_inertia" />
        <!-- 'base_link' is REP-103 aligned (so X+ forward), while the internal
           frames of the robot/controller have X+ pointing backwards.
           Use the joint between 'base_link' and 'base_link_inertia' (a dummy
           link/frame) to introduce the necessary rotation over Z (of pi rad).
      -->
        <origin rpy="0 0 3.141592653589793" xyz="0 0 0" />
    </joint>
    <joint name="arm_shoulder_pan_joint" type="revolute">
        <parent link="arm_base_link_inertia" />
        <child link="arm_shoulder_link" />
        <origin rpy="0 0 0" xyz="0 0 0.1625" />
        <axis xyz="0 0 1" />
        <limit effort="150.0" lower="-6.283185307179586" upper="6.283185307179586" velocity="3.141592653589793" />
        <dynamics damping="0" friction="0" />
    </joint>
    <joint name="arm_shoulder_lift_joint" type="revolute">
        <parent link="arm_shoulder_link" />
        <child link="arm_upper_arm_link" />
        <origin rpy="1.570796327 0 0" xyz="0 0 0" />
        <axis xyz="0 0 1" />
        <limit effort="150.0" lower="-6.283185307179586" upper="6.283185307179586" velocity="3.141592653589793" />
        <dynamics damping="0" friction="0" />
    </joint>
    <joint name="arm_elbow_joint" type="revolute">
        <parent link="arm_upper_arm_link" />
        <child link="arm_forearm_link" />
        <origin rpy="0 0 0" xyz="-0.425 0 0" />
        <axis xyz="0 0 1" />
        <limit effort="150.0" lower="-3.141592653589793" upper="3.141592653589793" velocity="3.141592653589793" />
        <dynamics damping="0" friction="0" />
    </joint>
    <joint name="arm_wrist_1_joint" type="revolute">
        <parent link="arm_forearm_link" />
        <child link="arm_wrist_1_link" />
        <origin rpy="0 0 0" xyz="-0.3922 0 0.1333" />
        <axis xyz="0 0 1" />
        <limit effort="28.0" lower="-6.283185307179586" upper="6.283185307179586" velocity="3.141592653589793" />
        <dynamics damping="0" friction="0" />
    </joint>
    <joint name="arm_wrist_2_joint" type="revolute">
        <parent link="arm_wrist_1_link" />
        <child link="arm_wrist_2_link" />
        <origin rpy="1.570796327 0 0" xyz="0 -0.0997 -2.044881182297852e-11" />
        <axis xyz="0 0 1" />
        <limit effort="28.0" lower="-6.283185307179586" upper="6.283185307179586" velocity="3.141592653589793" />
        <dynamics damping="0" friction="0" />
    </joint>
    <joint name="arm_wrist_3_joint" type="revolute">
        <parent link="arm_wrist_2_link" />
        <child link="arm_wrist_3_link" />
        <origin rpy="1.570796326589793 3.141592653589793 3.141592653589793" xyz="0 0.0996 -2.042830148012698e-11" />
        <axis xyz="0 0 1" />
        <limit effort="28.0" lower="-6.283185307179586" upper="6.283185307179586" velocity="3.141592653589793" />
        <dynamics damping="0" friction="0" />
    </joint>
    <!-- ROS-Industrial 'base' frame: base_link to UR 'Base' Coordinates transform -->
    <link name="arm_base" />
    <joint name="arm_base_link-base_fixed_joint" type="fixed">
        <!-- Note the rotation over Z of pi radians: as base_link is REP-103
           aligned (ie: has X+ forward, Y+ left and Z+ up), this is needed
           to correctly align 'base' with the 'Base' coordinate system of
           the UR controller.
      -->
        <origin rpy="0 0 3.141592653589793" xyz="0 0 0" />
        <parent link="arm_base_link" />
        <child link="arm_base" />
    </joint>
    <!-- ROS-Industrial 'flange' frame: attachment point for EEF models -->
    <link name="arm_flange" />
    <joint name="arm_wrist_3-flange" type="fixed">
        <parent link="arm_wrist_3_link" />
        <child link="arm_flange" />
        <origin rpy="0 -1.5707963267948966 -1.5707963267948966" xyz="0 0 0" />
    </joint>
    <!-- ROS-Industrial 'tool0' frame: all-zeros tool frame -->
    <link name="arm_tool0" />
    <joint name="arm_flange-tool0" type="fixed">
        <!-- default toolframe: X+ left, Y+ up, Z+ front -->
        <origin rpy="1.5707963267948966 0 1.5707963267948966" xyz="0 0 0" />
        <parent link="arm_flange" />
        <child link="arm_tool0" />
    </joint>
    <!-- Configure self collision properties per link -->
    <gazebo reference="arm_shoulder_link">
        <selfCollide>true</selfCollide>
    </gazebo>
    <gazebo reference="arm_upper_arm_link">
        <selfCollide>true</selfCollide>
    </gazebo>
    <gazebo reference="arm_forearm_link">
        <selfCollide>true</selfCollide>
    </gazebo>
    <gazebo reference="arm_wrist_1_link">
        <selfCollide>true</selfCollide>
    </gazebo>
    <gazebo reference="arm_wrist_3_link">
        <selfCollide>true</selfCollide>
    </gazebo>
    <gazebo reference="arm_wrist_2_link">
        <selfCollide>true</selfCollide>
    </gazebo>
    <gazebo reference="arm_ee_link">
        <selfCollide>true</selfCollide>
    </gazebo>
    <!--
      Inject Gazebo ROS Control plugin, which allows us to use ros_control
      controllers to control the virtual robot hw.
    -->
    <gazebo>
        <plugin filename="libgazebo_ros_control.so" name="ros_control">
            <!--robotNamespace>/</robotNamespace-->
            <!--robotSimType>gazebo_ros_control/DefaultRobotHWSim</robotSimType-->
        </plugin>
    </gazebo>
    <joint name="arm_base_joint" type="fixed">
        <origin rpy="0 0 0" xyz="0 0 0" />
        <parent link="arm_table_top_origin_center" />
        <child link="arm_base_link" />
    </joint>
    <link name="gripper_coupling_base_link">
        <inertial>
            <origin rpy="0 0 0" xyz="8.625E-08 -4.6583E-06 0.03145" />
            <mass value="0.22652" />
            <inertia ixx="0.00020005" ixy="-4.2442E-10" ixz="-2.9069E-10" iyy="0.00017832" iyz="-3.4402E-08" izz="0.00013478" />
        </inertial>
        <visual>
            <origin rpy="1.5707963267948966 0 1.5707963267948966" xyz="0.00555 0 0" />
            <geometry>
                <mesh filename="package://aist_robotiq/meshes/visual/robotiq_arg2f_coupling.stl" scale="0.001 0.001 0.001" />
            </geometry>
            <material name="">
                <color rgba="0.1 0.1 0.1 1" />
            </material>
        </visual>
        <collision>
            <origin rpy="0 1.5707963267948966 0" xyz="0.00555 0 0" />
            <geometry>
                <cylinder length="0.0111" radius="0.0375" />
            </geometry>
        </collision>
    </link>
    <gazebo reference="gripper_coupling_base_link">
        <material>Gazebo/Black</material>
    </gazebo>
    <joint name="gripper_coupling_base_joint" type="fixed">
        <parent link="arm_flange" />
        <child link="gripper_coupling_base_link" />
        <origin rpy="3.141592653589793 0 0" xyz="0 0 0" />
    </joint>
    <link name="gripper_coupling_flange_link" />
    <joint name="gripper_coupling_flange_joint" type="fixed">
        <parent link="gripper_coupling_base_link" />
        <child link="gripper_coupling_flange_link" />
        <origin rpy="0 0 0" xyz="0.0111 0 0" />
    </joint>
    <joint name="gripper_base_joint" type="fixed">
        <parent link="gripper_coupling_flange_link" />
        <child link="gripper_base_link" />
        <origin rpy="0 0 0" xyz="0 0 0" />
    </joint>
    <link name="gripper_base_link" />
    <joint name="gripper_robotiq_arg2f_base_joint" type="fixed">
        <parent link="gripper_base_link" />
        <child link="gripper_robotiq_arg2f_base_link" />
        <origin rpy="3.141592653589793 -1.5707963267948966 0" xyz="0 0 0" />
    </joint>
    <joint name="gripper_tip_link_joint" type="fixed">
        <parent link="gripper_base_link" />
        <child link="gripper_tip_link" />
        <origin rpy="0.0 -1.5707963267948966 0.0" xyz="0.1628 0.0 0.0" />
    </joint>
    <link name="gripper_tip_link" />
    <link name="gripper_robotiq_arg2f_base_link">
        <inertial>
            <origin rpy="0 0 0" xyz="8.625E-08 -4.6583E-06 0.03145" />
            <mass value="0.22652" />
            <inertia ixx="0.00020005" ixy="-4.2442E-10" ixz="-2.9069E-10" iyy="0.00017832" iyz="-3.4402E-08" izz="0.00013478" />
        </inertial>
        <visual>
            <origin rpy="0 0 0" xyz="0 0 0" />
            <geometry>
                <mesh filename="package://aist_robotiq/meshes/visual/robotiq_arg2f_base_link.stl" />
            </geometry>
            <material name="">
                <color rgba="0.1 0.1 0.1 1" />
            </material>
        </visual>
        <collision>
            <origin rpy="0 0 0" xyz="0 0 0" />
            <geometry>
                <mesh filename="package://aist_robotiq/meshes/collision/robotiq_arg2f_base_link.stl" />
            </geometry>
        </collision>
    </link>
    <gazebo reference="gripper_robotiq_arg2f_base_link">
        <material>Gazebo/Black</material>
    </gazebo>
    <link name="gripper_left_outer_knuckle">
        <inertial>
            <origin rpy="0 0 0" xyz="-0.000200000000003065        0.0199435877845359        0.0292245259211331" />
            <mass value="0.00853198276973456" />
            <inertia ixx="2.89328108496468E-06" ixy="-1.57935047237397E-19" ixz="-1.93980378593255E-19" iyy="1.86719750325683E-06" iyz="-1.21858577871576E-06" izz="1.21905238907251E-06" />
        </inertial>
        <visual>
            <origin rpy="0 0 0" xyz="0 0 0" />
            <geometry>
                <mesh filename="package://aist_robotiq/meshes/visual/robotiq_arg2f_85_outer_knuckle.dae" scale="0.001 0.001 0.001" />
            </geometry>
            <material name="">
                <color rgba="0.792156862745098          0.819607843137255          0.933333333333333 1" />
            </material>
        </visual>
        <collision>
            <origin rpy="0 0 0" xyz="0 0 0" />
            <geometry>
                <mesh filename="package://aist_robotiq/meshes/collision/robotiq_arg2f_85_outer_knuckle.dae" scale="0.001 0.001 0.001" />
            </geometry>
        </collision>
    </link>
    <link name="gripper_left_outer_finger">
        <inertial>
            <origin rpy="0 0 0" xyz="0.00030115855001899        0.0373907951953854        -0.0208027427000385" />
            <mass value="0.022614240507152" />
            <inertia ixx="1.52518312458174E-05" ixy="9.76583423954399E-10" ixz="-5.43838577022588E-10" iyy="6.17694243867776E-06" iyz="6.78636130740228E-06" izz="1.16494917907219E-05" />
        </inertial>
        <visual>
            <origin rpy="0 0 0" xyz="0 0 0" />
            <geometry>
                <mesh filename="package://aist_robotiq/meshes/visual/robotiq_arg2f_85_outer_finger.dae" scale="0.001 0.001 0.001" />
            </geometry>
            <material name="">
                <color rgba="0.1 0.1 0.1 1" />
            </material>
        </visual>
        <collision>
            <origin rpy="0 0 0" xyz="0 0 0" />
            <geometry>
                <mesh filename="package://aist_robotiq/meshes/collision/robotiq_arg2f_85_outer_finger.dae" scale="0.001 0.001 0.001" />
            </geometry>
        </collision>
    </link>
    <link name="gripper_left_inner_finger">
        <inertial>
            <origin rpy="0 0 0" xyz="0.000299999999999317        0.0160078233491243        -0.0136945669206257" />
            <mass value="0.0104003125914103" />
            <inertia ixx="2.71909453810972E-06" ixy="1.35402465472579E-21" ixz="-7.1817349065269E-22" iyy="7.69100314106116E-07" iyz="6.74715432769696E-07" izz="2.30315190420171E-06" />
        </inertial>
        <visual>
            <origin rpy="0 0 0" xyz="0 0 0" />
            <geometry>
                <mesh filename="package://aist_robotiq/meshes/visual/robotiq_arg2f_85_inner_finger.dae" scale="0.001 0.001 0.001" />
            </geometry>
            <material name="">
                <color rgba="0.1 0.1 0.1 1" />
            </material>
        </visual>
        <collision>
            <origin rpy="0 0 0" xyz="0 0 0" />
            <geometry>
                <mesh filename="package://aist_robotiq/meshes/collision/robotiq_arg2f_85_inner_finger.dae" scale="0.001 0.001 0.001" />
            </geometry>
        </collision>
    </link>
    <link name="gripper_left_inner_finger_pad">
        <visual>
            <origin rpy="0 0 0" xyz="0 0 0" />
            <geometry>
                <box size="0.022 0.00635 0.0375" />
            </geometry>
            <material name="">
                <color rgba="0.9 0.9 0.9 1" />
            </material>
        </visual>
        <collision>
            <origin rpy="0 0 0" xyz="0 0 0" />
            <geometry>
                <box size="0.022 0.00635 0.0375" />
            </geometry>
            <material name="">
                <color rgba="0.9 0.0 0.0 1" />
            </material>
        </collision>
        <inertial>
            <mass value="0.1" />
            <origin xyz="0 0 0" rpy="0 0 0" />
            <inertia ixx="0.03" iyy="0.03" izz="0.03" ixy="0.0" ixz="0.0" iyz="0.0" />
        </inertial>
    </link>
    <link name="gripper_left_inner_knuckle">
        <inertial>
            <origin rpy="0 0 0" xyz="0.000123011831763771        0.0507850843201817        0.00103968640075166" />
            <mass value="0.0271177346495152" />
            <inertia ixx="2.61910379223783E-05" ixy="-2.43616858946494E-07" ixz="-6.37789906117123E-09" iyy="2.8270243746167E-06" iyz="-5.37200748039765E-07" izz="2.83695868220296E-05" />
        </inertial>
        <visual>
            <origin rpy="0 0 0" xyz="0 0 0" />
            <geometry>
                <mesh filename="package://aist_robotiq/meshes/visual/robotiq_arg2f_85_inner_knuckle.dae" scale="0.001 0.001 0.001" />
            </geometry>
            <material name="">
                <color rgba="0.1 0.1 0.1 1" />
            </material>
        </visual>
        <collision>
            <origin rpy="0 0 0" xyz="0 0 0" />
            <geometry>
                <mesh filename="package://aist_robotiq/meshes/collision/robotiq_arg2f_85_inner_knuckle.dae" scale="0.001 0.001 0.001" />
            </geometry>
        </collision>
    </link>
    <link name="gripper_right_outer_knuckle">
        <inertial>
            <origin rpy="0 0 0" xyz="-0.000200000000003065        0.0199435877845359        0.0292245259211331" />
            <mass value="0.00853198276973456" />
            <inertia ixx="2.89328108496468E-06" ixy="-1.57935047237397E-19" ixz="-1.93980378593255E-19" iyy="1.86719750325683E-06" iyz="-1.21858577871576E-06" izz="1.21905238907251E-06" />
        </inertial>
        <visual>
            <origin rpy="0 0 0" xyz="0 0 0" />
            <geometry>
                <mesh filename="package://aist_robotiq/meshes/visual/robotiq_arg2f_85_outer_knuckle.dae" scale="0.001 0.001 0.001" />
            </geometry>
            <material name="">
                <color rgba="0.792156862745098          0.819607843137255          0.933333333333333 1" />
            </material>
        </visual>
        <collision>
            <origin rpy="0 0 0" xyz="0 0 0" />
            <geometry>
                <mesh filename="package://aist_robotiq/meshes/collision/robotiq_arg2f_85_outer_knuckle.dae" scale="0.001 0.001 0.001" />
            </geometry>
        </collision>
    </link>
    <link name="gripper_right_outer_finger">
        <inertial>
            <origin rpy="0 0 0" xyz="0.00030115855001899        0.0373907951953854        -0.0208027427000385" />
            <mass value="0.022614240507152" />
            <inertia ixx="1.52518312458174E-05" ixy="9.76583423954399E-10" ixz="-5.43838577022588E-10" iyy="6.17694243867776E-06" iyz="6.78636130740228E-06" izz="1.16494917907219E-05" />
        </inertial>
        <visual>
            <origin rpy="0 0 0" xyz="0 0 0" />
            <geometry>
                <mesh filename="package://aist_robotiq/meshes/visual/robotiq_arg2f_85_outer_finger.dae" scale="0.001 0.001 0.001" />
            </geometry>
            <material name="">
                <color rgba="0.1 0.1 0.1 1" />
            </material>
        </visual>
        <collision>
            <origin rpy="0 0 0" xyz="0 0 0" />
            <geometry>
                <mesh filename="package://aist_robotiq/meshes/collision/robotiq_arg2f_85_outer_finger.dae" scale="0.001 0.001 0.001" />
            </geometry>
        </collision>
    </link>
    <link name="gripper_right_inner_finger">
        <inertial>
            <origin rpy="0 0 0" xyz="0.000299999999999317        0.0160078233491243        -0.0136945669206257" />
            <mass value="0.0104003125914103" />
            <inertia ixx="2.71909453810972E-06" ixy="1.35402465472579E-21" ixz="-7.1817349065269E-22" iyy="7.69100314106116E-07" iyz="6.74715432769696E-07" izz="2.30315190420171E-06" />
        </inertial>
        <visual>
            <origin rpy="0 0 0" xyz="0 0 0" />
            <geometry>
                <mesh filename="package://aist_robotiq/meshes/visual/robotiq_arg2f_85_inner_finger.dae" scale="0.001 0.001 0.001" />
            </geometry>
            <material name="">
                <color rgba="0.1 0.1 0.1 1" />
            </material>
        </visual>
        <collision>
            <origin rpy="0 0 0" xyz="0 0 0" />
            <geometry>
                <mesh filename="package://aist_robotiq/meshes/collision/robotiq_arg2f_85_inner_finger.dae" scale="0.001 0.001 0.001" />
            </geometry>
        </collision>
    </link>
    <link name="gripper_right_inner_finger_pad">
        <visual>
            <origin rpy="0 0 0" xyz="0 0 0" />
            <geometry>
                <box size="0.022 0.00635 0.0375" />
            </geometry>
            <material name="">
                <color rgba="0.9 0.9 0.9 1" />
            </material>
        </visual>
        <collision>
            <origin rpy="0 0 0" xyz="0 0 0" />
            <geometry>
                <box size="0.022 0.00635 0.0375" />
            </geometry>
            <material name="">
                <color rgba="0.9 0.0 0.0 1" />
            </material>
        </collision>
        <inertial>
            <mass value="0.1" />
            <origin xyz="0 0 0" rpy="0 0 0" />
            <inertia ixx="0.03" iyy="0.03" izz="0.03" ixy="0.0" ixz="0.0" iyz="0.0" />
        </inertial>
    </link>
    <link name="gripper_right_inner_knuckle">
        <inertial>
            <origin rpy="0 0 0" xyz="0.000123011831763771        0.0507850843201817        0.00103968640075166" />
            <mass value="0.0271177346495152" />
            <inertia ixx="2.61910379223783E-05" ixy="-2.43616858946494E-07" ixz="-6.37789906117123E-09" iyy="2.8270243746167E-06" iyz="-5.37200748039765E-07" izz="2.83695868220296E-05" />
        </inertial>
        <visual>
            <origin rpy="0 0 0" xyz="0 0 0" />
            <geometry>
                <mesh filename="package://aist_robotiq/meshes/visual/robotiq_arg2f_85_inner_knuckle.dae" scale="0.001 0.001 0.001" />
            </geometry>
            <material name="">
                <color rgba="0.1 0.1 0.1 1" />
            </material>
        </visual>
        <collision>
            <origin rpy="0 0 0" xyz="0 0 0" />
            <geometry>
                <mesh filename="package://aist_robotiq/meshes/collision/robotiq_arg2f_85_inner_knuckle.dae" scale="0.001 0.001 0.001" />
            </geometry>
        </collision>
    </link>
    <joint name="gripper_finger_joint" type="revolute">
        <origin rpy="0 0 3.141592653589793" xyz="0 -0.0306011 0.054904" />
        <parent link="gripper_robotiq_arg2f_base_link" />
        <child link="gripper_left_outer_knuckle" />
        <axis xyz="1 0 0" />
        <limit effort="1000" lower="0" upper="0.81" velocity="2.0" />
    </joint>
    <joint name="gripper_left_outer_finger_joint" type="fixed">
        <origin rpy="0 0 0" xyz="0 0.0315 -0.0041" />
        <parent link="gripper_left_outer_knuckle" />
        <child link="gripper_left_outer_finger" />
        <axis xyz="1 0 0" />
    </joint>
    <joint name="gripper_left_inner_knuckle_joint" type="revolute">
        <!-- <origin xyz="0 ${reflect * -0.0127} 0.06142" rpy="${pi / 2 + .725} 0 ${(reflect - 1) * pi / 2}"/> -->
        <origin rpy="0 0 3.141592653589793" xyz="0 -0.0127 0.06142" />
        <parent link="gripper_robotiq_arg2f_base_link" />
        <child link="gripper_left_inner_knuckle" />
        <axis xyz="1 0 0" />
        <limit effort="1000" lower="-0.8757" upper="0.8757" velocity="2.0" />
        <mimic joint="gripper_finger_joint" multiplier="1" offset="0" />
    </joint>
    <joint name="gripper_left_inner_finger_joint" type="revolute">
        <origin rpy="0 0 0" xyz="0 0.0061 0.0471" />
        <parent link="gripper_left_outer_finger" />
        <child link="gripper_left_inner_finger" />
        <axis xyz="1 0 0" />
        <limit effort="1000" lower="-0.8757" upper="0.8757" velocity="2.0" />
        <mimic joint="gripper_finger_joint" multiplier="-1" offset="0" />
    </joint>
    <joint name="gripper_left_inner_finger_pad_joint" type="fixed">
        <origin rpy="0 0 0" xyz="0 -0.0220203446692936 0.03242" />
        <parent link="gripper_left_inner_finger" />
        <child link="gripper_left_inner_finger_pad" />
        <axis xyz="0 0 1" />
    </joint>
    <joint name="gripper_right_outer_knuckle_joint" type="revolute">
        <origin rpy="0 0 0" xyz="0 0.0306011 0.054904" />
        <parent link="gripper_robotiq_arg2f_base_link" />
        <child link="gripper_right_outer_knuckle" />
        <axis xyz="1 0 0" />
        <limit effort="1000" lower="-0.81" upper="0.81" velocity="2.0" />
        <mimic joint="gripper_finger_joint" multiplier="1" offset="0" />
    </joint>
    <joint name="gripper_right_outer_finger_joint" type="fixed">
        <origin rpy="0 0 0" xyz="0 0.0315 -0.0041" />
        <parent link="gripper_right_outer_knuckle" />
        <child link="gripper_right_outer_finger" />
        <axis xyz="1 0 0" />
    </joint>
    <joint name="gripper_right_inner_knuckle_joint" type="revolute">
        <!-- <origin xyz="0 ${reflect * -0.0127} 0.06142" rpy="${pi / 2 + .725} 0 ${(reflect - 1) * pi / 2}"/> -->
        <origin rpy="0 0 0.0" xyz="0 0.0127 0.06142" />
        <parent link="gripper_robotiq_arg2f_base_link" />
        <child link="gripper_right_inner_knuckle" />
        <axis xyz="1 0 0" />
        <limit effort="1000" lower="-0.8757" upper="0.8757" velocity="2.0" />
        <mimic joint="gripper_finger_joint" multiplier="1" offset="0" />
    </joint>
    <joint name="gripper_right_inner_finger_joint" type="revolute">
        <origin rpy="0 0 0" xyz="0 0.0061 0.0471" />
        <parent link="gripper_right_outer_finger" />
        <child link="gripper_right_inner_finger" />
        <axis xyz="1 0 0" />
        <limit effort="1000" lower="-0.8757" upper="0.8757" velocity="2.0" />
        <mimic joint="gripper_finger_joint" multiplier="-1" offset="0" />
    </joint>
    <joint name="gripper_right_inner_finger_pad_joint" type="fixed">
        <origin rpy="0 0 0" xyz="0 -0.0220203446692936 0.03242" />
        <parent link="gripper_right_inner_finger" />
        <child link="gripper_right_inner_finger_pad" />
        <axis xyz="0 0 1" />
    </joint>
    <transmission name="gripper_finger_joint_trans">
        <type>transmission_interface/SimpleTransmission</type>
        <joint name="gripper_finger_joint">
            <hardwareInterface>hardware_interface/PositionJointInterface</hardwareInterface>
        </joint>
        <actuator name="gripper_finger_joint_motor">
            <mechanicalReduction>1</mechanicalReduction>
            <hardwareInterface>hardware_interface/EffortJointInterface</hardwareInterface>
        </actuator>
    </transmission>
    <!-- Mimic joints -->
    <gazebo>
        <plugin filename="libgazebo_mimic_joint_plugin.so" name="gripper_mimic_right_outer_knuckle_joint">
            <joint>gripper_finger_joint</joint>
            <mimicJoint>gripper_right_outer_knuckle_joint</mimicJoint>
        </plugin>
        <plugin filename="libgazebo_mimic_joint_plugin.so" name="gripper_mimic_left_inner_knuckle_joint">
            <joint>gripper_finger_joint</joint>
            <mimicJoint>gripper_left_inner_knuckle_joint</mimicJoint>
        </plugin>
        <plugin filename="libgazebo_mimic_joint_plugin.so" name="gripper_mimic_right_inner_knuckle_joint">
            <joint>gripper_finger_joint</joint>
            <mimicJoint>gripper_right_inner_knuckle_joint</mimicJoint>
        </plugin>
        <plugin filename="libgazebo_mimic_joint_plugin.so" name="gripper_mimic_left_inner_finger_joint">
            <joint>gripper_finger_joint</joint>
            <mimicJoint>gripper_left_inner_finger_joint</mimicJoint>
            <multiplier>-1.0</multiplier>
            <offset>0.0</offset>
        </plugin>
        <plugin filename="libgazebo_mimic_joint_plugin.so" name="gripper_mimic_right_inner_finger_joint">
            <joint>gripper_finger_joint</joint>
            <mimicJoint>gripper_right_inner_finger_joint</mimicJoint>
            <multiplier>-1.0</multiplier>
            <offset>0.0</offset>
        </plugin>
    </gazebo>
    <transmission name="trans_gripper_left_inner_knuckle_joint">
        <type>transmission_interface/SimpleTransmission</type>
        <joint name="gripper_left_inner_knuckle_joint">
            <hardwareInterface>hardware_interface/EffortJointInterface</hardwareInterface>
        </joint>
        <actuator name="gripper_left_inner_knuckle_joint_motor">
            <hardwareInterface>hardware_interface/EffortJointInterface</hardwareInterface>
            <mechanicalReduction>1</mechanicalReduction>
        </actuator>
    </transmission>
    <transmission name="trans_gripper_left_inner_finger_joint">
        <type>transmission_interface/SimpleTransmission</type>
        <joint name="gripper_left_inner_finger_joint">
            <hardwareInterface>hardware_interface/EffortJointInterface</hardwareInterface>
        </joint>
        <actuator name="gripper_left_inner_finger_joint_motor">
            <hardwareInterface>hardware_interface/EffortJointInterface</hardwareInterface>
            <mechanicalReduction>1</mechanicalReduction>
        </actuator>
    </transmission>
    <transmission name="trans_gripper_right_outer_knuckle_joint">
        <type>transmission_interface/SimpleTransmission</type>
        <joint name="gripper_right_outer_knuckle_joint">
            <hardwareInterface>hardware_interface/EffortJointInterface</hardwareInterface>
        </joint>
        <actuator name="gripper_right_outer_knuckle_joint_motor">
            <hardwareInterface>hardware_interface/EffortJointInterface</hardwareInterface>
            <mechanicalReduction>1</mechanicalReduction>
        </actuator>
    </transmission>
    <transmission name="trans_gripper_right_inner_knuckle_joint">
        <type>transmission_interface/SimpleTransmission</type>
        <joint name="gripper_right_inner_knuckle_joint">
            <hardwareInterface>hardware_interface/EffortJointInterface</hardwareInterface>
        </joint>
        <actuator name="gripper_right_inner_knuckle_joint_motor">
            <hardwareInterface>hardware_interface/EffortJointInterface</hardwareInterface>
            <mechanicalReduction>1</mechanicalReduction>
        </actuator>
    </transmission>
    <transmission name="trans_gripper_right_inner_finger_joint">
        <type>transmission_interface/SimpleTransmission</type>
        <joint name="gripper_right_inner_finger_joint">
            <hardwareInterface>hardware_interface/EffortJointInterface</hardwareInterface>
        </joint>
        <actuator name="gripper_right_inner_finger_joint_motor">
            <hardwareInterface>hardware_interface/EffortJointInterface</hardwareInterface>
            <mechanicalReduction>1</mechanicalReduction>
        </actuator>
    </transmission>
</robot>
